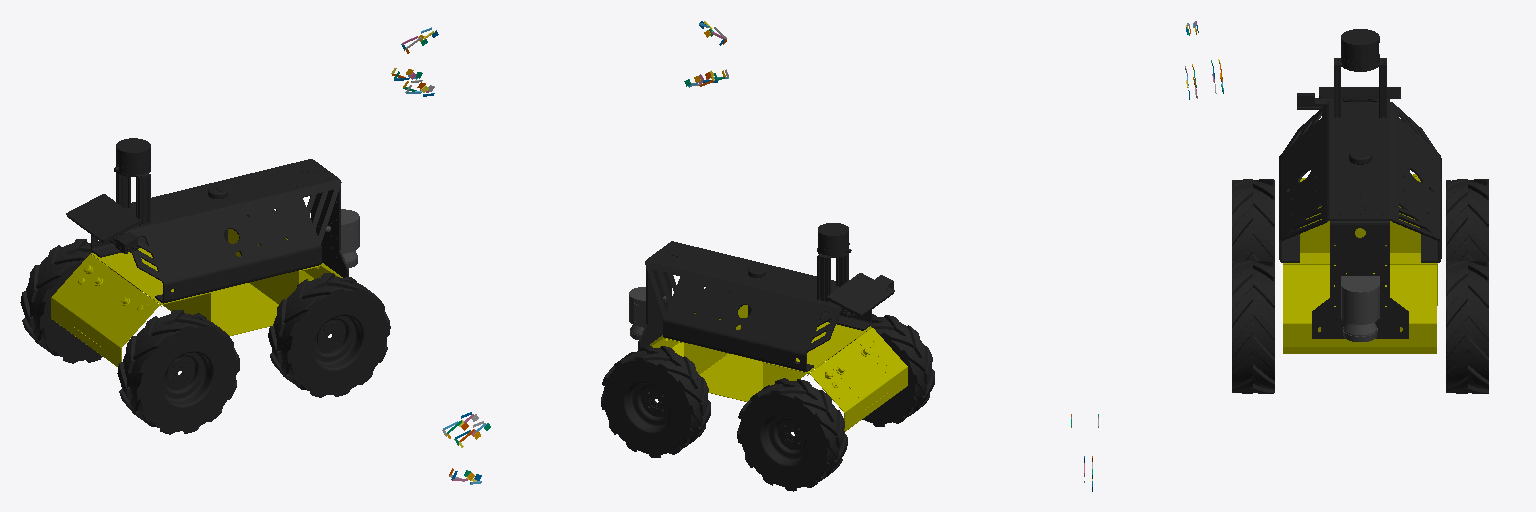
--- Render facts (derived) ---
3 views of the same robot in one strip: view 1: azimuth 30°, elevation 25°; view 2: azimuth 150°, elevation 25°; view 3: azimuth 270°, elevation 25° (orthographic).
Model dual_arm_husky with 128 links and 127 joints (92 revolute, 4 continuous, 31 fixed), rooted at base_link, posed every joint at zero.
Visible links, largest first — view 1: dual_arm_bulkhead_link, top_chassis_link, rear_right_wheel_link, front_right_wheel_link, rear_left_wheel_link, base_laser; view 2: dual_arm_bulkhead_link, top_chassis_link, rear_left_wheel_link, front_left_wheel_link, rear_right_wheel_link, base_laser; view 3: dual_arm_bulkhead_link, top_chassis_link, front_left_wheel_link, front_right_wheel_link, rear_left_wheel_link, rear_right_wheel_link, base_laser.
Link boxes in pixels (box(x1,y1,x2,y2)): dual_arm_bulkhead_link: box(66, 138, 348, 303); top_chassis_link: box(51, 229, 342, 366); rear_right_wheel_link: box(117, 310, 239, 434); front_right_wheel_link: box(268, 273, 390, 397); rear_left_wheel_link: box(20, 239, 140, 363); base_laser: box(325, 209, 359, 267); dual_arm_bulkhead_link: box(638, 223, 894, 371); top_chassis_link: box(650, 305, 907, 431); rear_left_wheel_link: box(737, 378, 847, 491); front_left_wheel_link: box(601, 345, 710, 457); rear_right_wheel_link: box(828, 314, 934, 426); base_laser: box(629, 287, 666, 339); dual_arm_bulkhead_link: box(1279, 29, 1441, 338); top_chassis_link: box(1283, 174, 1437, 353); front_left_wheel_link: box(1446, 260, 1488, 393); front_right_wheel_link: box(1232, 260, 1274, 393); rear_left_wheel_link: box(1446, 179, 1488, 261); rear_right_wheel_link: box(1232, 179, 1274, 261); base_laser: box(1341, 276, 1379, 341).
Size in the robot's own frame: 0.9608 by 1.11 by 1.37 metres.
Meshes: 21 distinct files referenced, 7 mesh visuals loaded (4 Collada DAE); not drawn: 48 (reference not matched to a file when rendering).

robot.urdf — dual_arm_husky:
<?xml version="1.0" ?>
<!-- =================================================================================== -->
<!-- |    This document was autogenerated by xacro from description.xacro              | -->
<!-- |    EDITING THIS FILE BY HAND IS NOT RECOMMENDED                                 | -->
<!-- =================================================================================== -->
<!--
Software License Agreement (BSD)

\file      description.urdf.xacro
\authors   Paul Bovbel <[email redacted]>, Devon Ash <[email redacted]>
\copyright Copyright (c) 2015, Clearpath Robotics, Inc., All rights reserved.

Redistribution and use in source and binary forms, with or without modification, are permitted provided that
the following conditions are met:
 * Redistributions of source code must retain the above copyright notice, this list of conditions and the
   following disclaimer.
 * Redistributions in binary form must reproduce the above copyright notice, this list of conditions and the
   following disclaimer in the documentation and/or other materials provided with the distribution.
 * Neither the name of Clearpath Robotics nor the names of its contributors may be used to endorse or promote
   products derived from this software without specific prior written permission.

THIS SOFTWARE IS PROVIDED BY THE COPYRIGHT HOLDERS AND CONTRIBUTORS "AS IS" AND ANY EXPRESS OR IMPLIED WAR-
RANTIES, INCLUDING, BUT NOT LIMITED TO, THE IMPLIED WARRANTIES OF MERCHANTABILITY AND FITNESS FOR A PARTICULAR
PURPOSE ARE DISCLAIMED. IN NO EVENT SHALL THE COPYRIGHT HOLDER OR CONTRIBUTORS BE LIABLE FOR ANY DIRECT, IN-
DIRECT, INCIDENTAL, SPECIAL, EXEMPLARY, OR CONSEQUENTIAL DAMAGES (INCLUDING, BUT NOT LIMITED TO, PROCUREMENT
OF SUBSTITUTE GOODS OR SERVICES; LOSS OF USE, DATA, OR PROFITS; OR BUSINESS INTERRUPTION) HOWEVER CAUSED AND
ON ANY THEORY OF LIABILITY, WHETHER IN CONTRACT, STRICT LIABILITY, OR TORT (INCLUDING NEGLIGENCE OR OTHERWISE)
ARISING IN ANY WAY OUT OF THE USE OF THIS SOFTWARE, EVEN IF ADVISED OF THE POSSIBILITY OF SUCH DAMAGE.
-->
<robot name="dual_arm_husky" xmlns:xacro="http://www.ros.org/wiki/xacro">
  <!-- Included URDF/XACRO Files -->
  <!-- Inertia parameters -->
  <!-- This mass might be incorrect -->
  <!-- Kinematic model -->
  <!-- Properties from urcontrol.conf -->
  <!--
    DH for UR5:
    a = [0.00000, -0.42500, -0.39225,  0.00000,  0.00000,  0.0000]
    d = [0.089159,  0.00000,  0.00000,  0.10915,  0.09465,  0.0823]
    alpha = [ 1.570796327, 0, 0, 1.570796327, -1.570796327, 0 ]
    q_home_offset = [0, -1.570796327, 0, -1.570796327, 0, 0]
    joint_direction = [-1, -1, 1, 1, 1, 1]
    mass = [3.7000, 8.3930, 2.2750, 1.2190, 1.2190, 0.1879]
    center_of_mass = [ [0, -0.02561, 0.00193], [0.2125, 0, 0.11336], [0.11993, 0.0, 0.0265], [0, -0.0018, 0.01634], [0, 0.0018,0.01634], [0, 0, -0.001159] ]
  -->
  <!-- Arbitrary offsets for shoulder/elbow joints -->
  <!-- measured from model -->
  <!-- measured from model -->
  <!-- link lengths used in model -->
  <!--property name="shoulder_height" value="0.089159" /-->
  <!--property name="shoulder_offset" value="0.13585" /-->
  <!-- shoulder_offset - elbow_offset + wrist_1_length = 0.10915 -->
  <!--property name="upper_arm_length" value="0.42500" /-->
  <!--property name="elbow_offset" value="0.1197" /-->
  <!-- CAD measured -->
  <!--property name="forearm_length" value="0.39225" /-->
  <!--property name="wrist_1_length" value="0.093" /-->
  <!-- CAD measured -->
  <!--property name="wrist_2_length" value="0.09465" /-->
  <!-- In CAD this distance is 0.930, but in the spec it is 0.09465 -->
  <!--property name="wrist_3_length" value="0.0823" /-->
  <!-- manually measured -->
  <!-- manually measured -->
  <!-- manually measured -->
  <!-- manually measured -->
  <!-- manually measured -->
  <!-- Base Size -->
  <!-- Wheel Mounting Positions -->
  <!-- Wheel Properties -->
  <!-- Base link is the center of the robot's bottom plate -->
  <link name="base_link">
    <visual>
      <origin rpy="0 0 0" xyz="0 0 0"/>
      <geometry>
        <mesh filename="package://dual_arm_husky_description/meshes/base_link.dae"/>
      </geometry>
      <material name="black"><color rgba="0 0 0 1" /></material>
    </visual>
    <collision>
      <origin rpy="0 0 0" xyz="0 0 0.061875"/>
      <geometry>
        <box size="0.9874 0.5709 0.12375"/>
      </geometry>
    </collision>
    <collision>
      <origin rpy="0 0 0" xyz="0 0 0.185625"/>
      <geometry>
        <box size="0.78992 0.5709 0.12375"/>
      </geometry>
    </collision>
  </link>
  <!-- Base footprint is on the ground under the robot -->
  <link name="base_footprint"/>
  <joint name="base_footprint_joint" type="fixed">
    <origin rpy="0 0 0" xyz="0 0 -0.14493"/>
    <parent link="base_link"/>
    <child link="base_footprint"/>
  </joint>
  <!-- Interial link stores the robot's inertial information -->
  <link name="inertial_link">
    <inertial>
      <mass value="33.455"/>
      <origin xyz="-0.08748 -0.00085 0.09947"/>
      <inertia ixx="0.6022" ixy="-0.02364" ixz="-0.1197" iyy="1.7386" iyz="-0.001544" izz="2.0296"/>
    </inertial>
  </link>
  <joint name="inertial_joint" type="fixed">
    <origin rpy="0 0 0" xyz="0 0 0"/>
    <parent link="base_link"/>
    <child link="inertial_link"/>
  </joint>
  <!-- IMU Link is the standard mounting position for the UM6 IMU.-->
  <!-- Can be modified with environment variables in /etc/ros/setup.bash -->
  <link name="imu_link"/>
  <joint name="imu_joint" type="fixed">
    <origin rpy="-1.5708 0 0" xyz="0.19 0 0.149"/>
    <parent link="base_link"/>
    <child link="imu_link"/>
  </joint>
  <gazebo reference="imu_link">
    </gazebo>
  <!-- Husky wheel macros -->
  <link name="front_left_wheel_link">
    <inertial>
      <mass value="2.637"/>
      <origin xyz="0 0 0"/>
      <inertia ixx="0.02467" ixy="0" ixz="0" iyy="0.02467" iyz="0" izz="0.04411"/>
    </inertial>
    <visual>
      <origin rpy="0 0 0" xyz="0 0 0"/>
      <geometry>
        <mesh filename="package://dual_arm_husky_description/meshes/wheel.dae"/>
      </geometry>
      <material name="Gazebo/DarkGrey"><color rgba=".175 .175 .175 1.0" /></material>
    </visual>
    <collision>
      <origin rpy="1.570795 0 0" xyz="0 0 0"/>
      <geometry>
        <cylinder length="0.1143" radius="0.17775"/>
      </geometry>
    </collision>
  </link>
  <gazebo reference="front_left_wheel_link">
    <mu1 value="1.0"/>
    <mu2 value="1.0"/>
    <kp value="10000000.0"/>
    <kd value="1.0"/>
    <fdir1 value="1 0 0"/>
  </gazebo>
  <joint name="front_left_wheel" type="continuous">
    <parent link="base_link"/>
    <child link="front_left_wheel_link"/>
    <origin rpy="0 0 0" xyz="0.256 0.2854 0.03282"/>
    <axis rpy="0 0 0" xyz="0 1 0"/>
  </joint>
  <transmission name="front_left_wheel_trans" type="SimpleTransmission">
    <type>transmission_interface/SimpleTransmission</type>
    <actuator name="front_left_wheel_motor">
      <mechanicalReduction>1</mechanicalReduction>
    </actuator>
    <joint name="front_left_wheel">
      <hardwareInterface>VelocityJointInterface</hardwareInterface>
    </joint>
  </transmission>
  <link name="front_right_wheel_link">
    <inertial>
      <mass value="2.637"/>
      <origin xyz="0 0 0"/>
      <inertia ixx="0.02467" ixy="0" ixz="0" iyy="0.02467" iyz="0" izz="0.04411"/>
    </inertial>
    <visual>
      <origin rpy="0 0 0" xyz="0 0 0"/>
      <geometry>
        <mesh filename="package://dual_arm_husky_description/meshes/wheel.dae"/>
      </geometry>
      <material name="Gazebo/DarkGrey"><color rgba=".175 .175 .175 1.0" /></material>
    </visual>
    <collision>
      <origin rpy="1.570795 0 0" xyz="0 0 0"/>
      <geometry>
        <cylinder length="0.1143" radius="0.17775"/>
      </geometry>
    </collision>
  </link>
  <gazebo reference="front_right_wheel_link">
    <mu1 value="1.0"/>
    <mu2 value="1.0"/>
    <kp value="10000000.0"/>
    <kd value="1.0"/>
    <fdir1 value="1 0 0"/>
  </gazebo>
  <joint name="front_right_wheel" type="continuous">
    <parent link="base_link"/>
    <child link="front_right_wheel_link"/>
    <origin rpy="0 0 0" xyz="0.256 -0.2854 0.03282"/>
    <axis rpy="0 0 0" xyz="0 1 0"/>
  </joint>
  <transmission name="front_right_wheel_trans" type="SimpleTransmission">
    <type>transmission_interface/SimpleTransmission</type>
    <actuator name="front_right_wheel_motor">
      <mechanicalReduction>1</mechanicalReduction>
    </actuator>
    <joint name="front_right_wheel">
      <hardwareInterface>VelocityJointInterface</hardwareInterface>
    </joint>
  </transmission>
  <link name="rear_left_wheel_link">
    <inertial>
      <mass value="2.637"/>
      <origin xyz="0 0 0"/>
      <inertia ixx="0.02467" ixy="0" ixz="0" iyy="0.02467" iyz="0" izz="0.04411"/>
    </inertial>
    <visual>
      <origin rpy="0 0 0" xyz="0 0 0"/>
      <geometry>
        <mesh filename="package://dual_arm_husky_description/meshes/wheel.dae"/>
      </geometry>
      <material name="Gazebo/DarkGrey"><color rgba=".175 .175 .175 1.0" /></material>
    </visual>
    <collision>
      <origin rpy="1.570795 0 0" xyz="0 0 0"/>
      <geometry>
        <cylinder length="0.1143" radius="0.17775"/>
      </geometry>
    </collision>
  </link>
  <gazebo reference="rear_left_wheel_link">
    <mu1 value="1.0"/>
    <mu2 value="1.0"/>
    <kp value="10000000.0"/>
    <kd value="1.0"/>
    <fdir1 value="1 0 0"/>
  </gazebo>
  <joint name="rear_left_wheel" type="continuous">
    <parent link="base_link"/>
    <child link="rear_left_wheel_link"/>
    <origin rpy="0 0 0" xyz="-0.256 0.2854 0.03282"/>
    <axis rpy="0 0 0" xyz="0 1 0"/>
  </joint>
  <transmission name="rear_left_wheel_trans" type="SimpleTransmission">
    <type>transmission_interface/SimpleTransmission</type>
    <actuator name="rear_left_wheel_motor">
      <mechanicalReduction>1</mechanicalReduction>
    </actuator>
    <joint name="rear_left_wheel">
      <hardwareInterface>VelocityJointInterface</hardwareInterface>
    </joint>
  </transmission>
  <link name="rear_right_wheel_link">
    <inertial>
      <mass value="2.637"/>
      <origin xyz="0 0 0"/>
      <inertia ixx="0.02467" ixy="0" ixz="0" iyy="0.02467" iyz="0" izz="0.04411"/>
    </inertial>
    <visual>
      <origin rpy="0 0 0" xyz="0 0 0"/>
      <geometry>
        <mesh filename="package://dual_arm_husky_description/meshes/wheel.dae"/>
      </geometry>
      <material name="Gazebo/DarkGrey"><color rgba=".175 .175 .175 1.0" /></material>
    </visual>
    <collision>
      <origin rpy="1.570795 0 0" xyz="0 0 0"/>
      <geometry>
        <cylinder length="0.1143" radius="0.17775"/>
      </geometry>
    </collision>
  </link>
  <gazebo reference="rear_right_wheel_link">
    <mu1 value="1.0"/>
    <mu2 value="1.0"/>
    <kp value="10000000.0"/>
    <kd value="1.0"/>
    <fdir1 value="1 0 0"/>
  </gazebo>
  <joint name="rear_right_wheel" type="continuous">
    <parent link="base_link"/>
    <child link="rear_right_wheel_link"/>
    <origin rpy="0 0 0" xyz="-0.256 -0.2854 0.03282"/>
    <axis rpy="0 0 0" xyz="0 1 0"/>
  </joint>
  <transmission name="rear_right_wheel_trans" type="SimpleTransmission">
    <type>transmission_interface/SimpleTransmission</type>
    <actuator name="rear_right_wheel_motor">
      <mechanicalReduction>1</mechanicalReduction>
    </actuator>
    <joint name="rear_right_wheel">
      <hardwareInterface>VelocityJointInterface</hardwareInterface>
    </joint>
  </transmission>
  <!-- Spawn Husky chassis -->
  <link name="top_chassis_link">
    <visual>
      <origin rpy="0 0 0" xyz="0 0 0"/>
      <geometry>
        <mesh filename="package://dual_arm_husky_description/meshes/top_chassis.dae"/>
      </geometry>
      <material name="Gazebo/DarkYellow"><color rgba=".7 .7 0 1" /></material>
    </visual>
  </link>
  <!-- Attach chassis to the robot -->
  <joint name="top_chassis_joint" type="fixed">
    <parent link="base_link"/>
    <child link="top_chassis_link"/>
  </joint>
  <!-- Spawn front bumper link -->
  <link name="front_bumper_link">
    <visual>
      <geometry>
        <mesh filename="package://dual_arm_husky_description/meshes/bumper.dae"/>
      </geometry>
      <material name="black"><color rgba="0 0 0 1" /></material>
    </visual>
  </link>
  <!-- Attach front bumper -->
  <joint name="front_bumper" type="fixed">
    <origin rpy="0 0 0" xyz="0.48 0 0.091"/>
    <parent link="base_link"/>
    <child link="front_bumper_link"/>
  </joint>
  <!-- Spawn rear bumper link -->
  <link name="rear_bumper_link">
    <visual>
      <geometry>
        <mesh filename="package://dual_arm_husky_description/meshes/bumper.dae"/>
      </geometry>
      <material name="black"><color rgba="0 0 0 1" /></material>
    </visual>
  </link>
  <!-- Attach rear bumper -->
  <joint name="rear_bumper" type="fixed">
    <origin rpy="0 0 3.14159" xyz="-0.48 0 0.091"/>
    <parent link="base_link"/>
    <child link="rear_bumper_link"/>
  </joint>
  <!-- Spawn the bulkhead -->
  <link name="dual_arm_bulkhead_link">
    <visual>
      <origin rpy="0 0 0" xyz="0 0 0"/>
      <geometry>
        <mesh filename="package://dual_arm_husky_description/meshes/dual_arm_bulkhead.dae"/>
      </geometry>
      <material name="Gazebo/DarkGrey"><color rgba=".175 .175 .175 1.0" /></material>
    </visual>
    <collision>
      <origin rpy="0 0 0" xyz="0 0 0"/>
      <geometry>
        <mesh filename="package://dual_arm_husky_description/meshes/dual_arm_bulkhead_simple_mesh.dae"/>
      </geometry>
    </collision>
  </link>
  <!-- Attach bulkhead -->
  <joint name="dual_arm_bulkhead_joint" type="fixed">
    <parent link="base_link"/>
    <child link="dual_arm_bulkhead_link"/>
    <origin rpy="0 0 0" xyz="0 0 0.225"/>
  </joint>
  <link name="husky_ptu_pan_link">
    <inertial>
      <mass value="0.65"/>
      <origin rpy="0 0 0" xyz="0 0 0"/>
      <inertia ixx="0.0001" ixy="0" ixz="0" iyy="0.0001" iyz="0" izz="0.0001"/>
    </inertial>
    <visual>
      <material name="ptu_body_color">
        <color rgba="0.3 0.3 0.3 1.0"/>
      </material>
      <origin rpy="3.14 0 0" xyz="-0.0295 0.011 0"/>
      <geometry>
        <mesh filename="package://dual_arm_husky_description/meshes/flir-ptu-simple.stl"/>
      </geometry>
    </visual>
    <collision>
      <geometry>
        <box size="0.045 0.065 0.044"/>
      </geometry>
      <origin xyz="0 0.011 0"/>
    </collision>
    <collision>
      <geometry>
        <box size="0.046 0.044 0.044"/>
      </geometry>
      <origin xyz="-0.045 0.0215 0"/>
    </collision>
    <collision>
      <geometry>
        <cylinder length="0.015" radius="0.005"/>
      </geometry>
      <origin rpy="0 1.57 0" xyz="-0.074 0.021 0"/>
    </collision>
  </link>
  <gazebo reference="husky_ptu_pan_link">
    <material>Gazebo/DarkGrey</material>
  </gazebo>
  <link name="husky_ptu_tilt_link">
    <inertial>
      <mass value="0.65"/>
      <origin rpy="0 0 0" xyz="0 0 0"/>
      <inertia ixx="0.0001" ixy="0" ixz="0" iyy="0.0001" iyz="0" izz="0.0001"/>
    </inertial>
    <visual>
      <material name="ptu_body_color">
        <color rgba="0.3 0.3 0.3 1.0"/>
      </material>
      <origin rpy="3.14 0 0" xyz="-0.0295 0.011 0"/>
      <geometry>
        <mesh filename="package://dual_arm_husky_description/meshes/flir-ptu-simple.stl"/>
      </geometry>
    </visual>
    <collision>
      <geometry>
        <box size="0.045 0.065 0.044"/>
      </geometry>
      <origin xyz="0 0.011 0"/>
    </collision>
    <collision>
      <geometry>
        <box size="0.046 0.044 0.044"/>
      </geometry>
      <origin xyz="-0.045 0.0215 0"/>
    </collision>
    <collision>
      <geometry>
        <cylinder length="0.015" radius="0.005"/>
      </geometry>
      <origin rpy="0 1.57 0" xyz="-0.074 0.021 0"/>
    </collision>
  </link>
  <gazebo reference="husky_ptu_tilt_link">
    <material>Gazebo/DarkGrey</material>
  </gazebo>
  <link name="husky_ptu_base_link">
    <inertial>
      <mass value="2e-06"/>
      <inertia ixx="1.1e-09" ixy="0" ixz="0" iyy="1.1e-09" iyz="0" izz="1.1e-09"/>
    </inertial>
  </link>
  <link name="husky_ptu_tilted_link"/>
  <link name="husky_ptu_mount_link">
    <inertial>
      <mass value="2e-06"/>
      <inertia ixx="1.1e-09" ixy="0" ixz="0" iyy="1.1e-09" iyz="0" izz="1.1e-09"/>
    </inertial>
  </link>
  <!-- There's an offset between the origin of the pan joint and the origin of 
         the overall device, which is between the mounting screws on its base. -->
  <joint name="husky_ptu_base" type="fixed">
    <parent link="husky_ptu_base_link"/>
    <child link="husky_ptu_pan_link"/>
    <origin xyz="0 -0.011 0.022"/>
  </joint>
  <!-- The pan joint -->
  <joint name="husky_ptu_pan" type="revolute">
    <parent link="husky_ptu_pan_link"/>
    <origin rpy="-1.5708 0 0" xyz="0 0 0.066"/>
    <child link="husky_ptu_tilt_link"/>
    <axis rpy="3.14159 0 0" xyz="0 -1 0"/>
    <limit effort="30" lower="-2.775" upper="2.775" velocity="1.0"/>
  </joint>
  <transmission name="husky_ptu_pan_trans">
    <type>transmission_interface/SimpleTransmission</type>
    <joint name="husky_ptu_pan">
      <hardwareInterface>PositionJointInterface</hardwareInterface>
    </joint>
    <actuator name="husky_ptu_pan_motor">
      <mechanicalReduction>1</mechanicalReduction>
    </actuator>
  </transmission>
  <!-- The tilt joint -->
  <joint name="husky_ptu_tilt" type="revolute">
    <parent link="husky_ptu_tilt_link"/>
    <origin rpy="-1.5708 0 0" xyz="0 0 0"/>
    <child link="husky_ptu_tilted_link"/>
    <axis xyz="0 1 0"/>
    <limit effort="30" lower="-0.82" upper="0.52" velocity="1.0"/>
  </joint>
  <transmission name="husky_ptu_tilt_trans">
    <type>transmission_interface/SimpleTransmission</type>
    <joint name="husky_ptu_tilt">
      <hardwareInterface>PositionJointInterface</hardwareInterface>
    </joint>
    <actuator name="husky_ptu_tilt_motor">
      <mechanicalReduction>1</mechanicalReduction>
    </actuator>
  </transmission>
  <!-- Fixed joint to provide a convenient attachment point for accessories. -->
  <joint name="husky_ptu_mount" type="fixed">
    <parent link="husky_ptu_tilted_link"/>
    <child link="husky_ptu_mount_link"/>
    <origin rpy="3.1416 0 0" xyz="0 0 -0.03912"/>
  </joint>
  <!-- Connect PTU to Husky bulkhead -->
  <joint name="husky_ptu_joint" type="fixed">
    <origin rpy="0 0 0" xyz="0.345 0.010414 0.19876"/>
    <parent link="dual_arm_bulkhead_link"/>
    <child link="husky_ptu_base_link"/>
  </joint>
  <link name="l_ur5_arm_base_link">
    <visual>
      <geometry>
        <mesh filename="package://ur_description/meshes/ur5/visual/base.dae"/>
      </geometry>
      <material name="LightGrey">
        <color rgba="0.7 0.7 0.7 1.0"/>
      </material>
    </visual>
    <collision>
      <geometry>
        <mesh filename="package://ur_description/meshes/ur5/collision/base.stl"/>
      </geometry>
    </collision>
    <inertial>
      <mass value="4.0"/>
      <origin rpy="0 0 0" xyz="0.0 0.0 0.0"/>
      <inertia ixx="0.00443333156" ixy="0.0" ixz="0.0" iyy="0.00443333156" iyz="0.0" izz="0.0072"/>
    </inertial>
  </link>
  <joint name="l_ur5_arm_shoulder_pan_joint" type="revolute">
    <parent link="l_ur5_arm_base_link"/>
    <child link="l_ur5_arm_shoulder_link"/>
    <origin rpy="0.0 0.0 0.0" xyz="0.0 0.0 0.089159"/>
    <axis xyz="0 0 1"/>
    <limit effort="150.0" lower="-3.14159265" upper="3.14159265" velocity="3.15"/>
    <dynamics damping="0.0" friction="0.0"/>
  </joint>
  <link name="l_ur5_arm_shoulder_link">
    <visual>
      <geometry>
        <mesh filename="package://ur_description/meshes/ur5/visual/shoulder.dae"/>
      </geometry>
      <material name="Gazebo/DarkGrey"><color rgba=".175 .175 .175 1.0" /></material>
    </visual>
    <collision>
      <geometry>
        <mesh filename="package://ur_description/meshes/ur5/collision/shoulder.stl"/>
      </geometry>
    </collision>
    <inertial>
      <mass value="3.7"/>
      <origin rpy="0 0 0" xyz="0.0 0.0 0.0"/>
      <inertia ixx="0.010267495893" ixy="0.0" ixz="0.0" iyy="0.010267495893" iyz="0.0" izz="0.00666"/>
    </inertial>
  </link>
  <joint name="l_ur5_arm_shoulder_lift_joint" type="revolute">
    <parent link="l_ur5_arm_shoulder_link"/>
    <child link="l_ur5_arm_upper_arm_link"/>
    <origin rpy="0.0 1.570796325 0.0" xyz="0.0 0.13585 0.0"/>
    <axis xyz="0 1 0"/>
    <limit effort="150.0" lower="-3.14159265" upper="3.14159265" velocity="3.15"/>
    <dynamics damping="0.0" friction="0.0"/>
  </joint>
  <link name="l_ur5_arm_upper_arm_link">
    <visual>
      <geometry>
        <mesh filename="package://ur_description/meshes/ur5/visual/upperarm.dae"/>
      </geometry>
      <material name="LightGrey">
        <color rgba="0.7 0.7 0.7 1.0"/>
      </material>
    </visual>
    <collision>
      <geometry>
        <mesh filename="package://ur_description/meshes/ur5/collision/upperarm.stl"/>
      </geometry>
    </collision>
    <inertial>
      <mass value="8.393"/>
      <origin rpy="0 0 0" xyz="0.0 0.0 0.28"/>
      <inertia ixx="0.22689067591" ixy="0.0" ixz="0.0" iyy="0.22689067591" iyz="0.0" izz="0.0151074"/>
    </inertial>
  </link>
  <joint name="l_ur5_arm_elbow_joint" type="revolute">
    <parent link="l_ur5_arm_upper_arm_link"/>
    <child link="l_ur5_arm_forearm_link"/>
    <origin rpy="0.0 0.0 0.0" xyz="0.0 -0.1197 0.425"/>
    <axis xyz="0 1 0"/>
    <limit effort="150.0" lower="-3.14159265" upper="3.14159265" velocity="3.15"/>
    <dynamics damping="0.0" friction="0.0"/>
  </joint>
  <link name="l_ur5_arm_forearm_link">
    <visual>
      <geometry>
        <mesh filename="package://ur_description/meshes/ur5/visual/forearm.dae"/>
      </geometry>
      <material name="LightGrey">
        <color rgba="0.7 0.7 0.7 1.0"/>
      </material>
    </visual>
    <collision>
      <geometry>
        <mesh filename="package://ur_description/meshes/ur5/collision/forearm.stl"/>
      </geometry>
    </collision>
    <inertial>
      <mass value="2.275"/>
      <origin rpy="0 0 0" xyz="0.0 0.0 0.25"/>
      <inertia ixx="0.049443313556" ixy="0.0" ixz="0.0" iyy="0.049443313556" iyz="0.0" izz="0.004095"/>
    </inertial>
  </link>
  <joint name="l_ur5_arm_wrist_1_joint" type="revolute">
    <parent link="l_ur5_arm_forearm_link"/>
    <child link="l_ur5_arm_wrist_1_link"/>
    <origin rpy="0.0 1.570796325 0.0" xyz="0.0 0.0 0.39225"/>
    <axis xyz="0 1 0"/>
    <limit effort="28.0" lower="-3.14159265" upper="3.14159265" velocity="3.2"/>
    <dynamics damping="0.0" friction="0.0"/>
  </joint>
  <link name="l_ur5_arm_wrist_1_link">
    <visual>
      <geometry>
        <mesh filename="package://ur_description/meshes/ur5/visual/wrist1.dae"/>
      </geometry>
      <material name="Gazebo/DarkGrey"><color rgba=".175 .175 .175 1.0" /></material>
    </visual>
    <collision>
      <geometry>
        <mesh filename="package://ur_description/meshes/ur5/collision/wrist1.stl"/>
      </geometry>
    </collision>
    <inertial>
      <mass value="1.219"/>
      <origin rpy="0 0 0" xyz="0.0 0.0 0.0"/>
      <inertia ixx="0.111172755531" ixy="0.0" ixz="0.0" iyy="0.111172755531" iyz="0.0" izz="0.21942"/>
    </inertial>
  </link>
  <joint name="l_ur5_arm_wrist_2_joint" type="revolute">
    <parent link="l_ur5_arm_wrist_1_link"/>
    <child link="l_ur5_arm_wrist_2_link"/>
    <origin rpy="0.0 0.0 0.0" xyz="0.0 0.093 0.0"/>
    <axis xyz="0 0 1"/>
    <limit effort="28.0" lower="-3.14159265" upper="3.14159265" velocity="3.2"/>
    <dynamics damping="0.0" friction="0.0"/>
  </joint>
  <link name="l_ur5_arm_wrist_2_link">
    <visual>
      <geometry>
        <mesh filename="package://ur_description/meshes/ur5/visual/wrist2.dae"/>
      </geometry>
      <material name="Gazebo/DarkGrey"><color rgba=".175 .175 .175 1.0" /></material>
    </visual>
    <collision>
      <geometry>
        <mesh filename="package://ur_description/meshes/ur5/collision/wrist2.stl"/>
      </geometry>
    </collision>
    <inertial>
      <mass value="1.219"/>
      <origin rpy="0 0 0" xyz="0.0 0.0 0.0"/>
      <inertia ixx="0.111172755531" ixy="0.0" ixz="0.0" iyy="0.111172755531" iyz="0.0" izz="0.21942"/>
    </inertial>
  </link>
  <joint name="l_ur5_arm_wrist_3_joint" type="revolute">
    <parent link="l_ur5_arm_wrist_2_link"/>
    <child link="l_ur5_arm_wrist_3_link"/>
    <origin rpy="0.0 0.0 0.0" xyz="0.0 0.0 0.09465"/>
    <axis xyz="0 1 0"/>
    <limit effort="28.0" lower="-3.14159265" upper="3.14159265" velocity="3.2"/>
    <dynamics damping="0.0" friction="0.0"/>
  </joint>
  <link name="l_ur5_arm_wrist_3_link">
    <visual>
      <geometry>
        <mesh filename="package://ur_description/meshes/ur5/visual/wrist3.dae"/>
      </geometry>
      <material name="black"><color rgba="0 0 0 1" /></material>
    </visual>
    <collision>
      <geometry>
        <mesh filename="package://ur_description/meshes/ur5/collision/wrist3.stl"/>
      </geometry>
    </collision>
    <inertial>
      <mass value="0.1879"/>
      <origin rpy="0 0 0" xyz="0.0 0.0 0.0"/>
      <inertia ixx="0.0171364731454" ixy="0.0" ixz="0.0" iyy="0.0171364731454" iyz="0.0" izz="0.033822"/>
    </inertial>
  </link>
  <joint name="l_ur5_arm_ee_fixed_joint" type="fixed">
    <parent link="l_ur5_arm_wrist_3_link"/>
    <child link="l_ur5_arm_ee_link"/>
    <origin rpy="0.0 0.0 1.570796325" xyz="0.0 0.0823 0.0"/>
  </joint>
  <link name="l_ur5_arm_ee_link">
    <collision>
      <geometry>
        <box size="0.01 0.01 0.01"/>
      </geometry>
      <origin rpy="0 0 0" xyz="-0.01 0 0"/>
    </collision>
  </link>
  <transmission name="l_ur5_arm_shoulder_pan_trans">
    <type>transmission_interface/SimpleTransmission</type>
    <joint name="l_ur5_arm_shoulder_pan_joint">
      <hardwareInterface>PositionJointInterface</hardwareInterface>
    </joint>
    <actuator name="l_ur5_arm_shoulder_pan_motor">
      <mechanicalReduction>1</mechanicalReduction>
    </actuator>
  </transmission>
  <transmission name="l_ur5_arm_shoulder_lift_trans">
    <type>transmission_interface/SimpleTransmission</type>
    <joint name="l_ur5_arm_shoulder_lift_joint">
      <hardwareInterface>PositionJointInterface</hardwareInterface>
    </joint>
    <actuator name="l_ur5_arm_shoulder_lift_motor">
      <mechanicalReduction>1</mechanicalReduction>
    </actuator>
  </transmission>
  <transmission name="l_ur5_arm_elbow_trans">
    <type>transmission_interface/SimpleTransmission</type>
    <joint name="l_ur5_arm_elbow_joint">
      <hardwareInterface>PositionJointInterface</hardwareInterface>
    </joint>
    <actuator name="l_ur5_arm_elbow_motor">
      <mechanicalReduction>1</mechanicalReduction>
    </actuator>
  </transmission>
  <transmission name="l_ur5_arm_wrist_1_trans">
    <type>transmission_interface/SimpleTransmission</type>
    <joint name="l_ur5_arm_wrist_1_joint">
      <hardwareInterface>PositionJointInterface</hardwareInterface>
    </joint>
    <actuator name="l_ur5_arm_wrist_1_motor">
      <mechanicalReduction>1</mechanicalReduction>
    </actuator>
  </transmission>
  <transmission name="l_ur5_arm_wrist_2_trans">
    <type>transmission_interface/SimpleTransmission</type>
    <joint name="l_ur5_arm_wrist_2_joint">
      <hardwareInterface>PositionJointInterface</hardwareInterface>
    </joint>
    <actuator name="l_ur5_arm_wrist_2_motor">
      <mechanicalReduction>1</mechanicalReduction>
    </actuator>
  </transmission>
  <transmission name="l_ur5_arm_wrist_3_trans">
    <type>transmission_interface/SimpleTransmission</type>
    <joint name="l_ur5_arm_wrist_3_joint">
      <hardwareInterface>PositionJointInterface</hardwareInterface>
    </joint>
    <actuator name="l_ur5_arm_wrist_3_motor">
      <mechanicalReduction>1</mechanicalReduction>
    </actuator>
  </transmission>
  <!-- nothing to do here at the moment -->
  <!-- ROS base_link to UR 'Base' Coordinates transform -->
  <link name="l_ur5_arm_base"/>
  <joint name="l_ur5_arm_base_link-base_fixed_joint" type="fixed">
    <!-- NOTE: this rotation is only needed as long as base_link itself is
                 not corrected wrt the real robot (ie: rotated over 180
                 degrees)
      -->
    <origin rpy="0 0 -3.14159265" xyz="0 0 0"/>
    <parent link="l_ur5_arm_base_link"/>
    <child link="l_ur5_arm_base"/>
  </joint>
  <!-- Frame coincident with all-zeros TCP on UR controller -->
  <link name="l_ur5_arm_tool0"/>
  <joint name="l_ur5_arm_wrist_3_link-tool0_fixed_joint" type="fixed">
    <origin rpy="-1.570796325 0 0" xyz="0 0.0823 0"/>
    <parent link="l_ur5_arm_wrist_3_link"/>
    <child link="l_ur5_arm_tool0"/>
  </joint>
  <link name="r_ur5_arm_base_link">
    <visual>
      <geometry>
        <mesh filename="package://ur_description/meshes/ur5/visual/base.dae"/>
      </geometry>
      <material name="LightGrey">
        <color rgba="0.7 0.7 0.7 1.0"/>
      </material>
    </visual>
    <collision>
      <geometry>
        <mesh filename="package://ur_description/meshes/ur5/collision/base.stl"/>
      </geometry>
    </collision>
    <inertial>
      <mass value="4.0"/>
      <origin rpy="0 0 0" xyz="0.0 0.0 0.0"/>
      <inertia ixx="0.00443333156" ixy="0.0" ixz="0.0" iyy="0.00443333156" iyz="0.0" izz="0.0072"/>
    </inertial>
  </link>
  <joint name="r_ur5_arm_shoulder_pan_joint" type="revolute">
    <parent link="r_ur5_arm_base_link"/>
    <child link="r_ur5_arm_shoulder_link"/>
    <origin rpy="0.0 0.0 0.0" xyz="0.0 0.0 0.089159"/>
    <axis xyz="0 0 1"/>
    <limit effort="150.0" lower="-3.14159265" upper="3.14159265" velocity="3.15"/>
    <dynamics damping="0.0" friction="0.0"/>
  </joint>
  <link name="r_ur5_arm_shoulder_link">
    <visual>
      <geometry>
        <mesh filename="package://ur_description/meshes/ur5/visual/shoulder.dae"/>
      </geometry>
      <material name="Gazebo/DarkGrey"><color rgba=".175 .175 .175 1.0" /></material>
    </visual>
    <collision>
      <geometry>
        <mesh filename="package://ur_description/meshes/ur5/collision/shoulder.stl"/>
      </geometry>
    </collision>
    <inertial>
      <mass value="3.7"/>
      <origin rpy="0 0 0" xyz="0.0 0.0 0.0"/>
      <inertia ixx="0.010267495893" ixy="0.0" ixz="0.0" iyy="0.010267495893" iyz="0.0" izz="0.00666"/>
    </inertial>
  </link>
  <joint name="r_ur5_arm_shoulder_lift_joint" type="revolute">
    <parent link="r_ur5_arm_shoulder_link"/>
    <child link="r_ur5_arm_upper_arm_link"/>
    <origin rpy="0.0 1.570796325 0.0" xyz="0.0 0.13585 0.0"/>
    <axis xyz="0 1 0"/>
    <limit effort="150.0" lower="-3.14159265" upper="3.14159265" velocity="3.15"/>
    <dynamics damping="0.0" friction="0.0"/>
  </joint>
  <link name="r_ur5_arm_upper_arm_link">
    <visual>
      <geometry>
        <mesh filename="package://ur_description/meshes/ur5/visual/upperarm.dae"/>
      </geometry>
      <material name="LightGrey">
        <color rgba="0.7 0.7 0.7 1.0"/>
      </material>
    </visual>
    <collision>
      <geometry>
        <mesh filename="package://ur_description/meshes/ur5/collision/upperarm.stl"/>
      </geometry>
    </collision>
    <inertial>
      <mass value="8.393"/>
      <origin rpy="0 0 0" xyz="0.0 0.0 0.28"/>
      <inertia ixx="0.22689067591" ixy="0.0" ixz="0.0" iyy="0.22689067591" iyz="0.0" izz="0.0151074"/>
    </inertial>
  </link>
  <joint name="r_ur5_arm_elbow_joint" type="revolute">
    <parent link="r_ur5_arm_upper_arm_link"/>
    <child link="r_ur5_arm_forearm_link"/>
    <origin rpy="0.0 0.0 0.0" xyz="0.0 -0.1197 0.425"/>
    <axis xyz="0 1 0"/>
    <limit effort="150.0" lower="-3.14159265" upper="3.14159265" velocity="3.15"/>
    <dynamics damping="0.0" friction="0.0"/>
  </joint>
  <link name="r_ur5_arm_forearm_link">
    <visual>
      <geometry>
        <mesh filename="package://ur_description/meshes/ur5/visual/forearm.dae"/>
      </geometry>
      <material name="LightGrey">
        <color rgba="0.7 0.7 0.7 1.0"/>
      </material>
    </visual>
    <collision>
      <geometry>
        <mesh filename="package://ur_description/meshes/ur5/collision/forearm.stl"/>
      </geometry>
    </collision>
    <inertial>
      <mass value="2.275"/>
      <origin rpy="0 0 0" xyz="0.0 0.0 0.25"/>
      <inertia ixx="0.049443313556" ixy="0.0" ixz="0.0" iyy="0.049443313556" iyz="0.0" izz="0.004095"/>
    </inertial>
  </link>
  <joint name="r_ur5_arm_wrist_1_joint" type="revolute">
    <parent link="r_ur5_arm_forearm_link"/>
    <child link="r_ur5_arm_wrist_1_link"/>
    <origin rpy="0.0 1.570796325 0.0" xyz="0.0 0.0 0.39225"/>
    <axis xyz="0 1 0"/>
    <limit effort="28.0" lower="-3.14159265" upper="3.14159265" velocity="3.2"/>
    <dynamics damping="0.0" friction="0.0"/>
  </joint>
  <link name="r_ur5_arm_wrist_1_link">
    <visual>
      <geometry>
        <mesh filename="package://ur_description/meshes/ur5/visual/wrist1.dae"/>
      </geometry>
      <material name="Gazebo/DarkGrey"><color rgba=".175 .175 .175 1.0" /></material>
    </visual>
    <collision>
      <geometry>
        <mesh filename="package://ur_description/meshes/ur5/collision/wrist1.stl"/>
      </geometry>
    </collision>
    <inertial>
      <mass value="1.219"/>
      <origin rpy="0 0 0" xyz="0.0 0.0 0.0"/>
      <inertia ixx="0.111172755531" ixy="0.0" ixz="0.0" iyy="0.111172755531" iyz="0.0" izz="0.21942"/>
    </inertial>
  </link>
  <joint name="r_ur5_arm_wrist_2_joint" type="revolute">
    <parent link="r_ur5_arm_wrist_1_link"/>
    <child link="r_ur5_arm_wrist_2_link"/>
    <origin rpy="0.0 0.0 0.0" xyz="0.0 0.093 0.0"/>
    <axis xyz="0 0 1"/>
    <limit effort="28.0" lower="-3.14159265" upper="3.14159265" velocity="3.2"/>
    <dynamics damping="0.0" friction="0.0"/>
  </joint>
  <link name="r_ur5_arm_wrist_2_link">
    <visual>
      <geometry>
        <mesh filename="package://ur_description/meshes/ur5/visual/wrist2.dae"/>
      </geometry>
      <material name="Gazebo/DarkGrey"><color rgba=".175 .175 .175 1.0" /></material>
    </visual>
    <collision>
      <geometry>
        <mesh filename="package://ur_description/meshes/ur5/collision/wrist2.stl"/>
      </geometry>
    </collision>
    <inertial>
      <mass value="1.219"/>
      <origin rpy="0 0 0" xyz="0.0 0.0 0.0"/>
      <inertia ixx="0.111172755531" ixy="0.0" ixz="0.0" iyy="0.111172755531" iyz="0.0" izz="0.21942"/>
    </inertial>
  </link>
  <joint name="r_ur5_arm_wrist_3_joint" type="revolute">
    <parent link="r_ur5_arm_wrist_2_link"/>
    <child link="r_ur5_arm_wrist_3_link"/>
    <origin rpy="0.0 0.0 0.0" xyz="0.0 0.0 0.09465"/>
    <axis xyz="0 1 0"/>
    <limit effort="28.0" lower="-3.14159265" upper="3.14159265" velocity="3.2"/>
    <dynamics damping="0.0" friction="0.0"/>
  </joint>
  <link name="r_ur5_arm_wrist_3_link">
    <visual>
      <geometry>
        <mesh filename="package://ur_description/meshes/ur5/visual/wrist3.dae"/>
      </geometry>
      <material name="black"><color rgba="0 0 0 1" /></material>
    </visual>
    <collision>
      <geometry>
        <mesh filename="package://ur_description/meshes/ur5/collision/wrist3.stl"/>
      </geometry>
    </collision>
    <inertial>
      <mass value="0.1879"/>
      <origin rpy="0 0 0" xyz="0.0 0.0 0.0"/>
      <inertia ixx="0.0171364731454" ixy="0.0" ixz="0.0" iyy="0.0171364731454" iyz="0.0" izz="0.033822"/>
    </inertial>
  </link>
  <joint name="r_ur5_arm_ee_fixed_joint" type="fixed">
    <parent link="r_ur5_arm_wrist_3_link"/>
    <child link="r_ur5_arm_ee_link"/>
    <origin rpy="0.0 0.0 1.570796325" xyz="0.0 0.0823 0.0"/>
  </joint>
  <link name="r_ur5_arm_ee_link">
    <collision>
      <geometry>
        <box size="0.01 0.01 0.01"/>
      </geometry>
      <origin rpy="0 0 0" xyz="-0.01 0 0"/>
    </collision>
  </link>
  <transmission name="r_ur5_arm_shoulder_pan_trans">
    <type>transmission_interface/SimpleTransmission</type>
    <joint name="r_ur5_arm_shoulder_pan_joint">
      <hardwareInterface>PositionJointInterface</hardwareInterface>
    </joint>
    <actuator name="r_ur5_arm_shoulder_pan_motor">
      <mechanicalReduction>1</mechanicalReduction>
    </actuator>
  </transmission>
  <transmission name="r_ur5_arm_shoulder_lift_trans">
    <type>transmission_interface/SimpleTransmission</type>
    <joint name="r_ur5_arm_shoulder_lift_joint">
      <hardwareInterface>PositionJointInterface</hardwareInterface>
    </joint>
    <actuator name="r_ur5_arm_shoulder_lift_motor">
      <mechanicalReduction>1</mechanicalReduction>
    </actuator>
  </transmission>
  <transmission name="r_ur5_arm_elbow_trans">
    <type>transmission_interface/SimpleTransmission</type>
    <joint name="r_ur5_arm_elbow_joint">
      <hardwareInterface>PositionJointInterface</hardwareInterface>
    </joint>
    <actuator name="r_ur5_arm_elbow_motor">
      <mechanicalReduction>1</mechanicalReduction>
    </actuator>
  </transmission>
  <transmission name="r_ur5_arm_wrist_1_trans">
    <type>transmission_interface/SimpleTransmission</type>
    <joint name="r_ur5_arm_wrist_1_joint">
      <hardwareInterface>PositionJointInterface</hardwareInterface>
    </joint>
    <actuator name="r_ur5_arm_wrist_1_motor">
      <mechanicalReduction>1</mechanicalReduction>
    </actuator>
  </transmission>
  <transmission name="r_ur5_arm_wrist_2_trans">
    <type>transmission_interface/SimpleTransmission</type>
    <joint name="r_ur5_arm_wrist_2_joint">
      <hardwareInterface>PositionJointInterface</hardwareInterface>
    </joint>
    <actuator name="r_ur5_arm_wrist_2_motor">
      <mechanicalReduction>1</mechanicalReduction>
    </actuator>
  </transmission>
  <transmission name="r_ur5_arm_wrist_3_trans">
    <type>transmission_interface/SimpleTransmission</type>
    <joint name="r_ur5_arm_wrist_3_joint">
      <hardwareInterface>PositionJointInterface</hardwareInterface>
    </joint>
    <actuator name="r_ur5_arm_wrist_3_motor">
      <mechanicalReduction>1</mechanicalReduction>
    </actuator>
  </transmission>
  <!-- nothing to do here at the moment -->
  <!-- ROS base_link to UR 'Base' Coordinates transform -->
  <link name="r_ur5_arm_base"/>
  <joint name="r_ur5_arm_base_link-base_fixed_joint" type="fixed">
    <!-- NOTE: this rotation is only needed as long as base_link itself is
                 not corrected wrt the real robot (ie: rotated over 180
                 degrees)
      -->
    <origin rpy="0 0 -3.14159265" xyz="0 0 0"/>
    <parent link="r_ur5_arm_base_link"/>
    <child link="r_ur5_arm_base"/>
  </joint>
  <!-- Frame coincident with all-zeros TCP on UR controller -->
  <link name="r_ur5_arm_tool0"/>
  <joint name="r_ur5_arm_wrist_3_link-tool0_fixed_joint" type="fixed">
    <origin rpy="-1.570796325 0 0" xyz="0 0.0823 0"/>
    <parent link="r_ur5_arm_wrist_3_link"/>
    <child link="r_ur5_arm_tool0"/>
  </joint>
  <!-- Add laser specifically for this mode -->
  <link name="base_laser">
    <inertial>
      <mass value="1.1"/>
      <origin xyz="0 0 0"/>
      <inertia ixx="0.00307156543804" ixy="0.0" ixz="0.0" iyy="0.00312849041527" iyz="0.0" izz="0.00196432421427"/>
    </inertial>
    <visual>
      <origin rpy="0 0 0" xyz="0 0 0"/>
      <geometry>
        <!-- Origin of this mesh is the focal point of the LIDAR. -->
        <mesh filename="package://dual_arm_husky_description/meshes/sick-lms1xx.dae"/>
      </geometry>
      <material name="Gazebo/Grey"><color rgba=".3 .3 .3 1" /></material>
    </visual>
    <collision>
      <origin rpy="0 0 0" xyz="0 0 -0.05"/>
      <geometry>
        <box size="0.105 0.1 0.1"/>
      </geometry>
    </collision>
  </link>
  <gazebo reference="base_laser">
    <turnGravityOff>true</turnGravityOff>
    <sensor name="base_laser" type="ray">
      <pose>0 0 0 0 0 0</pose>
      <visualize>false</visualize>
      <update_rate>50</update_rate>
      <ray>
        <scan>
          <horizontal>
            <samples>720</samples>
            <resolution>1</resolution>
            <min_angle>-2.35619</min_angle>
            <max_angle>2.35619</max_angle>
          </horizontal>
        </scan>
        <range>
          <min>0.10</min>
          <max>30.0</max>
          <resolution>0.01</resolution>
        </range>
        <noise>
          <type>gaussian</type>
          <mean>0.0</mean>
          <stddev>0.001</stddev>
        </noise>
      </ray>
      <plugin filename="libgazebo_ros_laser.so" name="gazebo_ros_laser">
        <topicName>scan</topicName>
        <frameName>base_laser</frameName>
      </plugin>
    </sensor>
  </gazebo>
  <!-- This offset is from the base of the bracket to the LIDAR's focal point. -->
  <joint name="base_laser_joint" type="fixed">
    <origin rpy="3.14159 0 0" xyz="0.465 0 -0.085"/>
    <parent link="dual_arm_bulkhead_link"/>
    <child link="base_laser"/>
  </joint>
  <!-- Add bumblebee camera -->
  <link name="bumblebee2">
    <visual>
      <origin rpy="-1.5707 0 -1.5707" xyz="0 0 0"/>
      <geometry>
        <mesh filename="package://dual_arm_husky_description/meshes/pointgrey_bumblebee2.dae"/>
      </geometry>
    </visual>
    <collision>
      <origin rpy="0 0 0" xyz="0 0 0"/>
      <geometry>
        <box size="0.04740 0.157 0.036"/>
      </geometry>
    </collision>
    <inertial>
      <mass value="0.342"/>
      <inertia ixx="0.00010096866" ixy="0" ixz="0" iyy="0.00076652916" iyz="0" izz="0.0007394325"/>
    </inertial>
  </link>
  <link name="bumblebee2_optical">
    <inertial>
      <mass value="1E-5"/>
      <inertia ixx="1E-10" ixy="0" ixz="0" iyy="1E-10" iyz="0" izz="1E-10"/>
    </inertial>
  </link>
  <joint name="bumblebee2_optical_joint" type="fixed">
    <origin rpy="-1.570796 0 -1.570796" xyz="0 0 0"/>
    <parent link="bumblebee2"/>
    <child link="bumblebee2_optical"/>
  </joint>
  <gazebo reference="bumblebee2_optical">
    <sensor name="stereo_camera" type="multicamera">
      <update_rate>20</update_rate>
      <camera name="left">
        <pose>0 0 0 0 -1.5707 1.5707</pose>
        <horizontal_fov>1.15191730632</horizontal_fov>
        <image>
          <width>1024</width>
          <height>768</height>
          <format>R8G8B8</format>
        </image>
        <clip>
          <near>0.5</near>
          <far>300</far>
        </clip>
        <noise>
          <type>gaussian</type>
          <mean>0.0</mean>
          <stddev>0.007</stddev>
        </noise>
      </camera>
      <camera name="right">
        <pose>0.12 0 0 0 -1.5707 1.5707</pose>
        <horizontal_fov>1.15191730632</horizontal_fov>
        <image>
          <width>1024</width>
          <height>768</height>
          <format>R8G8B8</format>
        </image>
        <clip>
          <near>0.5</near>
          <far>300</far>
        </clip>
        <noise>
          <type>gaussian</type>
          <mean>0.0</mean>
          <stddev>0.007</stddev>
        </noise>
      </camera>
      <plugin filename="libgazebo_ros_multicamera.so" name="stereo_camera_controller">
        <alwaysOn>true</alwaysOn>
        <cameraName>bumblebee2</cameraName>
        <imageTopicName>image_raw</imageTopicName>
        <cameraInfoTopicName>camera_info</cameraInfoTopicName>
        <frameName>bumblebee2_optical</frameName>
        <hackBaseline>0.12</hackBaseline>
        <!-- NOTE: Distortion is currently unused -->
        <distortionK1>0.0</distortionK1>
        <distortionK2>0.0</distortionK2>
        <distortionK3>0.0</distortionK3>
        <distortionT1>0.0</distortionT1>
        <distortionT2>0.0</distortionT2>
      </plugin>
    </sensor>
  </gazebo>
  <joint name="bumblebee2_mount_joint" type="fixed">
    <origin rpy="0 0 0" xyz="0 0 0.02224"/>
    <parent link="husky_ptu_mount_link"/>
    <child link="bumblebee2"/>
  </joint>
  <!-- Add force torque model FT300 -->
  <!-- mount the fts to the robot -->
  <joint name="l_robotiq_fts300_fts_fix" type="fixed">
    <!--In most cases origin would be flange adapter plate: <origin xyz="0 0 0.009" rpy="0 0 0"/> /-->
    <origin rpy="0 1.57 0" xyz="0 0 0"/>
    <parent link="l_ur5_arm_ee_link"/>
    <child link="l_robotiq_fts300_fts_robotside"/>
  </joint>
  <link name="l_robotiq_fts300_fts_robotside">
    <inertial>
      <origin rpy="0 0 0" xyz="0 0 0.01875"/>
      <mass value="0.65"/>
      <inertia ixx="0.000661171875" ixy="0" ixz="0" iyy="0.000661171875" iyz="0" izz="0.00117"/>
    </inertial>
    <visual>
      <origin rpy="0 0 0" xyz="0 0 0"/>
      <geometry>
        <mesh filename="package://dual_arm_husky_description/meshes/visual/robotiq_fts300.dae"/>
      </geometry>
      <material name="black"><color rgba="0 0 0 1" /></material>
    </visual>
    <collision>
      <origin rpy="0 0 0" xyz="0 0 0"/>
      <geometry>
        <mesh filename="package://dual_arm_husky_description/meshes/collision/robotiq_fts300.dae"/>
      </geometry>
    </collision>
  </link>
  <!-- virtual measurement frame -->
  <joint name="l_robotiq_fts300_measurment_joint" type="fixed">
    <origin rpy="0 0 0" xyz="0 0 0.01625"/>
    <parent link="l_robotiq_fts300_fts_robotside"/>
    <child link="l_robotiq_fts300_robotiq_force_torque_frame_id"/>
  </joint>
  <link name="l_robotiq_fts300_robotiq_force_torque_frame_id"/>
  <!-- toolside frame -->
  <joint name="l_robotiq_fts300_toolside_joint" type="fixed">
    <origin rpy="0 0 0" xyz="0 0 0.0375"/>
    <parent link="l_robotiq_fts300_fts_robotside"/>
    <child link="l_robotiq_fts300_fts_toolside"/>
  </joint>
  <link name="l_robotiq_fts300_fts_toolside"/>
  <!-- mount the fts to the robot -->
  <joint name="r_robotiq_fts300_fts_fix" type="fixed">
    <!--In most cases origin would be flange adapter plate: <origin xyz="0 0 0.009" rpy="0 0 0"/> /-->
    <origin rpy="0 1.57 0" xyz="0 0 0"/>
    <parent link="r_ur5_arm_ee_link"/>
    <child link="r_robotiq_fts300_fts_robotside"/>
  </joint>
  <link name="r_robotiq_fts300_fts_robotside">
    <inertial>
      <origin rpy="0 0 0" xyz="0 0 0.01875"/>
      <mass value="0.65"/>
      <inertia ixx="0.000661171875" ixy="0" ixz="0" iyy="0.000661171875" iyz="0" izz="0.00117"/>
    </inertial>
    <visual>
      <origin rpy="0 0 0" xyz="0 0 0"/>
      <geometry>
        <mesh filename="package://dual_arm_husky_description/meshes/visual/robotiq_fts300.dae"/>
      </geometry>
      <material name="black"><color rgba="0 0 0 1" /></material>
    </visual>
    <collision>
      <origin rpy="0 0 0" xyz="0 0 0"/>
      <geometry>
        <mesh filename="package://dual_arm_husky_description/meshes/collision/robotiq_fts300.dae"/>
      </geometry>
    </collision>
  </link>
  <!-- virtual measurement frame -->
  <joint name="r_robotiq_fts300_measurment_joint" type="fixed">
    <origin rpy="0 0 0" xyz="0 0 0.01625"/>
    <parent link="r_robotiq_fts300_fts_robotside"/>
    <child link="r_robotiq_fts300_robotiq_force_torque_frame_id"/>
  </joint>
  <link name="r_robotiq_fts300_robotiq_force_torque_frame_id"/>
  <!-- toolside frame -->
  <joint name="r_robotiq_fts300_toolside_joint" type="fixed">
    <origin rpy="0 0 0" xyz="0 0 0.0375"/>
    <parent link="r_robotiq_fts300_fts_robotside"/>
    <child link="r_robotiq_fts300_fts_toolside"/>
  </joint>
  <link name="r_robotiq_fts300_fts_toolside"/>
  <!-- joint attaching parent link to robotiq hand -->
  <joint name="l_robotiq_hand_joint" type="fixed">
    <origin rpy="1.57 0 1.0" xyz="0 0 0.05398"/>
    <parent link="l_robotiq_fts300_fts_toolside"/>
    <child link="l_palm"/>
  </joint>
  <!-- Insert the fingers -->
  <!-- Link list -->
  <!-- Link 0 -->
  <link name="l_finger_1_link_0">
    <visual>
      <origin rpy="0 0 0" xyz="0 0 0"/>
      <geometry>
        <mesh filename="package://robotiq_hand_description/meshes/s-model_articulated/visual/link_0.STL"/>
      </geometry>
      <material name="black"><color rgba="0 0 0 1" /></material>
    </visual>
    <collision>
      <origin rpy="0 0 0" xyz="0 0 0"/>
      <geometry>
        <mesh filename="package://robotiq_hand_description/meshes/s-model_articulated/collision/link_0.STL"/>
      </geometry>
      <material name="yellow">
        <color rgba="0 1 1 1"/>
      </material>
    </collision>
    <inertial>
      <mass value="0.1"/>
      <origin xyz="-0.01 0 0"/>
      <inertia ixx="0.000018" ixy="0" ixz="0" iyy="0.000025" iyz="0" izz="0.000025"/>
    </inertial>
  </link>
  <gazebo reference="l_finger_1_link_0">
    <mu1>1.1</mu1>
    <mu2>1.1</mu2>
  </gazebo>
  <!-- Link 1 -->
  <link name="l_finger_1_link_1">
    <visual>
      <origin rpy="0 0 1.5708" xyz="0 0.05717 0"/>
      <geometry>
        <mesh filename="package://robotiq_hand_description/meshes/s-model_articulated/visual/link_1.STL"/>
      </geometry>
      <material name="Gazebo/LightGrey"><color rgba=".7 .7 .7 1.0" /></material>
    </visual>
    <collision>
      <origin rpy="0 0 1.5708" xyz="0 0.05717 0"/>
      <geometry>
        <mesh filename="package://robotiq_hand_description/meshes/s-model_articulated/collision/link_1.STL"/>
      </geometry>
      <material name="yellow">
        <color rgba="0 1 1 1"/>
      </material>
    </collision>
    <inertial>
      <origin rpy="0 0 1.5708" xyz="0.00053 0.03218 0"/>
      <mass value="0.047"/>
      <inertia ixx="0.00000499332" ixy="0.00000091312" ixz="-0.00000000120" iyy="0.00006434531" iyz="-0.00000000007" izz="0.00006061917"/>
    </inertial>
  </link>
  <gazebo reference="l_finger_1_link_1">
    <mu1>1.1</mu1>
    <mu2>1.1</mu2>
  </gazebo>
  <!-- Link 2 -->
  <link name="l_finger_1_link_2">
    <visual>
      <origin rpy="0 0 1.5708" xyz="0 0.03810 0.0075"/>
      <geometry>
        <mesh filename="package://robotiq_hand_description/meshes/s-model_articulated/visual/link_2.STL"/>
      </geometry>
      <material name="Gazebo/LightGrey"><color rgba=".7 .7 .7 1.0" /></material>
    </visual>
    <collision>
      <origin rpy="0 0 1.5708" xyz="0 0.03810 0.0075"/>
      <geometry>
        <mesh filename="package://robotiq_hand_description/meshes/s-model_articulated/collision/link_2.STL"/>
      </geometry>
      <material name="yellow"><color rgba="1 1 0 1" /></material>
    </collision>
    <inertial>
      <origin rpy="0 0 1.5708" xyz="0.00048 0.02167 0.00018"/>
      <mass value="0.03284"/>
      <inertia ixx="0.00000348008" ixy="0.00000031940" ixz="0.00000013041" iyy="0.00002248123" iyz="0.00000000291" izz="0.00001986346"/>
    </inertial>
  </link>
  <gazebo reference="l_finger_1_link_2">
    <mu1>1.1</mu1>
    <mu2>1.1</mu2>
  </gazebo>
  <!-- Link 3 -->
  <link name="l_finger_1_link_3">
    <visual>
      <origin rpy="0 0 0" xyz="0 0 0"/>
      <geometry>
        <mesh filename="package://robotiq_hand_description/meshes/s-model_articulated/visual/link_3.STL"/>
      </geometry>
      <material name="Gazebo/LightGrey"><color rgba=".7 .7 .7 1.0" /></material>
    </visual>
    <collision>
      <origin rpy="0 0 0" xyz="0 0 0"/>
      <geometry>
        <mesh filename="package://robotiq_hand_description/meshes/s-model_articulated/collision/link_3.STL"/>
      </geometry>
      <material name="yellow"><color rgba="1 1 0 1" /></material>
    </collision>
    <inertial>
      <origin rpy="0 0 0" xyz="0.01626 0.00049 0.0002"/>
      <mass value="0.03354"/>
      <inertia ixx="0.00000305151" ixy="0.00000089792" ixz="0.00000000249" iyy="0.00001427978" iyz="-0.00000001191" izz="0.00001264126"/>
    </inertial>
  </link>
  <gazebo reference="l_finger_1_link_3">
    <mu1>1.1</mu1>
    <mu2>1.1</mu2>
  </gazebo>
  <!-- Link proximal actuating hinge -->
  <link name="l_finger_1_link_proximal_actuating_hinge">
    <visual>
      <origin rpy="0 0 0" xyz="0.01429 0 0"/>
      <geometry>
        <box size="0.02858 .0075 .002"/>
      </geometry>
    </visual>
    <collision>
      <origin rpy="0 0 0" xyz="0.01429 0 0"/>
      <geometry>
        <box size="0.02858 .0075 .002"/>
      </geometry>
    </collision>
    <inertial>
      <origin rpy="0 0 0" xyz="0.0012 -0.00162 -0.00161"/>
      <mass value="0.02647"/>
      <inertia ixx="0.00000156447" ixy="0.000000236226" ixz="-0.00000014862" iyy="0.00000221068" iyz="-0.00000014369" izz="0.00000323175"/>
    </inertial>
  </link>
  <gazebo reference="l_finger_1_link_proximal_actuating_hinge">
    <mu1>1.1</mu1>
    <mu2>1.1</mu2>
  </gazebo>
  <!-- Link paraproximal actuating hinge -->
  <link name="l_finger_1_link_paraproximal_actuating_hinge">
    <visual>
      <origin rpy="0 0 0" xyz="0.01143 0 0"/>
      <geometry>
        <box size="0.02286 .0075 .002"/>
      </geometry>
    </visual>
    <collision>
      <origin rpy="0 0 0" xyz="0.01143 0 0"/>
      <geometry>
        <box size="0.02286 .0075 .002"/>
      </geometry>
    </collision>
    <inertial>
      <origin rpy="0 0 0" xyz="0.0064 0 0"/>
      <!-- copied from proximal_actuating_hinge -->
      <mass value="0.00362"/>
      <inertia ixx="0.00000012043" ixy="0" ixz="0" iyy="0.00000053588" iyz="0" izz="0.00000065322"/>
    </inertial>
  </link>
  <gazebo reference="l_finger_1_link_paraproximal_actuating_hinge">
    <mu1>1.1</mu1>
    <mu2>1.1</mu2>
  </gazebo>
  <!-- Link proximal actuating bar -->
  <link name="l_finger_1_link_proximal_actuating_bar">
    <visual>
      <origin rpy="0 0 0" xyz="0.026789 0 0"/>
      <geometry>
        <box size="0.05398 .0075 .002"/>
      </geometry>
    </visual>
    <collision>
      <origin rpy="0 0 0" xyz="0.026789 0 0"/>
      <geometry>
        <box size="0.05398 .0075 .002"/>
      </geometry>
    </collision>
    <inertial>
      <origin rpy="0 0 0" xyz="0.02699 -0.00122 0"/>
      <mass value="0.00659"/>
      <inertia ixx="0.00000008348" ixy="-0.0000002179" ixz="0.00000000134" iyy="0.00000719076" iyz="0" izz="0.00000718272"/>
    </inertial>
  </link>
  <gazebo reference="l_finger_1_link_proximal_actuating_bar">
    <mu1>1.1</mu1>
    <mu2>1.1</mu2>
  </gazebo>
  <!-- Link paraproximal bar -->
  <link name="l_finger_1_link_paraproximal_bar">
    <visual>
      <origin rpy="0 0 0" xyz="0.02885 0 0"/>
      <geometry>
        <box size="0.05770 .0075 .002"/>
      </geometry>
    </visual>
    <collision>
      <origin rpy="0 0 0" xyz="0.02885 0 0"/>
      <geometry>
        <box size="0.05770 .0075 .002"/>
      </geometry>
    </collision>
    <inertial>
      <origin rpy="0 0 0" xyz="0.02858 -0.00129 0"/>
      <mass value="0.00732"/>
      <inertia ixx="0.00000009065" ixy="-0.00000027047" ixz="0.00000000142" iyy="0.00000878034" iyz="0" izz="0.00000877558"/>
    </inertial>
  </link>
  <gazebo reference="l_finger_1_link_paraproximal_bar">
    <mu1>1.1</mu1>
    <mu2>1.1</mu2>
  </gazebo>
  <!-- Link median actuating hinge -->
  <link name="l_finger_1_link_median_actuating_hinge">
    <visual>
      <origin rpy="0 0 0" xyz="0 0 0"/>
      <geometry>
        <box size=".02 .02 .002"/>
      </geometry>
    </visual>
    <collision>
      <origin rpy="0 0 0" xyz="0 0 0"/>
      <geometry>
        <box size=".02 .02 .002"/>
      </geometry>
    </collision>
    <inertial>
      <origin rpy="0 0 0" xyz="0.0092 0.00514 0"/>
      <mass value="0.00359"/>
      <inertia ixx="0.00000024735" ixy="0.00000023619" ixz="0" iyy="0.00000047681" iyz="0" izz="0.00000071813"/>
    </inertial>
  </link>
  <gazebo reference="l_finger_1_link_median_actuating_hinge">
    <mu1>1.1</mu1>
    <mu2>1.1</mu2>
  </gazebo>
  <!-- Link median bar -->
  <link name="l_finger_1_link_median_bar">
    <visual>
      <origin rpy="0 0 0" xyz="0.01905 0 0"/>
      <geometry>
        <box size="0.0381 .0075 .002"/>
      </geometry>
    </visual>
    <collision>
      <origin rpy="0 0 0" xyz="0.01905 0 0"/>
      <geometry>
        <box size="0.0381 .0075 .002"/>
      </geometry>
    </collision>
    <inertial>
      <origin rpy="0 0 0" xyz="0.01905 -0.00107 0"/>
      <mass value="0.00538"/>
      <inertia ixx="0.00000006639" ixy="-0.00000010996" ixz="0.00000000094" iyy="0.00000305318" iyz="0" izz="0.00000304657"/>
    </inertial>
  </link>
  <gazebo reference="l_finger_1_link_median_bar">
    <mu1>1.1</mu1>
    <mu2>1.1</mu2>
  </gazebo>
  <!-- Link paramedian hinge -->
  <link name="l_finger_1_link_paramedian_hinge">
    <visual>
      <origin rpy="0 0 0" xyz="0 0 0"/>
      <geometry>
        <box size=".02 .02 .002"/>
      </geometry>
    </visual>
    <collision>
      <origin rpy="0 0 0" xyz="0 0 0"/>
      <geometry>
        <box size=".02 .02 .002"/>
      </geometry>
    </collision>
    <inertial>
      <origin rpy="0 0 0" xyz="-0.01025 0.00046 0"/>
      <mass value="0.00276"/>
      <inertia ixx="0.00000004213" ixy="-0.00000001491" ixz="0" iyy="0.00000050258" iyz="0" izz="0.00000054007"/>
    </inertial>
  </link>
  <gazebo reference="l_finger_1_link_paramedian_hinge">
    <mu1>1.1</mu1>
    <mu2>1.1</mu2>
  </gazebo>
  <!-- Link median bar underactuated -->
  <link name="l_finger_1_link_median_bar_underactuated">
    <visual>
      <origin rpy="0 0 0" xyz="0.01905 0 0"/>
      <geometry>
        <box size="0.0381 .0075 .002"/>
      </geometry>
    </visual>
    <collision>
      <origin rpy="0 0 0" xyz="0.01905 0 0"/>
      <geometry>
        <box size="0.0381 .0075 .002"/>
      </geometry>
    </collision>
    <inertial>
      <origin rpy="0 0 0" xyz="0.01905 -0.00107 0"/>
      <mass value="0.00538"/>
      <inertia ixx="0.00000006639" ixy="-0.00000010996" ixz="-0.00000000094" iyy="0.00000305318" iyz="0" izz="0.00000304657"/>
    </inertial>
  </link>
  <gazebo reference="l_finger_1_link_median_bar_underactuated">
    <mu1>1.1</mu1>
    <mu2>1.1</mu2>
  </gazebo>
  <!-- Link paradistal hinge -->
  <link name="l_finger_1_link_paradistal_hinge">
    <visual>
      <origin rpy="0 0 0" xyz="0 0 0"/>
      <geometry>
        <box size=".02 .02 .002"/>
      </geometry>
    </visual>
    <collision>
      <origin rpy="0 0 0" xyz="0 0 0"/>
      <geometry>
        <box size=".02 0.02 .002"/>
      </geometry>
    </collision>
    <inertial>
      <origin rpy="0 0 0" xyz="0.00548 0 0"/>
      <mass value="0.00158"/>
      <inertia ixx="0.00000001907" ixy="0" ixz="0" iyy="0.00000010970" iyz="0" izz="0.00000012610"/>
    </inertial>
  </link>
  <gazebo reference="l_finger_1_link_paradistal_hinge">
    <mu1>1.1</mu1>
    <mu2>1.1</mu2>
  </gazebo>
  <!-- End of link list -->
  <!-- Joint list -->
  <!-- Joint proximal actuating hinge -->
  <joint name="l_finger_1_joint_proximal_actuating_hinge" type="revolute">
    <parent link="l_finger_1_link_0"/>
    <child link="l_finger_1_link_proximal_actuating_hinge"/>
    <axis xyz="0 0 1"/>
    <origin rpy="0 0 -2.0906" xyz="0 0 0.01"/>
    <limit effort="100" lower="-3.1416" upper="3.1416" velocity="100"/>
  </joint>
  <gazebo reference="l_finger_1_joint_proximal_actuating_hinge">
    <implicitSpringDamper>1</implicitSpringDamper>
  </gazebo>
  <!-- Joint paraproximal actuating hinge -->
  <joint name="l_finger_1_joint_paraproximal_actuating_hinge" type="revolute">
    <parent link="l_finger_1_link_0"/>
    <child link="l_finger_1_link_paraproximal_actuating_hinge"/>
    <axis xyz="0 0 1"/>
    <origin rpy="0 0 -2.0906" xyz="0 0 -0.01"/>
    <limit effort="100" lower="-3.1416" upper="3.1416" velocity="100"/>
  </joint>
  <gazebo reference="l_finger_1_joint_paraproximal_actuating_hinge">
    <implicitSpringDamper>1</implicitSpringDamper>
  </gazebo>
  <!-- Joint proximal actuating bar -->
  <joint name="l_finger_1_joint_proximal_actuating_bar" type="revolute">
    <parent link="l_finger_1_link_proximal_actuating_hinge"/>
    <child link="l_finger_1_link_proximal_actuating_bar"/>
    <axis xyz="0 0 1"/>
    <origin rpy="0 0 1.8616" xyz="0.02858 0 0"/>
    <limit effort="100" lower="-3.1416" upper="3.1416" velocity="100"/>
  </joint>
  <gazebo reference="l_finger_1_joint_proximal_actuating_bar">
    <implicitSpringDamper>1</implicitSpringDamper>
  </gazebo>
  <!-- Joint paraproximal bar -->
  <joint name="l_finger_1_joint_paraproximal_bar" type="revolute">
    <parent link="l_finger_1_link_paraproximal_actuating_hinge"/>
    <child link="l_finger_1_link_paraproximal_bar"/>
    <axis xyz="0 0 1"/>
    <origin rpy="0 0 1.57" xyz="0.02286 0 0"/>
    <limit effort="100" lower="-3.1416" upper="3.1416" velocity="100"/>
  </joint>
  <gazebo reference="l_finger_1_joint_paraproximal_bar">
    <implicitSpringDamper>1</implicitSpringDamper>
  </gazebo>
  <!-- Joint median actuating hinge -->
  <joint name="l_finger_1_joint_median_actuating_hinge" type="revolute">
    <parent link="l_finger_1_link_1"/>
    <child link="l_finger_1_link_median_actuating_hinge"/>
    <axis xyz="0 0 1"/>
    <origin rpy="0 0 -0.37" xyz="0 0.05715 0.01"/>
    <limit effort="100" lower="-3.1416" upper="3.1416" velocity="100"/>
  </joint>
  <gazebo reference="l_finger_1_joint_median_actuating_hinge">
    <implicitSpringDamper>1</implicitSpringDamper>
  </gazebo>
  <!-- Joint paramedian hinge -->
  <joint name="l_finger_1_joint_paramedian_hinge" type="revolute">
    <parent link="l_finger_1_link_1"/>
    <child link="l_finger_1_link_paramedian_hinge"/>
    <axis xyz="0 0 1"/>
    <!-- -0.37 is hand picked, 0.9719 is hand calculated from atan(0.02381/0.01625) -->
    <origin rpy="0 0 0" xyz="0 0.05715 -0.01"/>
    <limit effort="100" lower="-3.1416" upper="3.1416" velocity="100"/>
  </joint>
  <gazebo reference="l_finger_1_joint_paramedian_hinge">
    <implicitSpringDamper>1</implicitSpringDamper>
  </gazebo>
  <!-- Joint median actuating hinge median bar -->
  <joint name="l_finger_1_joint_median_actuating_hinge_median_bar" type="revolute">
    <parent link="l_finger_1_link_median_actuating_hinge"/>
    <child link="l_finger_1_link_median_bar"/>
    <axis xyz="0 0 1"/>
    <!-- hand calc 90 deg + atan(0.01516/0.01625) -->
    <origin rpy="0 0 2.3215" xyz="0.01625 0.01516 0"/>
    <limit effort="100" lower="-3.1416" upper="3.1416" velocity="100"/>
  </joint>
  <gazebo reference="l_finger_1_joint_median_actuating_hinge_median_bar">
    <implicitSpringDamper>1</implicitSpringDamper>
  </gazebo>
  <!-- Joint paradistal hinge -->
  <joint name="l_finger_1_joint_paradistal_hinge" type="revolute">
    <parent link="l_finger_1_link_2"/>
    <child link="l_finger_1_link_paradistal_hinge"/>
    <axis xyz="0 0 1"/>
    <origin rpy="0 0 0" xyz="0 0.039 -0.01"/>
    <limit effort="100" lower="-3.1416" upper="3.1416" velocity="100"/>
  </joint>
  <gazebo reference="l_finger_1_joint_paradistal_hinge">
    <implicitSpringDamper>1</implicitSpringDamper>
  </gazebo>
  <!-- Joint paramedian hinge median bar underactuated -->
  <joint name="l_finger_1_joint_paramedian_hinge_median_bar_underactuated" type="revolute">
    <parent link="l_finger_1_link_paramedian_hinge"/>
    <child link="l_finger_1_link_median_bar_underactuated"/>
    <axis xyz="0 0 1"/>
    <!-- hand calc 90 deg + atan(0.01227/0.00329) -->
    <origin rpy="0 0 1.5708" xyz="0.01227 0.00329 0"/>
    <limit effort="100" lower="-3.1416" upper="3.1416" velocity="100"/>
  </joint>
  <gazebo reference="l_finger_1_joint_paramedian_hinge_median_bar_underactuated">
    <implicitSpringDamper>1</implicitSpringDamper>
  </gazebo>
  <!-- Joint 1 -->
  <joint name="l_finger_1_joint_1" type="revolute">
    <origin rpy="0 0 -2.0906" xyz="0 0 0"/>
    <axis xyz="0 0 1"/>
    <parent link="l_finger_1_link_0"/>
    <child link="l_finger_1_link_1"/>
    <dynamics damping="1" friction="0"/>
    <!-- Limits: [0deg.,70deg.] -->
    <limit effort="60" lower="0" upper="1.2217" velocity="-1"/>
  </joint>
  <gazebo reference="l_finger_1_joint_1">
    <implicitSpringDamper>1</implicitSpringDamper>
  </gazebo>
  <!-- Joint 2 -->
  <joint name="l_finger_1_joint_2" type="revolute">
    <parent link="l_finger_1_link_1"/>
    <child link="l_finger_1_link_2"/>
    <dynamics damping="1" friction="0"/>
    <axis xyz="0 0 1"/>
    <origin rpy="0 0 0" xyz="0 0.05715 0"/>
    <!-- Limits: [0deg.,90deg.] -->
    <limit effort="60" lower="0" upper="1.5708" velocity="-1"/>
  </joint>
  <gazebo reference="l_finger_1_joint_2">
    <implicitSpringDamper>1</implicitSpringDamper>
  </gazebo>
  <!-- Joint 3 -->
  <joint name="l_finger_1_joint_3" type="revolute">
    <parent link="l_finger_1_link_2"/>
    <child link="l_finger_1_link_3"/>
    <dynamics damping="1" friction="0"/>
    <axis xyz="0 0 1"/>
    <origin rpy="0 0 2.0906" xyz="0 0.039 0"/>
    <!-- Limits: [-38deg.,60deg.] -->
    <limit effort="60" lower="-0.6632" upper="1.0471" velocity="-1"/>
  </joint>
  <gazebo reference="l_finger_1_joint_3">
    <implicitSpringDamper>1</implicitSpringDamper>
  </gazebo>
  <!-- end of joint list -->
  <!-- coupling joints in sdf -->
  <gazebo>
    <joint name="l_finger_1_link_proximal_actuating_bar_median_actuating_hinge_couple" type="revolute">
      <parent>l_finger_1_link_median_actuating_hinge</parent>
      <child>l_finger_1_link_proximal_actuating_bar</child>
      <pose>0.05398 0 0 0 0 0</pose>
      <axis>
        <dynamics>
          <damping>0</damping>
          <friction>0</friction>
        </dynamics>
        <xyz>0 0 1</xyz>
        <!-- <use_parent_model_frame>false</use_parent_model_frame> -->
      </axis>
    </joint>
  </gazebo>
  <gazebo reference="l_finger_1_link_proximal_actuating_bar_median_actuating_hinge_couple">
    <implicitSpringDamper>1</implicitSpringDamper>
  </gazebo>
  <gazebo>
    <joint name="l_finger_1_link_median_bar_link_3_couple" type="revolute">
      <parent>l_finger_1_link_3</parent>
      <child>l_finger_1_link_median_bar</child>
      <pose>0.0381 0 0 0 0 0</pose>
      <axis>
        <dynamics>
          <damping>0</damping>
          <friction>0</friction>
        </dynamics>
        <xyz>0 0 1</xyz>
        <!-- <use_parent_model_frame>false</use_parent_model_frame> -->
      </axis>
    </joint>
  </gazebo>
  <gazebo reference="l_finger_1_link_median_bar_link_3_couple">
    <implicitSpringDamper>1</implicitSpringDamper>
  </gazebo>
  <gazebo>
    <joint name="l_finger_1_link_paramedian_bar_paradistal_hinge_couple" type="revolute">
      <parent>l_finger_1_link_paradistal_hinge</parent>
      <child>l_finger_1_link_median_bar_underactuated</child>
      <pose>0.0381 0 0 0 0 0</pose>
      <axis>
        <dynamics>
          <damping>0</damping>
          <friction>0</friction>
        </dynamics>
        <xyz>0 0 1</xyz>
        <!-- <use_parent_model_frame>false</use_parent_model_frame> -->
      </axis>
    </joint>
  </gazebo>
  <gazebo reference="l_finger_1_link_median_bar_link_3_couple">
    <implicitSpringDamper>1</implicitSpringDamper>
  </gazebo>
  <gazebo>
    <joint name="l_finger_1_link_paradistal_hinge_link_3_couple" type="revolute">
      <parent>l_finger_1_link_paradistal_hinge</parent>
      <child>l_finger_1_link_3</child>
      <pose>0.0381 0 0 0 0 0</pose>
      <axis>
        <dynamics>
          <damping>0</damping>
          <friction>0</friction>
        </dynamics>
        <xyz>0 0 1</xyz>
        <!-- <use_parent_model_frame>false</use_parent_model_frame> -->
      </axis>
    </joint>
  </gazebo>
  <gazebo reference="l_finger_1_link_paradistal_hinge_link_3_couple">
    <implicitSpringDamper>1</implicitSpringDamper>
  </gazebo>
  <gazebo>
    <joint name="l_finger_1_link_paraproximal_bar_paramedian_hinge_couple" type="revolute">
      <parent>l_finger_1_link_paramedian_hinge</parent>
      <child>l_finger_1_link_paraproximal_bar</child>
      <pose>0.05770 0 0 0 0 0</pose>
      <axis>
        <dynamics>
          <damping>0</damping>
          <friction>0</friction>
        </dynamics>
        <xyz>0 0 1</xyz>
        <!-- <use_parent_model_frame>false</use_parent_model_frame> -->
      </axis>
    </joint>
  </gazebo>
  <gazebo reference="l_finger_1_link_paraproximal_bar_paramedian_hinge_couple">
    <implicitSpringDamper>1</implicitSpringDamper>
  </gazebo>
  <!-- Link list -->
  <!-- Link 0 -->
  <link name="l_finger_2_link_0">
    <visual>
      <origin rpy="0 0 0" xyz="0 0 0"/>
      <geometry>
        <mesh filename="package://robotiq_hand_description/meshes/s-model_articulated/visual/link_0.STL"/>
      </geometry>
      <material name="black"><color rgba="0 0 0 1" /></material>
    </visual>
    <collision>
      <origin rpy="0 0 0" xyz="0 0 0"/>
      <geometry>
        <mesh filename="package://robotiq_hand_description/meshes/s-model_articulated/collision/link_0.STL"/>
      </geometry>
      <material name="yellow">
        <color rgba="0 1 1 1"/>
      </material>
    </collision>
    <inertial>
      <mass value="0.1"/>
      <origin xyz="-0.01 0 0"/>
      <inertia ixx="0.000018" ixy="0" ixz="0" iyy="0.000025" iyz="0" izz="0.000025"/>
    </inertial>
  </link>
  <gazebo reference="l_finger_2_link_0">
    <mu1>1.1</mu1>
    <mu2>1.1</mu2>
  </gazebo>
  <!-- Link 1 -->
  <link name="l_finger_2_link_1">
    <visual>
      <origin rpy="0 0 1.5708" xyz="0 0.05717 0"/>
      <geometry>
        <mesh filename="package://robotiq_hand_description/meshes/s-model_articulated/visual/link_1.STL"/>
      </geometry>
      <material name="Gazebo/LightGrey"><color rgba=".7 .7 .7 1.0" /></material>
    </visual>
    <collision>
      <origin rpy="0 0 1.5708" xyz="0 0.05717 0"/>
      <geometry>
        <mesh filename="package://robotiq_hand_description/meshes/s-model_articulated/collision/link_1.STL"/>
      </geometry>
      <material name="yellow">
        <color rgba="0 1 1 1"/>
      </material>
    </collision>
    <inertial>
      <origin rpy="0 0 1.5708" xyz="0.00053 0.03218 0"/>
      <mass value="0.047"/>
      <inertia ixx="0.00000499332" ixy="0.00000091312" ixz="-0.00000000120" iyy="0.00006434531" iyz="-0.00000000007" izz="0.00006061917"/>
    </inertial>
  </link>
  <gazebo reference="l_finger_2_link_1">
    <mu1>1.1</mu1>
    <mu2>1.1</mu2>
  </gazebo>
  <!-- Link 2 -->
  <link name="l_finger_2_link_2">
    <visual>
      <origin rpy="0 0 1.5708" xyz="0 0.03810 0.0075"/>
      <geometry>
        <mesh filename="package://robotiq_hand_description/meshes/s-model_articulated/visual/link_2.STL"/>
      </geometry>
      <material name="Gazebo/LightGrey"><color rgba=".7 .7 .7 1.0" /></material>
    </visual>
    <collision>
      <origin rpy="0 0 1.5708" xyz="0 0.03810 0.0075"/>
      <geometry>
        <mesh filename="package://robotiq_hand_description/meshes/s-model_articulated/collision/link_2.STL"/>
      </geometry>
      <material name="yellow"><color rgba="1 1 0 1" /></material>
    </collision>
    <inertial>
      <origin rpy="0 0 1.5708" xyz="0.00048 0.02167 0.00018"/>
      <mass value="0.03284"/>
      <inertia ixx="0.00000348008" ixy="0.00000031940" ixz="0.00000013041" iyy="0.00002248123" iyz="0.00000000291" izz="0.00001986346"/>
    </inertial>
  </link>
  <gazebo reference="l_finger_2_link_2">
    <mu1>1.1</mu1>
    <mu2>1.1</mu2>
  </gazebo>
  <!-- Link 3 -->
  <link name="l_finger_2_link_3">
    <visual>
      <origin rpy="0 0 0" xyz="0 0 0"/>
      <geometry>
        <mesh filename="package://robotiq_hand_description/meshes/s-model_articulated/visual/link_3.STL"/>
      </geometry>
      <material name="Gazebo/LightGrey"><color rgba=".7 .7 .7 1.0" /></material>
    </visual>
    <collision>
      <origin rpy="0 0 0" xyz="0 0 0"/>
      <geometry>
        <mesh filename="package://robotiq_hand_description/meshes/s-model_articulated/collision/link_3.STL"/>
      </geometry>
      <material name="yellow"><color rgba="1 1 0 1" /></material>
    </collision>
    <inertial>
      <origin rpy="0 0 0" xyz="0.01626 0.00049 0.0002"/>
      <mass value="0.03354"/>
      <inertia ixx="0.00000305151" ixy="0.00000089792" ixz="0.00000000249" iyy="0.00001427978" iyz="-0.00000001191" izz="0.00001264126"/>
    </inertial>
  </link>
  <gazebo reference="l_finger_2_link_3">
    <mu1>1.1</mu1>
    <mu2>1.1</mu2>
  </gazebo>
  <!-- Link proximal actuating hinge -->
  <link name="l_finger_2_link_proximal_actuating_hinge">
    <visual>
      <origin rpy="0 0 0" xyz="0.01429 0 0"/>
      <geometry>
        <box size="0.02858 .0075 .002"/>
      </geometry>
    </visual>
    <collision>
      <origin rpy="0 0 0" xyz="0.01429 0 0"/>
      <geometry>
        <box size="0.02858 .0075 .002"/>
      </geometry>
    </collision>
    <inertial>
      <origin rpy="0 0 0" xyz="0.0012 -0.00162 -0.00161"/>
      <mass value="0.02647"/>
      <inertia ixx="0.00000156447" ixy="0.000000236226" ixz="-0.00000014862" iyy="0.00000221068" iyz="-0.00000014369" izz="0.00000323175"/>
    </inertial>
  </link>
  <gazebo reference="l_finger_2_link_proximal_actuating_hinge">
    <mu1>1.1</mu1>
    <mu2>1.1</mu2>
  </gazebo>
  <!-- Link paraproximal actuating hinge -->
  <link name="l_finger_2_link_paraproximal_actuating_hinge">
    <visual>
      <origin rpy="0 0 0" xyz="0.01143 0 0"/>
      <geometry>
        <box size="0.02286 .0075 .002"/>
      </geometry>
    </visual>
    <collision>
      <origin rpy="0 0 0" xyz="0.01143 0 0"/>
      <geometry>
        <box size="0.02286 .0075 .002"/>
      </geometry>
    </collision>
    <inertial>
      <origin rpy="0 0 0" xyz="0.0064 0 0"/>
      <!-- copied from proximal_actuating_hinge -->
      <mass value="0.00362"/>
      <inertia ixx="0.00000012043" ixy="0" ixz="0" iyy="0.00000053588" iyz="0" izz="0.00000065322"/>
    </inertial>
  </link>
  <gazebo reference="l_finger_2_link_paraproximal_actuating_hinge">
    <mu1>1.1</mu1>
    <mu2>1.1</mu2>
  </gazebo>
  <!-- Link proximal actuating bar -->
  <link name="l_finger_2_link_proximal_actuating_bar">
    <visual>
      <origin rpy="0 0 0" xyz="0.026789 0 0"/>
      <geometry>
        <box size="0.05398 .0075 .002"/>
      </geometry>
    </visual>
    <collision>
      <origin rpy="0 0 0" xyz="0.026789 0 0"/>
      <geometry>
        <box size="0.05398 .0075 .002"/>
      </geometry>
    </collision>
    <inertial>
      <origin rpy="0 0 0" xyz="0.02699 -0.00122 0"/>
      <mass value="0.00659"/>
      <inertia ixx="0.00000008348" ixy="-0.0000002179" ixz="0.00000000134" iyy="0.00000719076" iyz="0" izz="0.00000718272"/>
    </inertial>
  </link>
  <gazebo reference="l_finger_2_link_proximal_actuating_bar">
    <mu1>1.1</mu1>
    <mu2>1.1</mu2>
  </gazebo>
  <!-- Link paraproximal bar -->
  <link name="l_finger_2_link_paraproximal_bar">
    <visual>
      <origin rpy="0 0 0" xyz="0.02885 0 0"/>
      <geometry>
        <box size="0.05770 .0075 .002"/>
      </geometry>
    </visual>
    <collision>
      <origin rpy="0 0 0" xyz="0.02885 0 0"/>
      <geometry>
        <box size="0.05770 .0075 .002"/>
      </geometry>
    </collision>
    <inertial>
      <origin rpy="0 0 0" xyz="0.02858 -0.00129 0"/>
      <mass value="0.00732"/>
      <inertia ixx="0.00000009065" ixy="-0.00000027047" ixz="0.00000000142" iyy="0.00000878034" iyz="0" izz="0.00000877558"/>
    </inertial>
  </link>
  <gazebo reference="l_finger_2_link_paraproximal_bar">
    <mu1>1.1</mu1>
    <mu2>1.1</mu2>
  </gazebo>
  <!-- Link median actuating hinge -->
  <link name="l_finger_2_link_median_actuating_hinge">
    <visual>
      <origin rpy="0 0 0" xyz="0 0 0"/>
      <geometry>
        <box size=".02 .02 .002"/>
      </geometry>
    </visual>
    <collision>
      <origin rpy="0 0 0" xyz="0 0 0"/>
      <geometry>
        <box size=".02 .02 .002"/>
      </geometry>
    </collision>
    <inertial>
      <origin rpy="0 0 0" xyz="0.0092 0.00514 0"/>
      <mass value="0.00359"/>
      <inertia ixx="0.00000024735" ixy="0.00000023619" ixz="0" iyy="0.00000047681" iyz="0" izz="0.00000071813"/>
    </inertial>
  </link>
  <gazebo reference="l_finger_2_link_median_actuating_hinge">
    <mu1>1.1</mu1>
    <mu2>1.1</mu2>
  </gazebo>
  <!-- Link median bar -->
  <link name="l_finger_2_link_median_bar">
    <visual>
      <origin rpy="0 0 0" xyz="0.01905 0 0"/>
      <geometry>
        <box size="0.0381 .0075 .002"/>
      </geometry>
    </visual>
    <collision>
      <origin rpy="0 0 0" xyz="0.01905 0 0"/>
      <geometry>
        <box size="0.0381 .0075 .002"/>
      </geometry>
    </collision>
    <inertial>
      <origin rpy="0 0 0" xyz="0.01905 -0.00107 0"/>
      <mass value="0.00538"/>
      <inertia ixx="0.00000006639" ixy="-0.00000010996" ixz="0.00000000094" iyy="0.00000305318" iyz="0" izz="0.00000304657"/>
    </inertial>
  </link>
  <gazebo reference="l_finger_2_link_median_bar">
    <mu1>1.1</mu1>
    <mu2>1.1</mu2>
  </gazebo>
  <!-- Link paramedian hinge -->
  <link name="l_finger_2_link_paramedian_hinge">
    <visual>
      <origin rpy="0 0 0" xyz="0 0 0"/>
      <geometry>
        <box size=".02 .02 .002"/>
      </geometry>
    </visual>
    <collision>
      <origin rpy="0 0 0" xyz="0 0 0"/>
      <geometry>
        <box size=".02 .02 .002"/>
      </geometry>
    </collision>
    <inertial>
      <origin rpy="0 0 0" xyz="-0.01025 0.00046 0"/>
      <mass value="0.00276"/>
      <inertia ixx="0.00000004213" ixy="-0.00000001491" ixz="0" iyy="0.00000050258" iyz="0" izz="0.00000054007"/>
    </inertial>
  </link>
  <gazebo reference="l_finger_2_link_paramedian_hinge">
    <mu1>1.1</mu1>
    <mu2>1.1</mu2>
  </gazebo>
  <!-- Link median bar underactuated -->
  <link name="l_finger_2_link_median_bar_underactuated">
    <visual>
      <origin rpy="0 0 0" xyz="0.01905 0 0"/>
      <geometry>
        <box size="0.0381 .0075 .002"/>
      </geometry>
    </visual>
    <collision>
      <origin rpy="0 0 0" xyz="0.01905 0 0"/>
      <geometry>
        <box size="0.0381 .0075 .002"/>
      </geometry>
    </collision>
    <inertial>
      <origin rpy="0 0 0" xyz="0.01905 -0.00107 0"/>
      <mass value="0.00538"/>
      <inertia ixx="0.00000006639" ixy="-0.00000010996" ixz="-0.00000000094" iyy="0.00000305318" iyz="0" izz="0.00000304657"/>
    </inertial>
  </link>
  <gazebo reference="l_finger_2_link_median_bar_underactuated">
    <mu1>1.1</mu1>
    <mu2>1.1</mu2>
  </gazebo>
  <!-- Link paradistal hinge -->
  <link name="l_finger_2_link_paradistal_hinge">
    <visual>
      <origin rpy="0 0 0" xyz="0 0 0"/>
      <geometry>
        <box size=".02 .02 .002"/>
      </geometry>
    </visual>
    <collision>
      <origin rpy="0 0 0" xyz="0 0 0"/>
      <geometry>
        <box size=".02 0.02 .002"/>
      </geometry>
    </collision>
    <inertial>
      <origin rpy="0 0 0" xyz="0.00548 0 0"/>
      <mass value="0.00158"/>
      <inertia ixx="0.00000001907" ixy="0" ixz="0" iyy="0.00000010970" iyz="0" izz="0.00000012610"/>
    </inertial>
  </link>
  <gazebo reference="l_finger_2_link_paradistal_hinge">
    <mu1>1.1</mu1>
    <mu2>1.1</mu2>
  </gazebo>
  <!-- End of link list -->
  <!-- Joint list -->
  <!-- Joint proximal actuating hinge -->
  <joint name="l_finger_2_joint_proximal_actuating_hinge" type="revolute">
    <parent link="l_finger_2_link_0"/>
    <child link="l_finger_2_link_proximal_actuating_hinge"/>
    <axis xyz="0 0 1"/>
    <origin rpy="0 0 -2.0906" xyz="0 0 0.01"/>
    <limit effort="100" lower="-3.1416" upper="3.1416" velocity="100"/>
  </joint>
  <gazebo reference="l_finger_2_joint_proximal_actuating_hinge">
    <implicitSpringDamper>1</implicitSpringDamper>
  </gazebo>
  <!-- Joint paraproximal actuating hinge -->
  <joint name="l_finger_2_joint_paraproximal_actuating_hinge" type="revolute">
    <parent link="l_finger_2_link_0"/>
    <child link="l_finger_2_link_paraproximal_actuating_hinge"/>
    <axis xyz="0 0 1"/>
    <origin rpy="0 0 -2.0906" xyz="0 0 -0.01"/>
    <limit effort="100" lower="-3.1416" upper="3.1416" velocity="100"/>
  </joint>
  <gazebo reference="l_finger_2_joint_paraproximal_actuating_hinge">
    <implicitSpringDamper>1</implicitSpringDamper>
  </gazebo>
  <!-- Joint proximal actuating bar -->
  <joint name="l_finger_2_joint_proximal_actuating_bar" type="revolute">
    <parent link="l_finger_2_link_proximal_actuating_hinge"/>
    <child link="l_finger_2_link_proximal_actuating_bar"/>
    <axis xyz="0 0 1"/>
    <origin rpy="0 0 1.8616" xyz="0.02858 0 0"/>
    <limit effort="100" lower="-3.1416" upper="3.1416" velocity="100"/>
  </joint>
  <gazebo reference="l_finger_2_joint_proximal_actuating_bar">
    <implicitSpringDamper>1</implicitSpringDamper>
  </gazebo>
  <!-- Joint paraproximal bar -->
  <joint name="l_finger_2_joint_paraproximal_bar" type="revolute">
    <parent link="l_finger_2_link_paraproximal_actuating_hinge"/>
    <child link="l_finger_2_link_paraproximal_bar"/>
    <axis xyz="0 0 1"/>
    <origin rpy="0 0 1.57" xyz="0.02286 0 0"/>
    <limit effort="100" lower="-3.1416" upper="3.1416" velocity="100"/>
  </joint>
  <gazebo reference="l_finger_2_joint_paraproximal_bar">
    <implicitSpringDamper>1</implicitSpringDamper>
  </gazebo>
  <!-- Joint median actuating hinge -->
  <joint name="l_finger_2_joint_median_actuating_hinge" type="revolute">
    <parent link="l_finger_2_link_1"/>
    <child link="l_finger_2_link_median_actuating_hinge"/>
    <axis xyz="0 0 1"/>
    <origin rpy="0 0 -0.37" xyz="0 0.05715 0.01"/>
    <limit effort="100" lower="-3.1416" upper="3.1416" velocity="100"/>
  </joint>
  <gazebo reference="l_finger_2_joint_median_actuating_hinge">
    <implicitSpringDamper>1</implicitSpringDamper>
  </gazebo>
  <!-- Joint paramedian hinge -->
  <joint name="l_finger_2_joint_paramedian_hinge" type="revolute">
    <parent link="l_finger_2_link_1"/>
    <child link="l_finger_2_link_paramedian_hinge"/>
    <axis xyz="0 0 1"/>
    <!-- -0.37 is hand picked, 0.9719 is hand calculated from atan(0.02381/0.01625) -->
    <origin rpy="0 0 0" xyz="0 0.05715 -0.01"/>
    <limit effort="100" lower="-3.1416" upper="3.1416" velocity="100"/>
  </joint>
  <gazebo reference="l_finger_2_joint_paramedian_hinge">
    <implicitSpringDamper>1</implicitSpringDamper>
  </gazebo>
  <!-- Joint median actuating hinge median bar -->
  <joint name="l_finger_2_joint_median_actuating_hinge_median_bar" type="revolute">
    <parent link="l_finger_2_link_median_actuating_hinge"/>
    <child link="l_finger_2_link_median_bar"/>
    <axis xyz="0 0 1"/>
    <!-- hand calc 90 deg + atan(0.01516/0.01625) -->
    <origin rpy="0 0 2.3215" xyz="0.01625 0.01516 0"/>
    <limit effort="100" lower="-3.1416" upper="3.1416" velocity="100"/>
  </joint>
  <gazebo reference="l_finger_2_joint_median_actuating_hinge_median_bar">
    <implicitSpringDamper>1</implicitSpringDamper>
  </gazebo>
  <!-- Joint paradistal hinge -->
  <joint name="l_finger_2_joint_paradistal_hinge" type="revolute">
    <parent link="l_finger_2_link_2"/>
    <child link="l_finger_2_link_paradistal_hinge"/>
    <axis xyz="0 0 1"/>
    <origin rpy="0 0 0" xyz="0 0.039 -0.01"/>
    <limit effort="100" lower="-3.1416" upper="3.1416" velocity="100"/>
  </joint>
  <gazebo reference="l_finger_2_joint_paradistal_hinge">
    <implicitSpringDamper>1</implicitSpringDamper>
  </gazebo>
  <!-- Joint paramedian hinge median bar underactuated -->
  <joint name="l_finger_2_joint_paramedian_hinge_median_bar_underactuated" type="revolute">
    <parent link="l_finger_2_link_paramedian_hinge"/>
    <child link="l_finger_2_link_median_bar_underactuated"/>
    <axis xyz="0 0 1"/>
    <!-- hand calc 90 deg + atan(0.01227/0.00329) -->
    <origin rpy="0 0 1.5708" xyz="0.01227 0.00329 0"/>
    <limit effort="100" lower="-3.1416" upper="3.1416" velocity="100"/>
  </joint>
  <gazebo reference="l_finger_2_joint_paramedian_hinge_median_bar_underactuated">
    <implicitSpringDamper>1</implicitSpringDamper>
  </gazebo>
  <!-- Joint 1 -->
  <joint name="l_finger_2_joint_1" type="revolute">
    <origin rpy="0 0 -2.0906" xyz="0 0 0"/>
    <axis xyz="0 0 1"/>
    <parent link="l_finger_2_link_0"/>
    <child link="l_finger_2_link_1"/>
    <dynamics damping="1" friction="0"/>
    <!-- Limits: [0deg.,70deg.] -->
    <limit effort="60" lower="0" upper="1.2217" velocity="-1"/>
  </joint>
  <gazebo reference="l_finger_2_joint_1">
    <implicitSpringDamper>1</implicitSpringDamper>
  </gazebo>
  <!-- Joint 2 -->
  <joint name="l_finger_2_joint_2" type="revolute">
    <parent link="l_finger_2_link_1"/>
    <child link="l_finger_2_link_2"/>
    <dynamics damping="1" friction="0"/>
    <axis xyz="0 0 1"/>
    <origin rpy="0 0 0" xyz="0 0.05715 0"/>
    <!-- Limits: [0deg.,90deg.] -->
    <limit effort="60" lower="0" upper="1.5708" velocity="-1"/>
  </joint>
  <gazebo reference="l_finger_2_joint_2">
    <implicitSpringDamper>1</implicitSpringDamper>
  </gazebo>
  <!-- Joint 3 -->
  <joint name="l_finger_2_joint_3" type="revolute">
    <parent link="l_finger_2_link_2"/>
    <child link="l_finger_2_link_3"/>
    <dynamics damping="1" friction="0"/>
    <axis xyz="0 0 1"/>
    <origin rpy="0 0 2.0906" xyz="0 0.039 0"/>
    <!-- Limits: [-38deg.,60deg.] -->
    <limit effort="60" lower="-0.6632" upper="1.0471" velocity="-1"/>
  </joint>
  <gazebo reference="l_finger_2_joint_3">
    <implicitSpringDamper>1</implicitSpringDamper>
  </gazebo>
  <!-- end of joint list -->
  <!-- coupling joints in sdf -->
  <gazebo>
    <joint name="l_finger_2_link_proximal_actuating_bar_median_actuating_hinge_couple" type="revolute">
      <parent>l_finger_2_link_median_actuating_hinge</parent>
      <child>l_finger_2_link_proximal_actuating_bar</child>
      <pose>0.05398 0 0 0 0 0</pose>
      <axis>
        <dynamics>
          <damping>0</damping>
          <friction>0</friction>
        </dynamics>
        <xyz>0 0 1</xyz>
        <!-- <use_parent_model_frame>false</use_parent_model_frame> -->
      </axis>
    </joint>
  </gazebo>
  <gazebo reference="l_finger_2_link_proximal_actuating_bar_median_actuating_hinge_couple">
    <implicitSpringDamper>1</implicitSpringDamper>
  </gazebo>
  <gazebo>
    <joint name="l_finger_2_link_median_bar_link_3_couple" type="revolute">
      <parent>l_finger_2_link_3</parent>
      <child>l_finger_2_link_median_bar</child>
      <pose>0.0381 0 0 0 0 0</pose>
      <axis>
        <dynamics>
          <damping>0</damping>
          <friction>0</friction>
        </dynamics>
        <xyz>0 0 1</xyz>
        <!-- <use_parent_model_frame>false</use_parent_model_frame> -->
      </axis>
    </joint>
  </gazebo>
  <gazebo reference="l_finger_2_link_median_bar_link_3_couple">
    <implicitSpringDamper>1</implicitSpringDamper>
  </gazebo>
  <gazebo>
    <joint name="l_finger_2_link_paramedian_bar_paradistal_hinge_couple" type="revolute">
      <parent>l_finger_2_link_paradistal_hinge</parent>
      <child>l_finger_2_link_median_bar_underactuated</child>
      <pose>0.0381 0 0 0 0 0</pose>
      <axis>
        <dynamics>
          <damping>0</damping>
          <friction>0</friction>
        </dynamics>
        <xyz>0 0 1</xyz>
        <!-- <use_parent_model_frame>false</use_parent_model_frame> -->
      </axis>
    </joint>
  </gazebo>
  <gazebo reference="l_finger_2_link_median_bar_link_3_couple">
    <implicitSpringDamper>1</implicitSpringDamper>
  </gazebo>
  <gazebo>
    <joint name="l_finger_2_link_paradistal_hinge_link_3_couple" type="revolute">
      <parent>l_finger_2_link_paradistal_hinge</parent>
      <child>l_finger_2_link_3</child>
      <pose>0.0381 0 0 0 0 0</pose>
      <axis>
        <dynamics>
          <damping>0</damping>
          <friction>0</friction>
        </dynamics>
        <xyz>0 0 1</xyz>
        <!-- <use_parent_model_frame>false</use_parent_model_frame> -->
      </axis>
    </joint>
  </gazebo>
  <gazebo reference="l_finger_2_link_paradistal_hinge_link_3_couple">
    <implicitSpringDamper>1</implicitSpringDamper>
  </gazebo>
  <gazebo>
    <joint name="l_finger_2_link_paraproximal_bar_paramedian_hinge_couple" type="revolute">
      <parent>l_finger_2_link_paramedian_hinge</parent>
      <child>l_finger_2_link_paraproximal_bar</child>
      <pose>0.05770 0 0 0 0 0</pose>
      <axis>
        <dynamics>
          <damping>0</damping>
          <friction>0</friction>
        </dynamics>
        <xyz>0 0 1</xyz>
        <!-- <use_parent_model_frame>false</use_parent_model_frame> -->
      </axis>
    </joint>
  </gazebo>
  <gazebo reference="l_finger_2_link_paraproximal_bar_paramedian_hinge_couple">
    <implicitSpringDamper>1</implicitSpringDamper>
  </gazebo>
  <!-- Link list -->
  <!-- Link 0 -->
  <link name="l_finger_middle_link_0">
    <visual>
      <origin rpy="0 0 0" xyz="0 0 0"/>
      <geometry>
        <mesh filename="package://robotiq_hand_description/meshes/s-model_articulated/visual/link_0.STL"/>
      </geometry>
      <material name="black"><color rgba="0 0 0 1" /></material>
    </visual>
    <collision>
      <origin rpy="0 0 0" xyz="0 0 0"/>
      <geometry>
        <mesh filename="package://robotiq_hand_description/meshes/s-model_articulated/collision/link_0.STL"/>
      </geometry>
      <material name="yellow">
        <color rgba="0 1 1 1"/>
      </material>
    </collision>
    <inertial>
      <mass value="0.1"/>
      <origin xyz="-0.01 0 0"/>
      <inertia ixx="0.000018" ixy="0" ixz="0" iyy="0.000025" iyz="0" izz="0.000025"/>
    </inertial>
  </link>
  <gazebo reference="l_finger_middle_link_0">
    <mu1>1.1</mu1>
    <mu2>1.1</mu2>
  </gazebo>
  <!-- Link 1 -->
  <link name="l_finger_middle_link_1">
    <visual>
      <origin rpy="0 0 1.5708" xyz="0 0.05717 0"/>
      <geometry>
        <mesh filename="package://robotiq_hand_description/meshes/s-model_articulated/visual/link_1.STL"/>
      </geometry>
      <material name="Gazebo/LightGrey"><color rgba=".7 .7 .7 1.0" /></material>
    </visual>
    <collision>
      <origin rpy="0 0 1.5708" xyz="0 0.05717 0"/>
      <geometry>
        <mesh filename="package://robotiq_hand_description/meshes/s-model_articulated/collision/link_1.STL"/>
      </geometry>
      <material name="yellow">
        <color rgba="0 1 1 1"/>
      </material>
    </collision>
    <inertial>
      <origin rpy="0 0 1.5708" xyz="0.00053 0.03218 0"/>
      <mass value="0.047"/>
      <inertia ixx="0.00000499332" ixy="0.00000091312" ixz="-0.00000000120" iyy="0.00006434531" iyz="-0.00000000007" izz="0.00006061917"/>
    </inertial>
  </link>
  <gazebo reference="l_finger_middle_link_1">
    <mu1>1.1</mu1>
    <mu2>1.1</mu2>
  </gazebo>
  <!-- Link 2 -->
  <link name="l_finger_middle_link_2">
    <visual>
      <origin rpy="0 0 1.5708" xyz="0 0.03810 0.0075"/>
      <geometry>
        <mesh filename="package://robotiq_hand_description/meshes/s-model_articulated/visual/link_2.STL"/>
      </geometry>
      <material name="Gazebo/LightGrey"><color rgba=".7 .7 .7 1.0" /></material>
    </visual>
    <collision>
      <origin rpy="0 0 1.5708" xyz="0 0.03810 0.0075"/>
      <geometry>
        <mesh filename="package://robotiq_hand_description/meshes/s-model_articulated/collision/link_2.STL"/>
      </geometry>
      <material name="yellow"><color rgba="1 1 0 1" /></material>
    </collision>
    <inertial>
      <origin rpy="0 0 1.5708" xyz="0.00048 0.02167 0.00018"/>
      <mass value="0.03284"/>
      <inertia ixx="0.00000348008" ixy="0.00000031940" ixz="0.00000013041" iyy="0.00002248123" iyz="0.00000000291" izz="0.00001986346"/>
    </inertial>
  </link>
  <gazebo reference="l_finger_middle_link_2">
    <mu1>1.1</mu1>
    <mu2>1.1</mu2>
  </gazebo>
  <!-- Link 3 -->
  <link name="l_finger_middle_link_3">
    <visual>
      <origin rpy="0 0 0" xyz="0 0 0"/>
      <geometry>
        <mesh filename="package://robotiq_hand_description/meshes/s-model_articulated/visual/link_3.STL"/>
      </geometry>
      <material name="Gazebo/LightGrey"><color rgba=".7 .7 .7 1.0" /></material>
    </visual>
    <collision>
      <origin rpy="0 0 0" xyz="0 0 0"/>
      <geometry>
        <mesh filename="package://robotiq_hand_description/meshes/s-model_articulated/collision/link_3.STL"/>
      </geometry>
      <material name="yellow"><color rgba="1 1 0 1" /></material>
    </collision>
    <inertial>
      <origin rpy="0 0 0" xyz="0.01626 0.00049 0.0002"/>
      <mass value="0.03354"/>
      <inertia ixx="0.00000305151" ixy="0.00000089792" ixz="0.00000000249" iyy="0.00001427978" iyz="-0.00000001191" izz="0.00001264126"/>
    </inertial>
  </link>
  <gazebo reference="l_finger_middle_link_3">
    <mu1>1.1</mu1>
    <mu2>1.1</mu2>
  </gazebo>
  <!-- Link proximal actuating hinge -->
  <link name="l_finger_middle_link_proximal_actuating_hinge">
    <visual>
      <origin rpy="0 0 0" xyz="0.01429 0 0"/>
      <geometry>
        <box size="0.02858 .0075 .002"/>
      </geometry>
    </visual>
    <collision>
      <origin rpy="0 0 0" xyz="0.01429 0 0"/>
      <geometry>
        <box size="0.02858 .0075 .002"/>
      </geometry>
    </collision>
    <inertial>
      <origin rpy="0 0 0" xyz="0.0012 -0.00162 -0.00161"/>
      <mass value="0.02647"/>
      <inertia ixx="0.00000156447" ixy="0.000000236226" ixz="-0.00000014862" iyy="0.00000221068" iyz="-0.00000014369" izz="0.00000323175"/>
    </inertial>
  </link>
  <gazebo reference="l_finger_middle_link_proximal_actuating_hinge">
    <mu1>1.1</mu1>
    <mu2>1.1</mu2>
  </gazebo>
  <!-- Link paraproximal actuating hinge -->
  <link name="l_finger_middle_link_paraproximal_actuating_hinge">
    <visual>
      <origin rpy="0 0 0" xyz="0.01143 0 0"/>
      <geometry>
        <box size="0.02286 .0075 .002"/>
      </geometry>
    </visual>
    <collision>
      <origin rpy="0 0 0" xyz="0.01143 0 0"/>
      <geometry>
        <box size="0.02286 .0075 .002"/>
      </geometry>
    </collision>
    <inertial>
      <origin rpy="0 0 0" xyz="0.0064 0 0"/>
      <!-- copied from proximal_actuating_hinge -->
      <mass value="0.00362"/>
      <inertia ixx="0.00000012043" ixy="0" ixz="0" iyy="0.00000053588" iyz="0" izz="0.00000065322"/>
    </inertial>
  </link>
  <gazebo reference="l_finger_middle_link_paraproximal_actuating_hinge">
    <mu1>1.1</mu1>
    <mu2>1.1</mu2>
  </gazebo>
  <!-- Link proximal actuating bar -->
  <link name="l_finger_middle_link_proximal_actuating_bar">
    <visual>
      <origin rpy="0 0 0" xyz="0.026789 0 0"/>
      <geometry>
        <box size="0.05398 .0075 .002"/>
      </geometry>
    </visual>
    <collision>
      <origin rpy="0 0 0" xyz="0.026789 0 0"/>
      <geometry>
        <box size="0.05398 .0075 .002"/>
      </geometry>
    </collision>
    <inertial>
      <origin rpy="0 0 0" xyz="0.02699 -0.00122 0"/>
      <mass value="0.00659"/>
      <inertia ixx="0.00000008348" ixy="-0.0000002179" ixz="0.00000000134" iyy="0.00000719076" iyz="0" izz="0.00000718272"/>
    </inertial>
  </link>
  <gazebo reference="l_finger_middle_link_proximal_actuating_bar">
    <mu1>1.1</mu1>
    <mu2>1.1</mu2>
  </gazebo>
  <!-- Link paraproximal bar -->
  <link name="l_finger_middle_link_paraproximal_bar">
    <visual>
      <origin rpy="0 0 0" xyz="0.02885 0 0"/>
      <geometry>
        <box size="0.05770 .0075 .002"/>
      </geometry>
    </visual>
    <collision>
      <origin rpy="0 0 0" xyz="0.02885 0 0"/>
      <geometry>
        <box size="0.05770 .0075 .002"/>
      </geometry>
    </collision>
    <inertial>
      <origin rpy="0 0 0" xyz="0.02858 -0.00129 0"/>
      <mass value="0.00732"/>
      <inertia ixx="0.00000009065" ixy="-0.00000027047" ixz="0.00000000142" iyy="0.00000878034" iyz="0" izz="0.00000877558"/>
    </inertial>
  </link>
  <gazebo reference="l_finger_middle_link_paraproximal_bar">
    <mu1>1.1</mu1>
    <mu2>1.1</mu2>
  </gazebo>
  <!-- Link median actuating hinge -->
  <link name="l_finger_middle_link_median_actuating_hinge">
    <visual>
      <origin rpy="0 0 0" xyz="0 0 0"/>
      <geometry>
        <box size=".02 .02 .002"/>
      </geometry>
    </visual>
    <collision>
      <origin rpy="0 0 0" xyz="0 0 0"/>
      <geometry>
        <box size=".02 .02 .002"/>
      </geometry>
    </collision>
    <inertial>
      <origin rpy="0 0 0" xyz="0.0092 0.00514 0"/>
      <mass value="0.00359"/>
      <inertia ixx="0.00000024735" ixy="0.00000023619" ixz="0" iyy="0.00000047681" iyz="0" izz="0.00000071813"/>
    </inertial>
  </link>
  <gazebo reference="l_finger_middle_link_median_actuating_hinge">
    <mu1>1.1</mu1>
    <mu2>1.1</mu2>
  </gazebo>
  <!-- Link median bar -->
  <link name="l_finger_middle_link_median_bar">
    <visual>
      <origin rpy="0 0 0" xyz="0.01905 0 0"/>
      <geometry>
        <box size="0.0381 .0075 .002"/>
      </geometry>
    </visual>
    <collision>
      <origin rpy="0 0 0" xyz="0.01905 0 0"/>
      <geometry>
        <box size="0.0381 .0075 .002"/>
      </geometry>
    </collision>
    <inertial>
      <origin rpy="0 0 0" xyz="0.01905 -0.00107 0"/>
      <mass value="0.00538"/>
      <inertia ixx="0.00000006639" ixy="-0.00000010996" ixz="0.00000000094" iyy="0.00000305318" iyz="0" izz="0.00000304657"/>
    </inertial>
  </link>
  <gazebo reference="l_finger_middle_link_median_bar">
    <mu1>1.1</mu1>
    <mu2>1.1</mu2>
  </gazebo>
  <!-- Link paramedian hinge -->
  <link name="l_finger_middle_link_paramedian_hinge">
    <visual>
      <origin rpy="0 0 0" xyz="0 0 0"/>
      <geometry>
        <box size=".02 .02 .002"/>
      </geometry>
    </visual>
    <collision>
      <origin rpy="0 0 0" xyz="0 0 0"/>
      <geometry>
        <box size=".02 .02 .002"/>
      </geometry>
    </collision>
    <inertial>
      <origin rpy="0 0 0" xyz="-0.01025 0.00046 0"/>
      <mass value="0.00276"/>
      <inertia ixx="0.00000004213" ixy="-0.00000001491" ixz="0" iyy="0.00000050258" iyz="0" izz="0.00000054007"/>
    </inertial>
  </link>
  <gazebo reference="l_finger_middle_link_paramedian_hinge">
    <mu1>1.1</mu1>
    <mu2>1.1</mu2>
  </gazebo>
  <!-- Link median bar underactuated -->
  <link name="l_finger_middle_link_median_bar_underactuated">
    <visual>
      <origin rpy="0 0 0" xyz="0.01905 0 0"/>
      <geometry>
        <box size="0.0381 .0075 .002"/>
      </geometry>
    </visual>
    <collision>
      <origin rpy="0 0 0" xyz="0.01905 0 0"/>
      <geometry>
        <box size="0.0381 .0075 .002"/>
      </geometry>
    </collision>
    <inertial>
      <origin rpy="0 0 0" xyz="0.01905 -0.00107 0"/>
      <mass value="0.00538"/>
      <inertia ixx="0.00000006639" ixy="-0.00000010996" ixz="-0.00000000094" iyy="0.00000305318" iyz="0" izz="0.00000304657"/>
    </inertial>
  </link>
  <gazebo reference="l_finger_middle_link_median_bar_underactuated">
    <mu1>1.1</mu1>
    <mu2>1.1</mu2>
  </gazebo>
  <!-- Link paradistal hinge -->
  <link name="l_finger_middle_link_paradistal_hinge">
    <visual>
      <origin rpy="0 0 0" xyz="0 0 0"/>
      <geometry>
        <box size=".02 .02 .002"/>
      </geometry>
    </visual>
    <collision>
      <origin rpy="0 0 0" xyz="0 0 0"/>
      <geometry>
        <box size=".02 0.02 .002"/>
      </geometry>
    </collision>
    <inertial>
      <origin rpy="0 0 0" xyz="0.00548 0 0"/>
      <mass value="0.00158"/>
      <inertia ixx="0.00000001907" ixy="0" ixz="0" iyy="0.00000010970" iyz="0" izz="0.00000012610"/>
    </inertial>
  </link>
  <gazebo reference="l_finger_middle_link_paradistal_hinge">
    <mu1>1.1</mu1>
    <mu2>1.1</mu2>
  </gazebo>
  <!-- End of link list -->
  <!-- Joint list -->
  <!-- Joint proximal actuating hinge -->
  <joint name="l_finger_middle_joint_proximal_actuating_hinge" type="revolute">
    <parent link="l_finger_middle_link_0"/>
    <child link="l_finger_middle_link_proximal_actuating_hinge"/>
    <axis xyz="0 0 1"/>
    <origin rpy="0 0 -2.0906" xyz="0 0 0.01"/>
    <limit effort="100" lower="-3.1416" upper="3.1416" velocity="100"/>
  </joint>
  <gazebo reference="l_finger_middle_joint_proximal_actuating_hinge">
    <implicitSpringDamper>1</implicitSpringDamper>
  </gazebo>
  <!-- Joint paraproximal actuating hinge -->
  <joint name="l_finger_middle_joint_paraproximal_actuating_hinge" type="revolute">
    <parent link="l_finger_middle_link_0"/>
    <child link="l_finger_middle_link_paraproximal_actuating_hinge"/>
    <axis xyz="0 0 1"/>
    <origin rpy="0 0 -2.0906" xyz="0 0 -0.01"/>
    <limit effort="100" lower="-3.1416" upper="3.1416" velocity="100"/>
  </joint>
  <gazebo reference="l_finger_middle_joint_paraproximal_actuating_hinge">
    <implicitSpringDamper>1</implicitSpringDamper>
  </gazebo>
  <!-- Joint proximal actuating bar -->
  <joint name="l_finger_middle_joint_proximal_actuating_bar" type="revolute">
    <parent link="l_finger_middle_link_proximal_actuating_hinge"/>
    <child link="l_finger_middle_link_proximal_actuating_bar"/>
    <axis xyz="0 0 1"/>
    <origin rpy="0 0 1.8616" xyz="0.02858 0 0"/>
    <limit effort="100" lower="-3.1416" upper="3.1416" velocity="100"/>
  </joint>
  <gazebo reference="l_finger_middle_joint_proximal_actuating_bar">
    <implicitSpringDamper>1</implicitSpringDamper>
  </gazebo>
  <!-- Joint paraproximal bar -->
  <joint name="l_finger_middle_joint_paraproximal_bar" type="revolute">
    <parent link="l_finger_middle_link_paraproximal_actuating_hinge"/>
    <child link="l_finger_middle_link_paraproximal_bar"/>
    <axis xyz="0 0 1"/>
    <origin rpy="0 0 1.57" xyz="0.02286 0 0"/>
    <limit effort="100" lower="-3.1416" upper="3.1416" velocity="100"/>
  </joint>
  <gazebo reference="l_finger_middle_joint_paraproximal_bar">
    <implicitSpringDamper>1</implicitSpringDamper>
  </gazebo>
  <!-- Joint median actuating hinge -->
  <joint name="l_finger_middle_joint_median_actuating_hinge" type="revolute">
    <parent link="l_finger_middle_link_1"/>
    <child link="l_finger_middle_link_median_actuating_hinge"/>
    <axis xyz="0 0 1"/>
    <origin rpy="0 0 -0.37" xyz="0 0.05715 0.01"/>
    <limit effort="100" lower="-3.1416" upper="3.1416" velocity="100"/>
  </joint>
  <gazebo reference="l_finger_middle_joint_median_actuating_hinge">
    <implicitSpringDamper>1</implicitSpringDamper>
  </gazebo>
  <!-- Joint paramedian hinge -->
  <joint name="l_finger_middle_joint_paramedian_hinge" type="revolute">
    <parent link="l_finger_middle_link_1"/>
    <child link="l_finger_middle_link_paramedian_hinge"/>
    <axis xyz="0 0 1"/>
    <!-- -0.37 is hand picked, 0.9719 is hand calculated from atan(0.02381/0.01625) -->
    <origin rpy="0 0 0" xyz="0 0.05715 -0.01"/>
    <limit effort="100" lower="-3.1416" upper="3.1416" velocity="100"/>
  </joint>
  <gazebo reference="l_finger_middle_joint_paramedian_hinge">
    <implicitSpringDamper>1</implicitSpringDamper>
  </gazebo>
  <!-- Joint median actuating hinge median bar -->
  <joint name="l_finger_middle_joint_median_actuating_hinge_median_bar" type="revolute">
    <parent link="l_finger_middle_link_median_actuating_hinge"/>
    <child link="l_finger_middle_link_median_bar"/>
    <axis xyz="0 0 1"/>
    <!-- hand calc 90 deg + atan(0.01516/0.01625) -->
    <origin rpy="0 0 2.3215" xyz="0.01625 0.01516 0"/>
    <limit effort="100" lower="-3.1416" upper="3.1416" velocity="100"/>
  </joint>
  <gazebo reference="l_finger_middle_joint_median_actuating_hinge_median_bar">
    <implicitSpringDamper>1</implicitSpringDamper>
  </gazebo>
  <!-- Joint paradistal hinge -->
  <joint name="l_finger_middle_joint_paradistal_hinge" type="revolute">
    <parent link="l_finger_middle_link_2"/>
    <child link="l_finger_middle_link_paradistal_hinge"/>
    <axis xyz="0 0 1"/>
    <origin rpy="0 0 0" xyz="0 0.039 -0.01"/>
    <limit effort="100" lower="-3.1416" upper="3.1416" velocity="100"/>
  </joint>
  <gazebo reference="l_finger_middle_joint_paradistal_hinge">
    <implicitSpringDamper>1</implicitSpringDamper>
  </gazebo>
  <!-- Joint paramedian hinge median bar underactuated -->
  <joint name="l_finger_middle_joint_paramedian_hinge_median_bar_underactuated" type="revolute">
    <parent link="l_finger_middle_link_paramedian_hinge"/>
    <child link="l_finger_middle_link_median_bar_underactuated"/>
    <axis xyz="0 0 1"/>
    <!-- hand calc 90 deg + atan(0.01227/0.00329) -->
    <origin rpy="0 0 1.5708" xyz="0.01227 0.00329 0"/>
    <limit effort="100" lower="-3.1416" upper="3.1416" velocity="100"/>
  </joint>
  <gazebo reference="l_finger_middle_joint_paramedian_hinge_median_bar_underactuated">
    <implicitSpringDamper>1</implicitSpringDamper>
  </gazebo>
  <!-- Joint 1 -->
  <joint name="l_finger_middle_joint_1" type="revolute">
    <origin rpy="0 0 -2.0906" xyz="0 0 0"/>
    <axis xyz="0 0 1"/>
    <parent link="l_finger_middle_link_0"/>
    <child link="l_finger_middle_link_1"/>
    <dynamics damping="1" friction="0"/>
    <!-- Limits: [0deg.,70deg.] -->
    <limit effort="60" lower="0" upper="1.2217" velocity="-1"/>
  </joint>
  <gazebo reference="l_finger_middle_joint_1">
    <implicitSpringDamper>1</implicitSpringDamper>
  </gazebo>
  <!-- Joint 2 -->
  <joint name="l_finger_middle_joint_2" type="revolute">
    <parent link="l_finger_middle_link_1"/>
    <child link="l_finger_middle_link_2"/>
    <dynamics damping="1" friction="0"/>
    <axis xyz="0 0 1"/>
    <origin rpy="0 0 0" xyz="0 0.05715 0"/>
    <!-- Limits: [0deg.,90deg.] -->
    <limit effort="60" lower="0" upper="1.5708" velocity="-1"/>
  </joint>
  <gazebo reference="l_finger_middle_joint_2">
    <implicitSpringDamper>1</implicitSpringDamper>
  </gazebo>
  <!-- Joint 3 -->
  <joint name="l_finger_middle_joint_3" type="revolute">
    <parent link="l_finger_middle_link_2"/>
    <child link="l_finger_middle_link_3"/>
    <dynamics damping="1" friction="0"/>
    <axis xyz="0 0 1"/>
    <origin rpy="0 0 2.0906" xyz="0 0.039 0"/>
    <!-- Limits: [-38deg.,60deg.] -->
    <limit effort="60" lower="-0.6632" upper="1.0471" velocity="-1"/>
  </joint>
  <gazebo reference="l_finger_middle_joint_3">
    <implicitSpringDamper>1</implicitSpringDamper>
  </gazebo>
  <!-- end of joint list -->
  <!-- coupling joints in sdf -->
  <gazebo>
    <joint name="l_finger_middle_link_proximal_actuating_bar_median_actuating_hinge_couple" type="revolute">
      <parent>l_finger_middle_link_median_actuating_hinge</parent>
      <child>l_finger_middle_link_proximal_actuating_bar</child>
      <pose>0.05398 0 0 0 0 0</pose>
      <axis>
        <dynamics>
          <damping>0</damping>
          <friction>0</friction>
        </dynamics>
        <xyz>0 0 1</xyz>
        <!-- <use_parent_model_frame>false</use_parent_model_frame> -->
      </axis>
    </joint>
  </gazebo>
  <gazebo reference="l_finger_middle_link_proximal_actuating_bar_median_actuating_hinge_couple">
    <implicitSpringDamper>1</implicitSpringDamper>
  </gazebo>
  <gazebo>
    <joint name="l_finger_middle_link_median_bar_link_3_couple" type="revolute">
      <parent>l_finger_middle_link_3</parent>
      <child>l_finger_middle_link_median_bar</child>
      <pose>0.0381 0 0 0 0 0</pose>
      <axis>
        <dynamics>
          <damping>0</damping>
          <friction>0</friction>
        </dynamics>
        <xyz>0 0 1</xyz>
        <!-- <use_parent_model_frame>false</use_parent_model_frame> -->
      </axis>
    </joint>
  </gazebo>
  <gazebo reference="l_finger_middle_link_median_bar_link_3_couple">
    <implicitSpringDamper>1</implicitSpringDamper>
  </gazebo>
  <gazebo>
    <joint name="l_finger_middle_link_paramedian_bar_paradistal_hinge_couple" type="revolute">
      <parent>l_finger_middle_link_paradistal_hinge</parent>
      <child>l_finger_middle_link_median_bar_underactuated</child>
      <pose>0.0381 0 0 0 0 0</pose>
      <axis>
        <dynamics>
          <damping>0</damping>
          <friction>0</friction>
        </dynamics>
        <xyz>0 0 1</xyz>
        <!-- <use_parent_model_frame>false</use_parent_model_frame> -->
      </axis>
    </joint>
  </gazebo>
  <gazebo reference="l_finger_middle_link_median_bar_link_3_couple">
    <implicitSpringDamper>1</implicitSpringDamper>
  </gazebo>
  <gazebo>
    <joint name="l_finger_middle_link_paradistal_hinge_link_3_couple" type="revolute">
      <parent>l_finger_middle_link_paradistal_hinge</parent>
      <child>l_finger_middle_link_3</child>
      <pose>0.0381 0 0 0 0 0</pose>
      <axis>
        <dynamics>
          <damping>0</damping>
          <friction>0</friction>
        </dynamics>
        <xyz>0 0 1</xyz>
        <!-- <use_parent_model_frame>false</use_parent_model_frame> -->
      </axis>
    </joint>
  </gazebo>
  <gazebo reference="l_finger_middle_link_paradistal_hinge_link_3_couple">
    <implicitSpringDamper>1</implicitSpringDamper>
  </gazebo>
  <gazebo>
    <joint name="l_finger_middle_link_paraproximal_bar_paramedian_hinge_couple" type="revolute">
      <parent>l_finger_middle_link_paramedian_hinge</parent>
      <child>l_finger_middle_link_paraproximal_bar</child>
      <pose>0.05770 0 0 0 0 0</pose>
      <axis>
        <dynamics>
          <damping>0</damping>
          <friction>0</friction>
        </dynamics>
        <xyz>0 0 1</xyz>
        <!-- <use_parent_model_frame>false</use_parent_model_frame> -->
      </axis>
    </joint>
  </gazebo>
  <gazebo reference="l_finger_middle_link_paraproximal_bar_paramedian_hinge_couple">
    <implicitSpringDamper>1</implicitSpringDamper>
  </gazebo>
  <!-- link list -->
  <!-- Link palm -->
  <link name="l_palm">
    <visual>
      <geometry>
        <mesh filename="package://robotiq_hand_description/meshes/s-model_articulated/visual/palm.STL"/>
      </geometry>
      <material name="black"><color rgba="0 0 0 1" /></material>
    </visual>
    <!-- Simple shape collision -->
    <collision>
      <origin rpy="0 0 0" xyz="0 0 0"/>
      <geometry>
        <box size="0.1 0.1 0.1"/>
      </geometry>
      <material name="yellow">
        <color rgba="0 1 1 1"/>
      </material>
    </collision>
    <inertial>
      <origin rpy="0 0 0" xyz="0 0 0"/>
      <mass value="1.3"/>
      <inertia ixx="0.0035" ixy="0" ixz="-0" iyy="0.0035" iyz="0" izz="0.0035"/>
    </inertial>
  </link>
  <gazebo reference="l_palm">
    <mu1>1.1</mu1>
    <mu2>1.1</mu2>
  </gazebo>
  <!-- End of link list -->
  <!-- Joint list -->
  <!-- Joint palm_finger_1_joint -->
  <joint name="l_palm_finger_1_joint" type="revolute">
    <parent link="l_palm"/>
    <child link="l_finger_1_link_0"/>
    <dynamics damping="1" friction="0"/>
    <axis xyz="0 1 0"/>
    <origin rpy="0 3.1416 -1.57" xyz="-0.0455 0.0214 0.036"/>
    <!-- Limits: [-17deg.,17deg.] -->
    <limit effort="60" lower="-0.2967" upper="0.2967" velocity="-1"/>
  </joint>
  <gazebo reference="l_palm_finger_1_joint">
    <implicitSpringDamper>1</implicitSpringDamper>
  </gazebo>
  <!-- Joint palm_finger_2_joint -->
  <joint name="l_palm_finger_2_joint" type="revolute">
    <parent link="l_palm"/>
    <child link="l_finger_2_link_0"/>
    <dynamics damping="1" friction="0"/>
    <axis xyz="0 1 0"/>
    <origin rpy="0 3.1416 -1.57" xyz="-0.0455 0.0214 -0.036"/>
    <!-- Limits: [-17deg.,17deg.] -->
    <limit effort="60" lower="-0.2967" upper="0.2967" velocity="-1"/>
  </joint>
  <gazebo reference="l_palm_finger_2_joint">
    <implicitSpringDamper>1</implicitSpringDamper>
  </gazebo>
  <!-- Joint palm_finger_middle_joint -->
  <joint name="l_palm_finger_middle_joint" type="revolute">
    <parent link="l_palm"/>
    <child link="l_finger_middle_link_0"/>
    <dynamics damping="1" friction="0"/>
    <axis xyz="0 1 0"/>
    <origin rpy="0 0 1.57" xyz="0.0455 0.0214 0"/>
    <limit effort="60" lower="0" upper="0" velocity="-1"/>
  </joint>
  <gazebo reference="l_palm_finger_middle_joint">
    <implicitSpringDamper>1</implicitSpringDamper>
  </gazebo>
  <!-- end of joint list -->
  <!-- joint attaching parent link to robotiq hand -->
  <joint name="r_robotiq_hand_joint" type="fixed">
    <origin rpy="1.57 0 2.355" xyz="0 0 0.05398"/>
    <parent link="r_robotiq_fts300_fts_toolside"/>
    <child link="r_palm"/>
  </joint>
  <!-- Insert the fingers -->
  <!-- Link list -->
  <!-- Link 0 -->
  <link name="r_finger_1_link_0">
    <visual>
      <origin rpy="0 0 0" xyz="0 0 0"/>
      <geometry>
        <mesh filename="package://robotiq_hand_description/meshes/s-model_articulated/visual/link_0.STL"/>
      </geometry>
      <material name="black"><color rgba="0 0 0 1" /></material>
    </visual>
    <collision>
      <origin rpy="0 0 0" xyz="0 0 0"/>
      <geometry>
        <mesh filename="package://robotiq_hand_description/meshes/s-model_articulated/collision/link_0.STL"/>
      </geometry>
      <material name="yellow">
        <color rgba="0 1 1 1"/>
      </material>
    </collision>
    <inertial>
      <mass value="0.1"/>
      <origin xyz="-0.01 0 0"/>
      <inertia ixx="0.000018" ixy="0" ixz="0" iyy="0.000025" iyz="0" izz="0.000025"/>
    </inertial>
  </link>
  <gazebo reference="r_finger_1_link_0">
    <mu1>1.1</mu1>
    <mu2>1.1</mu2>
  </gazebo>
  <!-- Link 1 -->
  <link name="r_finger_1_link_1">
    <visual>
      <origin rpy="0 0 1.5708" xyz="0 0.05717 0"/>
      <geometry>
        <mesh filename="package://robotiq_hand_description/meshes/s-model_articulated/visual/link_1.STL"/>
      </geometry>
      <material name="Gazebo/LightGrey"><color rgba=".7 .7 .7 1.0" /></material>
    </visual>
    <collision>
      <origin rpy="0 0 1.5708" xyz="0 0.05717 0"/>
      <geometry>
        <mesh filename="package://robotiq_hand_description/meshes/s-model_articulated/collision/link_1.STL"/>
      </geometry>
      <material name="yellow">
        <color rgba="0 1 1 1"/>
      </material>
    </collision>
    <inertial>
      <origin rpy="0 0 1.5708" xyz="0.00053 0.03218 0"/>
      <mass value="0.047"/>
      <inertia ixx="0.00000499332" ixy="0.00000091312" ixz="-0.00000000120" iyy="0.00006434531" iyz="-0.00000000007" izz="0.00006061917"/>
    </inertial>
  </link>
  <gazebo reference="r_finger_1_link_1">
    <mu1>1.1</mu1>
    <mu2>1.1</mu2>
  </gazebo>
  <!-- Link 2 -->
  <link name="r_finger_1_link_2">
    <visual>
      <origin rpy="0 0 1.5708" xyz="0 0.03810 0.0075"/>
      <geometry>
        <mesh filename="package://robotiq_hand_description/meshes/s-model_articulated/visual/link_2.STL"/>
      </geometry>
      <material name="Gazebo/LightGrey"><color rgba=".7 .7 .7 1.0" /></material>
    </visual>
    <collision>
      <origin rpy="0 0 1.5708" xyz="0 0.03810 0.0075"/>
      <geometry>
        <mesh filename="package://robotiq_hand_description/meshes/s-model_articulated/collision/link_2.STL"/>
      </geometry>
      <material name="yellow"><color rgba="1 1 0 1" /></material>
    </collision>
    <inertial>
      <origin rpy="0 0 1.5708" xyz="0.00048 0.02167 0.00018"/>
      <mass value="0.03284"/>
      <inertia ixx="0.00000348008" ixy="0.00000031940" ixz="0.00000013041" iyy="0.00002248123" iyz="0.00000000291" izz="0.00001986346"/>
    </inertial>
  </link>
  <gazebo reference="r_finger_1_link_2">
    <mu1>1.1</mu1>
    <mu2>1.1</mu2>
  </gazebo>
  <!-- Link 3 -->
  <link name="r_finger_1_link_3">
    <visual>
      <origin rpy="0 0 0" xyz="0 0 0"/>
      <geometry>
        <mesh filename="package://robotiq_hand_description/meshes/s-model_articulated/visual/link_3.STL"/>
      </geometry>
      <material name="Gazebo/LightGrey"><color rgba=".7 .7 .7 1.0" /></material>
    </visual>
    <collision>
      <origin rpy="0 0 0" xyz="0 0 0"/>
      <geometry>
        <mesh filename="package://robotiq_hand_description/meshes/s-model_articulated/collision/link_3.STL"/>
      </geometry>
      <material name="yellow"><color rgba="1 1 0 1" /></material>
    </collision>
    <inertial>
      <origin rpy="0 0 0" xyz="0.01626 0.00049 0.0002"/>
      <mass value="0.03354"/>
      <inertia ixx="0.00000305151" ixy="0.00000089792" ixz="0.00000000249" iyy="0.00001427978" iyz="-0.00000001191" izz="0.00001264126"/>
    </inertial>
  </link>
  <gazebo reference="r_finger_1_link_3">
    <mu1>1.1</mu1>
    <mu2>1.1</mu2>
  </gazebo>
  <!-- Link proximal actuating hinge -->
  <link name="r_finger_1_link_proximal_actuating_hinge">
    <visual>
      <origin rpy="0 0 0" xyz="0.01429 0 0"/>
      <geometry>
        <box size="0.02858 .0075 .002"/>
      </geometry>
    </visual>
    <collision>
      <origin rpy="0 0 0" xyz="0.01429 0 0"/>
      <geometry>
        <box size="0.02858 .0075 .002"/>
      </geometry>
    </collision>
    <inertial>
      <origin rpy="0 0 0" xyz="0.0012 -0.00162 -0.00161"/>
      <mass value="0.02647"/>
      <inertia ixx="0.00000156447" ixy="0.000000236226" ixz="-0.00000014862" iyy="0.00000221068" iyz="-0.00000014369" izz="0.00000323175"/>
    </inertial>
  </link>
  <gazebo reference="r_finger_1_link_proximal_actuating_hinge">
    <mu1>1.1</mu1>
    <mu2>1.1</mu2>
  </gazebo>
  <!-- Link paraproximal actuating hinge -->
  <link name="r_finger_1_link_paraproximal_actuating_hinge">
    <visual>
      <origin rpy="0 0 0" xyz="0.01143 0 0"/>
      <geometry>
        <box size="0.02286 .0075 .002"/>
      </geometry>
    </visual>
    <collision>
      <origin rpy="0 0 0" xyz="0.01143 0 0"/>
      <geometry>
        <box size="0.02286 .0075 .002"/>
      </geometry>
    </collision>
    <inertial>
      <origin rpy="0 0 0" xyz="0.0064 0 0"/>
      <!-- copied from proximal_actuating_hinge -->
      <mass value="0.00362"/>
      <inertia ixx="0.00000012043" ixy="0" ixz="0" iyy="0.00000053588" iyz="0" izz="0.00000065322"/>
    </inertial>
  </link>
  <gazebo reference="r_finger_1_link_paraproximal_actuating_hinge">
    <mu1>1.1</mu1>
    <mu2>1.1</mu2>
  </gazebo>
  <!-- Link proximal actuating bar -->
  <link name="r_finger_1_link_proximal_actuating_bar">
    <visual>
      <origin rpy="0 0 0" xyz="0.026789 0 0"/>
      <geometry>
        <box size="0.05398 .0075 .002"/>
      </geometry>
    </visual>
    <collision>
      <origin rpy="0 0 0" xyz="0.026789 0 0"/>
      <geometry>
        <box size="0.05398 .0075 .002"/>
      </geometry>
    </collision>
    <inertial>
      <origin rpy="0 0 0" xyz="0.02699 -0.00122 0"/>
      <mass value="0.00659"/>
      <inertia ixx="0.00000008348" ixy="-0.0000002179" ixz="0.00000000134" iyy="0.00000719076" iyz="0" izz="0.00000718272"/>
    </inertial>
  </link>
  <gazebo reference="r_finger_1_link_proximal_actuating_bar">
    <mu1>1.1</mu1>
    <mu2>1.1</mu2>
  </gazebo>
  <!-- Link paraproximal bar -->
  <link name="r_finger_1_link_paraproximal_bar">
    <visual>
      <origin rpy="0 0 0" xyz="0.02885 0 0"/>
      <geometry>
        <box size="0.05770 .0075 .002"/>
      </geometry>
    </visual>
    <collision>
      <origin rpy="0 0 0" xyz="0.02885 0 0"/>
      <geometry>
        <box size="0.05770 .0075 .002"/>
      </geometry>
    </collision>
    <inertial>
      <origin rpy="0 0 0" xyz="0.02858 -0.00129 0"/>
      <mass value="0.00732"/>
      <inertia ixx="0.00000009065" ixy="-0.00000027047" ixz="0.00000000142" iyy="0.00000878034" iyz="0" izz="0.00000877558"/>
    </inertial>
  </link>
  <gazebo reference="r_finger_1_link_paraproximal_bar">
    <mu1>1.1</mu1>
    <mu2>1.1</mu2>
  </gazebo>
  <!-- Link median actuating hinge -->
  <link name="r_finger_1_link_median_actuating_hinge">
    <visual>
      <origin rpy="0 0 0" xyz="0 0 0"/>
      <geometry>
        <box size=".02 .02 .002"/>
      </geometry>
    </visual>
    <collision>
      <origin rpy="0 0 0" xyz="0 0 0"/>
      <geometry>
        <box size=".02 .02 .002"/>
      </geometry>
    </collision>
    <inertial>
      <origin rpy="0 0 0" xyz="0.0092 0.00514 0"/>
      <mass value="0.00359"/>
      <inertia ixx="0.00000024735" ixy="0.00000023619" ixz="0" iyy="0.00000047681" iyz="0" izz="0.00000071813"/>
    </inertial>
  </link>
  <gazebo reference="r_finger_1_link_median_actuating_hinge">
    <mu1>1.1</mu1>
    <mu2>1.1</mu2>
  </gazebo>
  <!-- Link median bar -->
  <link name="r_finger_1_link_median_bar">
    <visual>
      <origin rpy="0 0 0" xyz="0.01905 0 0"/>
      <geometry>
        <box size="0.0381 .0075 .002"/>
      </geometry>
    </visual>
    <collision>
      <origin rpy="0 0 0" xyz="0.01905 0 0"/>
      <geometry>
        <box size="0.0381 .0075 .002"/>
      </geometry>
    </collision>
    <inertial>
      <origin rpy="0 0 0" xyz="0.01905 -0.00107 0"/>
      <mass value="0.00538"/>
      <inertia ixx="0.00000006639" ixy="-0.00000010996" ixz="0.00000000094" iyy="0.00000305318" iyz="0" izz="0.00000304657"/>
    </inertial>
  </link>
  <gazebo reference="r_finger_1_link_median_bar">
    <mu1>1.1</mu1>
    <mu2>1.1</mu2>
  </gazebo>
  <!-- Link paramedian hinge -->
  <link name="r_finger_1_link_paramedian_hinge">
    <visual>
      <origin rpy="0 0 0" xyz="0 0 0"/>
      <geometry>
        <box size=".02 .02 .002"/>
      </geometry>
    </visual>
    <collision>
      <origin rpy="0 0 0" xyz="0 0 0"/>
      <geometry>
        <box size=".02 .02 .002"/>
      </geometry>
    </collision>
    <inertial>
      <origin rpy="0 0 0" xyz="-0.01025 0.00046 0"/>
      <mass value="0.00276"/>
      <inertia ixx="0.00000004213" ixy="-0.00000001491" ixz="0" iyy="0.00000050258" iyz="0" izz="0.00000054007"/>
    </inertial>
  </link>
  <gazebo reference="r_finger_1_link_paramedian_hinge">
    <mu1>1.1</mu1>
    <mu2>1.1</mu2>
  </gazebo>
  <!-- Link median bar underactuated -->
  <link name="r_finger_1_link_median_bar_underactuated">
    <visual>
      <origin rpy="0 0 0" xyz="0.01905 0 0"/>
      <geometry>
        <box size="0.0381 .0075 .002"/>
      </geometry>
    </visual>
    <collision>
      <origin rpy="0 0 0" xyz="0.01905 0 0"/>
      <geometry>
        <box size="0.0381 .0075 .002"/>
      </geometry>
    </collision>
    <inertial>
      <origin rpy="0 0 0" xyz="0.01905 -0.00107 0"/>
      <mass value="0.00538"/>
      <inertia ixx="0.00000006639" ixy="-0.00000010996" ixz="-0.00000000094" iyy="0.00000305318" iyz="0" izz="0.00000304657"/>
    </inertial>
  </link>
  <gazebo reference="r_finger_1_link_median_bar_underactuated">
    <mu1>1.1</mu1>
    <mu2>1.1</mu2>
  </gazebo>
  <!-- Link paradistal hinge -->
  <link name="r_finger_1_link_paradistal_hinge">
    <visual>
      <origin rpy="0 0 0" xyz="0 0 0"/>
      <geometry>
        <box size=".02 .02 .002"/>
      </geometry>
    </visual>
    <collision>
      <origin rpy="0 0 0" xyz="0 0 0"/>
      <geometry>
        <box size=".02 0.02 .002"/>
      </geometry>
    </collision>
    <inertial>
      <origin rpy="0 0 0" xyz="0.00548 0 0"/>
      <mass value="0.00158"/>
      <inertia ixx="0.00000001907" ixy="0" ixz="0" iyy="0.00000010970" iyz="0" izz="0.00000012610"/>
    </inertial>
  </link>
  <gazebo reference="r_finger_1_link_paradistal_hinge">
    <mu1>1.1</mu1>
    <mu2>1.1</mu2>
  </gazebo>
  <!-- End of link list -->
  <!-- Joint list -->
  <!-- Joint proximal actuating hinge -->
  <joint name="r_finger_1_joint_proximal_actuating_hinge" type="revolute">
    <parent link="r_finger_1_link_0"/>
    <child link="r_finger_1_link_proximal_actuating_hinge"/>
    <axis xyz="0 0 1"/>
    <origin rpy="0 0 -2.0906" xyz="0 0 0.01"/>
    <limit effort="100" lower="-3.1416" upper="3.1416" velocity="100"/>
  </joint>
  <gazebo reference="r_finger_1_joint_proximal_actuating_hinge">
    <implicitSpringDamper>1</implicitSpringDamper>
  </gazebo>
  <!-- Joint paraproximal actuating hinge -->
  <joint name="r_finger_1_joint_paraproximal_actuating_hinge" type="revolute">
    <parent link="r_finger_1_link_0"/>
    <child link="r_finger_1_link_paraproximal_actuating_hinge"/>
    <axis xyz="0 0 1"/>
    <origin rpy="0 0 -2.0906" xyz="0 0 -0.01"/>
    <limit effort="100" lower="-3.1416" upper="3.1416" velocity="100"/>
  </joint>
  <gazebo reference="r_finger_1_joint_paraproximal_actuating_hinge">
    <implicitSpringDamper>1</implicitSpringDamper>
  </gazebo>
  <!-- Joint proximal actuating bar -->
  <joint name="r_finger_1_joint_proximal_actuating_bar" type="revolute">
    <parent link="r_finger_1_link_proximal_actuating_hinge"/>
    <child link="r_finger_1_link_proximal_actuating_bar"/>
    <axis xyz="0 0 1"/>
    <origin rpy="0 0 1.8616" xyz="0.02858 0 0"/>
    <limit effort="100" lower="-3.1416" upper="3.1416" velocity="100"/>
  </joint>
  <gazebo reference="r_finger_1_joint_proximal_actuating_bar">
    <implicitSpringDamper>1</implicitSpringDamper>
  </gazebo>
  <!-- Joint paraproximal bar -->
  <joint name="r_finger_1_joint_paraproximal_bar" type="revolute">
    <parent link="r_finger_1_link_paraproximal_actuating_hinge"/>
    <child link="r_finger_1_link_paraproximal_bar"/>
    <axis xyz="0 0 1"/>
    <origin rpy="0 0 1.57" xyz="0.02286 0 0"/>
    <limit effort="100" lower="-3.1416" upper="3.1416" velocity="100"/>
  </joint>
  <gazebo reference="r_finger_1_joint_paraproximal_bar">
    <implicitSpringDamper>1</implicitSpringDamper>
  </gazebo>
  <!-- Joint median actuating hinge -->
  <joint name="r_finger_1_joint_median_actuating_hinge" type="revolute">
    <parent link="r_finger_1_link_1"/>
    <child link="r_finger_1_link_median_actuating_hinge"/>
    <axis xyz="0 0 1"/>
    <origin rpy="0 0 -0.37" xyz="0 0.05715 0.01"/>
    <limit effort="100" lower="-3.1416" upper="3.1416" velocity="100"/>
  </joint>
  <gazebo reference="r_finger_1_joint_median_actuating_hinge">
    <implicitSpringDamper>1</implicitSpringDamper>
  </gazebo>
  <!-- Joint paramedian hinge -->
  <joint name="r_finger_1_joint_paramedian_hinge" type="revolute">
    <parent link="r_finger_1_link_1"/>
    <child link="r_finger_1_link_paramedian_hinge"/>
    <axis xyz="0 0 1"/>
    <!-- -0.37 is hand picked, 0.9719 is hand calculated from atan(0.02381/0.01625) -->
    <origin rpy="0 0 0" xyz="0 0.05715 -0.01"/>
    <limit effort="100" lower="-3.1416" upper="3.1416" velocity="100"/>
  </joint>
  <gazebo reference="r_finger_1_joint_paramedian_hinge">
    <implicitSpringDamper>1</implicitSpringDamper>
  </gazebo>
  <!-- Joint median actuating hinge median bar -->
  <joint name="r_finger_1_joint_median_actuating_hinge_median_bar" type="revolute">
    <parent link="r_finger_1_link_median_actuating_hinge"/>
    <child link="r_finger_1_link_median_bar"/>
    <axis xyz="0 0 1"/>
    <!-- hand calc 90 deg + atan(0.01516/0.01625) -->
    <origin rpy="0 0 2.3215" xyz="0.01625 0.01516 0"/>
    <limit effort="100" lower="-3.1416" upper="3.1416" velocity="100"/>
  </joint>
  <gazebo reference="r_finger_1_joint_median_actuating_hinge_median_bar">
    <implicitSpringDamper>1</implicitSpringDamper>
  </gazebo>
  <!-- Joint paradistal hinge -->
  <joint name="r_finger_1_joint_paradistal_hinge" type="revolute">
    <parent link="r_finger_1_link_2"/>
    <child link="r_finger_1_link_paradistal_hinge"/>
    <axis xyz="0 0 1"/>
    <origin rpy="0 0 0" xyz="0 0.039 -0.01"/>
    <limit effort="100" lower="-3.1416" upper="3.1416" velocity="100"/>
  </joint>
  <gazebo reference="r_finger_1_joint_paradistal_hinge">
    <implicitSpringDamper>1</implicitSpringDamper>
  </gazebo>
  <!-- Joint paramedian hinge median bar underactuated -->
  <joint name="r_finger_1_joint_paramedian_hinge_median_bar_underactuated" type="revolute">
    <parent link="r_finger_1_link_paramedian_hinge"/>
    <child link="r_finger_1_link_median_bar_underactuated"/>
    <axis xyz="0 0 1"/>
    <!-- hand calc 90 deg + atan(0.01227/0.00329) -->
    <origin rpy="0 0 1.5708" xyz="0.01227 0.00329 0"/>
    <limit effort="100" lower="-3.1416" upper="3.1416" velocity="100"/>
  </joint>
  <gazebo reference="r_finger_1_joint_paramedian_hinge_median_bar_underactuated">
    <implicitSpringDamper>1</implicitSpringDamper>
  </gazebo>
  <!-- Joint 1 -->
  <joint name="r_finger_1_joint_1" type="revolute">
    <origin rpy="0 0 -2.0906" xyz="0 0 0"/>
    <axis xyz="0 0 1"/>
    <parent link="r_finger_1_link_0"/>
    <child link="r_finger_1_link_1"/>
    <dynamics damping="1" friction="0"/>
    <!-- Limits: [0deg.,70deg.] -->
    <limit effort="60" lower="0" upper="1.2217" velocity="-1"/>
  </joint>
  <gazebo reference="r_finger_1_joint_1">
    <implicitSpringDamper>1</implicitSpringDamper>
  </gazebo>
  <!-- Joint 2 -->
  <joint name="r_finger_1_joint_2" type="revolute">
    <parent link="r_finger_1_link_1"/>
    <child link="r_finger_1_link_2"/>
    <dynamics damping="1" friction="0"/>
    <axis xyz="0 0 1"/>
    <origin rpy="0 0 0" xyz="0 0.05715 0"/>
    <!-- Limits: [0deg.,90deg.] -->
    <limit effort="60" lower="0" upper="1.5708" velocity="-1"/>
  </joint>
  <gazebo reference="r_finger_1_joint_2">
    <implicitSpringDamper>1</implicitSpringDamper>
  </gazebo>
  <!-- Joint 3 -->
  <joint name="r_finger_1_joint_3" type="revolute">
    <parent link="r_finger_1_link_2"/>
    <child link="r_finger_1_link_3"/>
    <dynamics damping="1" friction="0"/>
    <axis xyz="0 0 1"/>
    <origin rpy="0 0 2.0906" xyz="0 0.039 0"/>
    <!-- Limits: [-38deg.,60deg.] -->
    <limit effort="60" lower="-0.6632" upper="1.0471" velocity="-1"/>
  </joint>
  <gazebo reference="r_finger_1_joint_3">
    <implicitSpringDamper>1</implicitSpringDamper>
  </gazebo>
  <!-- end of joint list -->
  <!-- coupling joints in sdf -->
  <gazebo>
    <joint name="r_finger_1_link_proximal_actuating_bar_median_actuating_hinge_couple" type="revolute">
      <parent>r_finger_1_link_median_actuating_hinge</parent>
      <child>r_finger_1_link_proximal_actuating_bar</child>
      <pose>0.05398 0 0 0 0 0</pose>
      <axis>
        <dynamics>
          <damping>0</damping>
          <friction>0</friction>
        </dynamics>
        <xyz>0 0 1</xyz>
        <!-- <use_parent_model_frame>false</use_parent_model_frame> -->
      </axis>
    </joint>
  </gazebo>
  <gazebo reference="r_finger_1_link_proximal_actuating_bar_median_actuating_hinge_couple">
    <implicitSpringDamper>1</implicitSpringDamper>
  </gazebo>
  <gazebo>
    <joint name="r_finger_1_link_median_bar_link_3_couple" type="revolute">
      <parent>r_finger_1_link_3</parent>
      <child>r_finger_1_link_median_bar</child>
      <pose>0.0381 0 0 0 0 0</pose>
      <axis>
        <dynamics>
          <damping>0</damping>
          <friction>0</friction>
        </dynamics>
        <xyz>0 0 1</xyz>
        <!-- <use_parent_model_frame>false</use_parent_model_frame> -->
      </axis>
    </joint>
  </gazebo>
  <gazebo reference="r_finger_1_link_median_bar_link_3_couple">
    <implicitSpringDamper>1</implicitSpringDamper>
  </gazebo>
  <gazebo>
    <joint name="r_finger_1_link_paramedian_bar_paradistal_hinge_couple" type="revolute">
      <parent>r_finger_1_link_paradistal_hinge</parent>
      <child>r_finger_1_link_median_bar_underactuated</child>
      <pose>0.0381 0 0 0 0 0</pose>
      <axis>
        <dynamics>
          <damping>0</damping>
          <friction>0</friction>
        </dynamics>
        <xyz>0 0 1</xyz>
        <!-- <use_parent_model_frame>false</use_parent_model_frame> -->
      </axis>
    </joint>
  </gazebo>
  <gazebo reference="r_finger_1_link_median_bar_link_3_couple">
    <implicitSpringDamper>1</implicitSpringDamper>
  </gazebo>
  <gazebo>
    <joint name="r_finger_1_link_paradistal_hinge_link_3_couple" type="revolute">
      <parent>r_finger_1_link_paradistal_hinge</parent>
      <child>r_finger_1_link_3</child>
      <pose>0.0381 0 0 0 0 0</pose>
      <axis>
        <dynamics>
          <damping>0</damping>
          <friction>0</friction>
        </dynamics>
        <xyz>0 0 1</xyz>
        <!-- <use_parent_model_frame>false</use_parent_model_frame> -->
      </axis>
    </joint>
  </gazebo>
  <gazebo reference="r_finger_1_link_paradistal_hinge_link_3_couple">
    <implicitSpringDamper>1</implicitSpringDamper>
  </gazebo>
  <gazebo>
    <joint name="r_finger_1_link_paraproximal_bar_paramedian_hinge_couple" type="revolute">
      <parent>r_finger_1_link_paramedian_hinge</parent>
      <child>r_finger_1_link_paraproximal_bar</child>
      <pose>0.05770 0 0 0 0 0</pose>
      <axis>
        <dynamics>
          <damping>0</damping>
          <friction>0</friction>
        </dynamics>
        <xyz>0 0 1</xyz>
        <!-- <use_parent_model_frame>false</use_parent_model_frame> -->
      </axis>
    </joint>
  </gazebo>
  <gazebo reference="r_finger_1_link_paraproximal_bar_paramedian_hinge_couple">
    <implicitSpringDamper>1</implicitSpringDamper>
  </gazebo>
  <!-- Link list -->
  <!-- Link 0 -->
  <link name="r_finger_2_link_0">
    <visual>
      <origin rpy="0 0 0" xyz="0 0 0"/>
      <geometry>
        <mesh filename="package://robotiq_hand_description/meshes/s-model_articulated/visual/link_0.STL"/>
      </geometry>
      <material name="black"><color rgba="0 0 0 1" /></material>
    </visual>
    <collision>
      <origin rpy="0 0 0" xyz="0 0 0"/>
      <geometry>
        <mesh filename="package://robotiq_hand_description/meshes/s-model_articulated/collision/link_0.STL"/>
      </geometry>
      <material name="yellow">
        <color rgba="0 1 1 1"/>
      </material>
    </collision>
    <inertial>
      <mass value="0.1"/>
      <origin xyz="-0.01 0 0"/>
      <inertia ixx="0.000018" ixy="0" ixz="0" iyy="0.000025" iyz="0" izz="0.000025"/>
    </inertial>
  </link>
  <gazebo reference="r_finger_2_link_0">
    <mu1>1.1</mu1>
    <mu2>1.1</mu2>
  </gazebo>
  <!-- Link 1 -->
  <link name="r_finger_2_link_1">
    <visual>
      <origin rpy="0 0 1.5708" xyz="0 0.05717 0"/>
      <geometry>
        <mesh filename="package://robotiq_hand_description/meshes/s-model_articulated/visual/link_1.STL"/>
      </geometry>
      <material name="Gazebo/LightGrey"><color rgba=".7 .7 .7 1.0" /></material>
    </visual>
    <collision>
      <origin rpy="0 0 1.5708" xyz="0 0.05717 0"/>
      <geometry>
        <mesh filename="package://robotiq_hand_description/meshes/s-model_articulated/collision/link_1.STL"/>
      </geometry>
      <material name="yellow">
        <color rgba="0 1 1 1"/>
      </material>
    </collision>
    <inertial>
      <origin rpy="0 0 1.5708" xyz="0.00053 0.03218 0"/>
      <mass value="0.047"/>
      <inertia ixx="0.00000499332" ixy="0.00000091312" ixz="-0.00000000120" iyy="0.00006434531" iyz="-0.00000000007" izz="0.00006061917"/>
    </inertial>
  </link>
  <gazebo reference="r_finger_2_link_1">
    <mu1>1.1</mu1>
    <mu2>1.1</mu2>
  </gazebo>
  <!-- Link 2 -->
  <link name="r_finger_2_link_2">
    <visual>
      <origin rpy="0 0 1.5708" xyz="0 0.03810 0.0075"/>
      <geometry>
        <mesh filename="package://robotiq_hand_description/meshes/s-model_articulated/visual/link_2.STL"/>
      </geometry>
      <material name="Gazebo/LightGrey"><color rgba=".7 .7 .7 1.0" /></material>
    </visual>
    <collision>
      <origin rpy="0 0 1.5708" xyz="0 0.03810 0.0075"/>
      <geometry>
        <mesh filename="package://robotiq_hand_description/meshes/s-model_articulated/collision/link_2.STL"/>
      </geometry>
      <material name="yellow"><color rgba="1 1 0 1" /></material>
    </collision>
    <inertial>
      <origin rpy="0 0 1.5708" xyz="0.00048 0.02167 0.00018"/>
      <mass value="0.03284"/>
      <inertia ixx="0.00000348008" ixy="0.00000031940" ixz="0.00000013041" iyy="0.00002248123" iyz="0.00000000291" izz="0.00001986346"/>
    </inertial>
  </link>
  <gazebo reference="r_finger_2_link_2">
    <mu1>1.1</mu1>
    <mu2>1.1</mu2>
  </gazebo>
  <!-- Link 3 -->
  <link name="r_finger_2_link_3">
    <visual>
      <origin rpy="0 0 0" xyz="0 0 0"/>
      <geometry>
        <mesh filename="package://robotiq_hand_description/meshes/s-model_articulated/visual/link_3.STL"/>
      </geometry>
      <material name="Gazebo/LightGrey"><color rgba=".7 .7 .7 1.0" /></material>
    </visual>
    <collision>
      <origin rpy="0 0 0" xyz="0 0 0"/>
      <geometry>
        <mesh filename="package://robotiq_hand_description/meshes/s-model_articulated/collision/link_3.STL"/>
      </geometry>
      <material name="yellow"><color rgba="1 1 0 1" /></material>
    </collision>
    <inertial>
      <origin rpy="0 0 0" xyz="0.01626 0.00049 0.0002"/>
      <mass value="0.03354"/>
      <inertia ixx="0.00000305151" ixy="0.00000089792" ixz="0.00000000249" iyy="0.00001427978" iyz="-0.00000001191" izz="0.00001264126"/>
    </inertial>
  </link>
  <gazebo reference="r_finger_2_link_3">
    <mu1>1.1</mu1>
    <mu2>1.1</mu2>
  </gazebo>
  <!-- Link proximal actuating hinge -->
  <link name="r_finger_2_link_proximal_actuating_hinge">
    <visual>
      <origin rpy="0 0 0" xyz="0.01429 0 0"/>
      <geometry>
        <box size="0.02858 .0075 .002"/>
      </geometry>
    </visual>
    <collision>
      <origin rpy="0 0 0" xyz="0.01429 0 0"/>
      <geometry>
        <box size="0.02858 .0075 .002"/>
      </geometry>
    </collision>
    <inertial>
      <origin rpy="0 0 0" xyz="0.0012 -0.00162 -0.00161"/>
      <mass value="0.02647"/>
      <inertia ixx="0.00000156447" ixy="0.000000236226" ixz="-0.00000014862" iyy="0.00000221068" iyz="-0.00000014369" izz="0.00000323175"/>
    </inertial>
  </link>
  <gazebo reference="r_finger_2_link_proximal_actuating_hinge">
    <mu1>1.1</mu1>
    <mu2>1.1</mu2>
  </gazebo>
  <!-- Link paraproximal actuating hinge -->
  <link name="r_finger_2_link_paraproximal_actuating_hinge">
    <visual>
      <origin rpy="0 0 0" xyz="0.01143 0 0"/>
      <geometry>
        <box size="0.02286 .0075 .002"/>
      </geometry>
    </visual>
    <collision>
      <origin rpy="0 0 0" xyz="0.01143 0 0"/>
      <geometry>
        <box size="0.02286 .0075 .002"/>
      </geometry>
    </collision>
    <inertial>
      <origin rpy="0 0 0" xyz="0.0064 0 0"/>
      <!-- copied from proximal_actuating_hinge -->
      <mass value="0.00362"/>
      <inertia ixx="0.00000012043" ixy="0" ixz="0" iyy="0.00000053588" iyz="0" izz="0.00000065322"/>
    </inertial>
  </link>
  <gazebo reference="r_finger_2_link_paraproximal_actuating_hinge">
    <mu1>1.1</mu1>
    <mu2>1.1</mu2>
  </gazebo>
  <!-- Link proximal actuating bar -->
  <link name="r_finger_2_link_proximal_actuating_bar">
    <visual>
      <origin rpy="0 0 0" xyz="0.026789 0 0"/>
      <geometry>
        <box size="0.05398 .0075 .002"/>
      </geometry>
    </visual>
    <collision>
      <origin rpy="0 0 0" xyz="0.026789 0 0"/>
      <geometry>
        <box size="0.05398 .0075 .002"/>
      </geometry>
    </collision>
    <inertial>
      <origin rpy="0 0 0" xyz="0.02699 -0.00122 0"/>
      <mass value="0.00659"/>
      <inertia ixx="0.00000008348" ixy="-0.0000002179" ixz="0.00000000134" iyy="0.00000719076" iyz="0" izz="0.00000718272"/>
    </inertial>
  </link>
  <gazebo reference="r_finger_2_link_proximal_actuating_bar">
    <mu1>1.1</mu1>
    <mu2>1.1</mu2>
  </gazebo>
  <!-- Link paraproximal bar -->
  <link name="r_finger_2_link_paraproximal_bar">
    <visual>
      <origin rpy="0 0 0" xyz="0.02885 0 0"/>
      <geometry>
        <box size="0.05770 .0075 .002"/>
      </geometry>
    </visual>
    <collision>
      <origin rpy="0 0 0" xyz="0.02885 0 0"/>
      <geometry>
        <box size="0.05770 .0075 .002"/>
      </geometry>
    </collision>
    <inertial>
      <origin rpy="0 0 0" xyz="0.02858 -0.00129 0"/>
      <mass value="0.00732"/>
      <inertia ixx="0.00000009065" ixy="-0.00000027047" ixz="0.00000000142" iyy="0.00000878034" iyz="0" izz="0.00000877558"/>
    </inertial>
  </link>
  <gazebo reference="r_finger_2_link_paraproximal_bar">
    <mu1>1.1</mu1>
    <mu2>1.1</mu2>
  </gazebo>
  <!-- Link median actuating hinge -->
  <link name="r_finger_2_link_median_actuating_hinge">
    <visual>
      <origin rpy="0 0 0" xyz="0 0 0"/>
      <geometry>
        <box size=".02 .02 .002"/>
      </geometry>
    </visual>
    <collision>
      <origin rpy="0 0 0" xyz="0 0 0"/>
      <geometry>
        <box size=".02 .02 .002"/>
      </geometry>
    </collision>
    <inertial>
      <origin rpy="0 0 0" xyz="0.0092 0.00514 0"/>
      <mass value="0.00359"/>
      <inertia ixx="0.00000024735" ixy="0.00000023619" ixz="0" iyy="0.00000047681" iyz="0" izz="0.00000071813"/>
    </inertial>
  </link>
  <gazebo reference="r_finger_2_link_median_actuating_hinge">
    <mu1>1.1</mu1>
    <mu2>1.1</mu2>
  </gazebo>
  <!-- Link median bar -->
  <link name="r_finger_2_link_median_bar">
    <visual>
      <origin rpy="0 0 0" xyz="0.01905 0 0"/>
      <geometry>
        <box size="0.0381 .0075 .002"/>
      </geometry>
    </visual>
    <collision>
      <origin rpy="0 0 0" xyz="0.01905 0 0"/>
      <geometry>
        <box size="0.0381 .0075 .002"/>
      </geometry>
    </collision>
    <inertial>
      <origin rpy="0 0 0" xyz="0.01905 -0.00107 0"/>
      <mass value="0.00538"/>
      <inertia ixx="0.00000006639" ixy="-0.00000010996" ixz="0.00000000094" iyy="0.00000305318" iyz="0" izz="0.00000304657"/>
    </inertial>
  </link>
  <gazebo reference="r_finger_2_link_median_bar">
    <mu1>1.1</mu1>
    <mu2>1.1</mu2>
  </gazebo>
  <!-- Link paramedian hinge -->
  <link name="r_finger_2_link_paramedian_hinge">
    <visual>
      <origin rpy="0 0 0" xyz="0 0 0"/>
      <geometry>
        <box size=".02 .02 .002"/>
      </geometry>
    </visual>
    <collision>
      <origin rpy="0 0 0" xyz="0 0 0"/>
      <geometry>
        <box size=".02 .02 .002"/>
      </geometry>
    </collision>
    <inertial>
      <origin rpy="0 0 0" xyz="-0.01025 0.00046 0"/>
      <mass value="0.00276"/>
      <inertia ixx="0.00000004213" ixy="-0.00000001491" ixz="0" iyy="0.00000050258" iyz="0" izz="0.00000054007"/>
    </inertial>
  </link>
  <gazebo reference="r_finger_2_link_paramedian_hinge">
    <mu1>1.1</mu1>
    <mu2>1.1</mu2>
  </gazebo>
  <!-- Link median bar underactuated -->
  <link name="r_finger_2_link_median_bar_underactuated">
    <visual>
      <origin rpy="0 0 0" xyz="0.01905 0 0"/>
      <geometry>
        <box size="0.0381 .0075 .002"/>
      </geometry>
    </visual>
    <collision>
      <origin rpy="0 0 0" xyz="0.01905 0 0"/>
      <geometry>
        <box size="0.0381 .0075 .002"/>
      </geometry>
    </collision>
    <inertial>
      <origin rpy="0 0 0" xyz="0.01905 -0.00107 0"/>
      <mass value="0.00538"/>
      <inertia ixx="0.00000006639" ixy="-0.00000010996" ixz="-0.00000000094" iyy="0.00000305318" iyz="0" izz="0.00000304657"/>
    </inertial>
  </link>
  <gazebo reference="r_finger_2_link_median_bar_underactuated">
    <mu1>1.1</mu1>
    <mu2>1.1</mu2>
  </gazebo>
  <!-- Link paradistal hinge -->
  <link name="r_finger_2_link_paradistal_hinge">
    <visual>
      <origin rpy="0 0 0" xyz="0 0 0"/>
      <geometry>
        <box size=".02 .02 .002"/>
      </geometry>
    </visual>
    <collision>
      <origin rpy="0 0 0" xyz="0 0 0"/>
      <geometry>
        <box size=".02 0.02 .002"/>
      </geometry>
    </collision>
    <inertial>
      <origin rpy="0 0 0" xyz="0.00548 0 0"/>
      <mass value="0.00158"/>
      <inertia ixx="0.00000001907" ixy="0" ixz="0" iyy="0.00000010970" iyz="0" izz="0.00000012610"/>
    </inertial>
  </link>
  <gazebo reference="r_finger_2_link_paradistal_hinge">
    <mu1>1.1</mu1>
    <mu2>1.1</mu2>
  </gazebo>
  <!-- End of link list -->
  <!-- Joint list -->
  <!-- Joint proximal actuating hinge -->
  <joint name="r_finger_2_joint_proximal_actuating_hinge" type="revolute">
    <parent link="r_finger_2_link_0"/>
    <child link="r_finger_2_link_proximal_actuating_hinge"/>
    <axis xyz="0 0 1"/>
    <origin rpy="0 0 -2.0906" xyz="0 0 0.01"/>
    <limit effort="100" lower="-3.1416" upper="3.1416" velocity="100"/>
  </joint>
  <gazebo reference="r_finger_2_joint_proximal_actuating_hinge">
    <implicitSpringDamper>1</implicitSpringDamper>
  </gazebo>
  <!-- Joint paraproximal actuating hinge -->
  <joint name="r_finger_2_joint_paraproximal_actuating_hinge" type="revolute">
    <parent link="r_finger_2_link_0"/>
    <child link="r_finger_2_link_paraproximal_actuating_hinge"/>
    <axis xyz="0 0 1"/>
    <origin rpy="0 0 -2.0906" xyz="0 0 -0.01"/>
    <limit effort="100" lower="-3.1416" upper="3.1416" velocity="100"/>
  </joint>
  <gazebo reference="r_finger_2_joint_paraproximal_actuating_hinge">
    <implicitSpringDamper>1</implicitSpringDamper>
  </gazebo>
  <!-- Joint proximal actuating bar -->
  <joint name="r_finger_2_joint_proximal_actuating_bar" type="revolute">
    <parent link="r_finger_2_link_proximal_actuating_hinge"/>
    <child link="r_finger_2_link_proximal_actuating_bar"/>
    <axis xyz="0 0 1"/>
    <origin rpy="0 0 1.8616" xyz="0.02858 0 0"/>
    <limit effort="100" lower="-3.1416" upper="3.1416" velocity="100"/>
  </joint>
  <gazebo reference="r_finger_2_joint_proximal_actuating_bar">
    <implicitSpringDamper>1</implicitSpringDamper>
  </gazebo>
  <!-- Joint paraproximal bar -->
  <joint name="r_finger_2_joint_paraproximal_bar" type="revolute">
    <parent link="r_finger_2_link_paraproximal_actuating_hinge"/>
    <child link="r_finger_2_link_paraproximal_bar"/>
    <axis xyz="0 0 1"/>
    <origin rpy="0 0 1.57" xyz="0.02286 0 0"/>
    <limit effort="100" lower="-3.1416" upper="3.1416" velocity="100"/>
  </joint>
  <gazebo reference="r_finger_2_joint_paraproximal_bar">
    <implicitSpringDamper>1</implicitSpringDamper>
  </gazebo>
  <!-- Joint median actuating hinge -->
  <joint name="r_finger_2_joint_median_actuating_hinge" type="revolute">
    <parent link="r_finger_2_link_1"/>
    <child link="r_finger_2_link_median_actuating_hinge"/>
    <axis xyz="0 0 1"/>
    <origin rpy="0 0 -0.37" xyz="0 0.05715 0.01"/>
    <limit effort="100" lower="-3.1416" upper="3.1416" velocity="100"/>
  </joint>
  <gazebo reference="r_finger_2_joint_median_actuating_hinge">
    <implicitSpringDamper>1</implicitSpringDamper>
  </gazebo>
  <!-- Joint paramedian hinge -->
  <joint name="r_finger_2_joint_paramedian_hinge" type="revolute">
    <parent link="r_finger_2_link_1"/>
    <child link="r_finger_2_link_paramedian_hinge"/>
    <axis xyz="0 0 1"/>
    <!-- -0.37 is hand picked, 0.9719 is hand calculated from atan(0.02381/0.01625) -->
    <origin rpy="0 0 0" xyz="0 0.05715 -0.01"/>
    <limit effort="100" lower="-3.1416" upper="3.1416" velocity="100"/>
  </joint>
  <gazebo reference="r_finger_2_joint_paramedian_hinge">
    <implicitSpringDamper>1</implicitSpringDamper>
  </gazebo>
  <!-- Joint median actuating hinge median bar -->
  <joint name="r_finger_2_joint_median_actuating_hinge_median_bar" type="revolute">
    <parent link="r_finger_2_link_median_actuating_hinge"/>
    <child link="r_finger_2_link_median_bar"/>
    <axis xyz="0 0 1"/>
    <!-- hand calc 90 deg + atan(0.01516/0.01625) -->
    <origin rpy="0 0 2.3215" xyz="0.01625 0.01516 0"/>
    <limit effort="100" lower="-3.1416" upper="3.1416" velocity="100"/>
  </joint>
  <gazebo reference="r_finger_2_joint_median_actuating_hinge_median_bar">
    <implicitSpringDamper>1</implicitSpringDamper>
  </gazebo>
  <!-- Joint paradistal hinge -->
  <joint name="r_finger_2_joint_paradistal_hinge" type="revolute">
    <parent link="r_finger_2_link_2"/>
    <child link="r_finger_2_link_paradistal_hinge"/>
    <axis xyz="0 0 1"/>
    <origin rpy="0 0 0" xyz="0 0.039 -0.01"/>
    <limit effort="100" lower="-3.1416" upper="3.1416" velocity="100"/>
  </joint>
  <gazebo reference="r_finger_2_joint_paradistal_hinge">
    <implicitSpringDamper>1</implicitSpringDamper>
  </gazebo>
  <!-- Joint paramedian hinge median bar underactuated -->
  <joint name="r_finger_2_joint_paramedian_hinge_median_bar_underactuated" type="revolute">
    <parent link="r_finger_2_link_paramedian_hinge"/>
    <child link="r_finger_2_link_median_bar_underactuated"/>
    <axis xyz="0 0 1"/>
    <!-- hand calc 90 deg + atan(0.01227/0.00329) -->
    <origin rpy="0 0 1.5708" xyz="0.01227 0.00329 0"/>
    <limit effort="100" lower="-3.1416" upper="3.1416" velocity="100"/>
  </joint>
  <gazebo reference="r_finger_2_joint_paramedian_hinge_median_bar_underactuated">
    <implicitSpringDamper>1</implicitSpringDamper>
  </gazebo>
  <!-- Joint 1 -->
  <joint name="r_finger_2_joint_1" type="revolute">
    <origin rpy="0 0 -2.0906" xyz="0 0 0"/>
    <axis xyz="0 0 1"/>
    <parent link="r_finger_2_link_0"/>
    <child link="r_finger_2_link_1"/>
    <dynamics damping="1" friction="0"/>
    <!-- Limits: [0deg.,70deg.] -->
    <limit effort="60" lower="0" upper="1.2217" velocity="-1"/>
  </joint>
  <gazebo reference="r_finger_2_joint_1">
    <implicitSpringDamper>1</implicitSpringDamper>
  </gazebo>
  <!-- Joint 2 -->
  <joint name="r_finger_2_joint_2" type="revolute">
    <parent link="r_finger_2_link_1"/>
    <child link="r_finger_2_link_2"/>
    <dynamics damping="1" friction="0"/>
    <axis xyz="0 0 1"/>
    <origin rpy="0 0 0" xyz="0 0.05715 0"/>
    <!-- Limits: [0deg.,90deg.] -->
    <limit effort="60" lower="0" upper="1.5708" velocity="-1"/>
  </joint>
  <gazebo reference="r_finger_2_joint_2">
    <implicitSpringDamper>1</implicitSpringDamper>
  </gazebo>
  <!-- Joint 3 -->
  <joint name="r_finger_2_joint_3" type="revolute">
    <parent link="r_finger_2_link_2"/>
    <child link="r_finger_2_link_3"/>
    <dynamics damping="1" friction="0"/>
    <axis xyz="0 0 1"/>
    <origin rpy="0 0 2.0906" xyz="0 0.039 0"/>
    <!-- Limits: [-38deg.,60deg.] -->
    <limit effort="60" lower="-0.6632" upper="1.0471" velocity="-1"/>
  </joint>
  <gazebo reference="r_finger_2_joint_3">
    <implicitSpringDamper>1</implicitSpringDamper>
  </gazebo>
  <!-- end of joint list -->
  <!-- coupling joints in sdf -->
  <gazebo>
    <joint name="r_finger_2_link_proximal_actuating_bar_median_actuating_hinge_couple" type="revolute">
      <parent>r_finger_2_link_median_actuating_hinge</parent>
      <child>r_finger_2_link_proximal_actuating_bar</child>
      <pose>0.05398 0 0 0 0 0</pose>
      <axis>
        <dynamics>
          <damping>0</damping>
          <friction>0</friction>
        </dynamics>
        <xyz>0 0 1</xyz>
        <!-- <use_parent_model_frame>false</use_parent_model_frame> -->
      </axis>
    </joint>
  </gazebo>
  <gazebo reference="r_finger_2_link_proximal_actuating_bar_median_actuating_hinge_couple">
    <implicitSpringDamper>1</implicitSpringDamper>
  </gazebo>
  <gazebo>
    <joint name="r_finger_2_link_median_bar_link_3_couple" type="revolute">
      <parent>r_finger_2_link_3</parent>
      <child>r_finger_2_link_median_bar</child>
      <pose>0.0381 0 0 0 0 0</pose>
      <axis>
        <dynamics>
          <damping>0</damping>
          <friction>0</friction>
        </dynamics>
        <xyz>0 0 1</xyz>
        <!-- <use_parent_model_frame>false</use_parent_model_frame> -->
      </axis>
    </joint>
  </gazebo>
  <gazebo reference="r_finger_2_link_median_bar_link_3_couple">
    <implicitSpringDamper>1</implicitSpringDamper>
  </gazebo>
  <gazebo>
    <joint name="r_finger_2_link_paramedian_bar_paradistal_hinge_couple" type="revolute">
      <parent>r_finger_2_link_paradistal_hinge</parent>
      <child>r_finger_2_link_median_bar_underactuated</child>
      <pose>0.0381 0 0 0 0 0</pose>
      <axis>
        <dynamics>
          <damping>0</damping>
          <friction>0</friction>
        </dynamics>
        <xyz>0 0 1</xyz>
        <!-- <use_parent_model_frame>false</use_parent_model_frame> -->
      </axis>
    </joint>
  </gazebo>
  <gazebo reference="r_finger_2_link_median_bar_link_3_couple">
    <implicitSpringDamper>1</implicitSpringDamper>
  </gazebo>
  <gazebo>
    <joint name="r_finger_2_link_paradistal_hinge_link_3_couple" type="revolute">
      <parent>r_finger_2_link_paradistal_hinge</parent>
      <child>r_finger_2_link_3</child>
      <pose>0.0381 0 0 0 0 0</pose>
      <axis>
        <dynamics>
          <damping>0</damping>
          <friction>0</friction>
        </dynamics>
        <xyz>0 0 1</xyz>
        <!-- <use_parent_model_frame>false</use_parent_model_frame> -->
      </axis>
    </joint>
  </gazebo>
  <gazebo reference="r_finger_2_link_paradistal_hinge_link_3_couple">
    <implicitSpringDamper>1</implicitSpringDamper>
  </gazebo>
  <gazebo>
    <joint name="r_finger_2_link_paraproximal_bar_paramedian_hinge_couple" type="revolute">
      <parent>r_finger_2_link_paramedian_hinge</parent>
      <child>r_finger_2_link_paraproximal_bar</child>
      <pose>0.05770 0 0 0 0 0</pose>
      <axis>
        <dynamics>
          <damping>0</damping>
          <friction>0</friction>
        </dynamics>
        <xyz>0 0 1</xyz>
        <!-- <use_parent_model_frame>false</use_parent_model_frame> -->
      </axis>
    </joint>
  </gazebo>
  <gazebo reference="r_finger_2_link_paraproximal_bar_paramedian_hinge_couple">
    <implicitSpringDamper>1</implicitSpringDamper>
  </gazebo>
  <!-- Link list -->
  <!-- Link 0 -->
  <link name="r_finger_middle_link_0">
    <visual>
      <origin rpy="0 0 0" xyz="0 0 0"/>
      <geometry>
        <mesh filename="package://robotiq_hand_description/meshes/s-model_articulated/visual/link_0.STL"/>
      </geometry>
      <material name="black"><color rgba="0 0 0 1" /></material>
    </visual>
    <collision>
      <origin rpy="0 0 0" xyz="0 0 0"/>
      <geometry>
        <mesh filename="package://robotiq_hand_description/meshes/s-model_articulated/collision/link_0.STL"/>
      </geometry>
      <material name="yellow">
        <color rgba="0 1 1 1"/>
      </material>
    </collision>
    <inertial>
      <mass value="0.1"/>
      <origin xyz="-0.01 0 0"/>
      <inertia ixx="0.000018" ixy="0" ixz="0" iyy="0.000025" iyz="0" izz="0.000025"/>
    </inertial>
  </link>
  <gazebo reference="r_finger_middle_link_0">
    <mu1>1.1</mu1>
    <mu2>1.1</mu2>
  </gazebo>
  <!-- Link 1 -->
  <link name="r_finger_middle_link_1">
    <visual>
      <origin rpy="0 0 1.5708" xyz="0 0.05717 0"/>
      <geometry>
        <mesh filename="package://robotiq_hand_description/meshes/s-model_articulated/visual/link_1.STL"/>
      </geometry>
      <material name="Gazebo/LightGrey"><color rgba=".7 .7 .7 1.0" /></material>
    </visual>
    <collision>
      <origin rpy="0 0 1.5708" xyz="0 0.05717 0"/>
      <geometry>
        <mesh filename="package://robotiq_hand_description/meshes/s-model_articulated/collision/link_1.STL"/>
      </geometry>
      <material name="yellow">
        <color rgba="0 1 1 1"/>
      </material>
    </collision>
    <inertial>
      <origin rpy="0 0 1.5708" xyz="0.00053 0.03218 0"/>
      <mass value="0.047"/>
      <inertia ixx="0.00000499332" ixy="0.00000091312" ixz="-0.00000000120" iyy="0.00006434531" iyz="-0.00000000007" izz="0.00006061917"/>
    </inertial>
  </link>
  <gazebo reference="r_finger_middle_link_1">
    <mu1>1.1</mu1>
    <mu2>1.1</mu2>
  </gazebo>
  <!-- Link 2 -->
  <link name="r_finger_middle_link_2">
    <visual>
      <origin rpy="0 0 1.5708" xyz="0 0.03810 0.0075"/>
      <geometry>
        <mesh filename="package://robotiq_hand_description/meshes/s-model_articulated/visual/link_2.STL"/>
      </geometry>
      <material name="Gazebo/LightGrey"><color rgba=".7 .7 .7 1.0" /></material>
    </visual>
    <collision>
      <origin rpy="0 0 1.5708" xyz="0 0.03810 0.0075"/>
      <geometry>
        <mesh filename="package://robotiq_hand_description/meshes/s-model_articulated/collision/link_2.STL"/>
      </geometry>
      <material name="yellow"><color rgba="1 1 0 1" /></material>
    </collision>
    <inertial>
      <origin rpy="0 0 1.5708" xyz="0.00048 0.02167 0.00018"/>
      <mass value="0.03284"/>
      <inertia ixx="0.00000348008" ixy="0.00000031940" ixz="0.00000013041" iyy="0.00002248123" iyz="0.00000000291" izz="0.00001986346"/>
    </inertial>
  </link>
  <gazebo reference="r_finger_middle_link_2">
    <mu1>1.1</mu1>
    <mu2>1.1</mu2>
  </gazebo>
  <!-- Link 3 -->
  <link name="r_finger_middle_link_3">
    <visual>
      <origin rpy="0 0 0" xyz="0 0 0"/>
      <geometry>
        <mesh filename="package://robotiq_hand_description/meshes/s-model_articulated/visual/link_3.STL"/>
      </geometry>
      <material name="Gazebo/LightGrey"><color rgba=".7 .7 .7 1.0" /></material>
    </visual>
    <collision>
      <origin rpy="0 0 0" xyz="0 0 0"/>
      <geometry>
        <mesh filename="package://robotiq_hand_description/meshes/s-model_articulated/collision/link_3.STL"/>
      </geometry>
      <material name="yellow"><color rgba="1 1 0 1" /></material>
    </collision>
    <inertial>
      <origin rpy="0 0 0" xyz="0.01626 0.00049 0.0002"/>
      <mass value="0.03354"/>
      <inertia ixx="0.00000305151" ixy="0.00000089792" ixz="0.00000000249" iyy="0.00001427978" iyz="-0.00000001191" izz="0.00001264126"/>
    </inertial>
  </link>
  <gazebo reference="r_finger_middle_link_3">
    <mu1>1.1</mu1>
    <mu2>1.1</mu2>
  </gazebo>
  <!-- Link proximal actuating hinge -->
  <link name="r_finger_middle_link_proximal_actuating_hinge">
    <visual>
      <origin rpy="0 0 0" xyz="0.01429 0 0"/>
      <geometry>
        <box size="0.02858 .0075 .002"/>
      </geometry>
    </visual>
    <collision>
      <origin rpy="0 0 0" xyz="0.01429 0 0"/>
      <geometry>
        <box size="0.02858 .0075 .002"/>
      </geometry>
    </collision>
    <inertial>
      <origin rpy="0 0 0" xyz="0.0012 -0.00162 -0.00161"/>
      <mass value="0.02647"/>
      <inertia ixx="0.00000156447" ixy="0.000000236226" ixz="-0.00000014862" iyy="0.00000221068" iyz="-0.00000014369" izz="0.00000323175"/>
    </inertial>
  </link>
  <gazebo reference="r_finger_middle_link_proximal_actuating_hinge">
    <mu1>1.1</mu1>
    <mu2>1.1</mu2>
  </gazebo>
  <!-- Link paraproximal actuating hinge -->
  <link name="r_finger_middle_link_paraproximal_actuating_hinge">
    <visual>
      <origin rpy="0 0 0" xyz="0.01143 0 0"/>
      <geometry>
        <box size="0.02286 .0075 .002"/>
      </geometry>
    </visual>
    <collision>
      <origin rpy="0 0 0" xyz="0.01143 0 0"/>
      <geometry>
        <box size="0.02286 .0075 .002"/>
      </geometry>
    </collision>
    <inertial>
      <origin rpy="0 0 0" xyz="0.0064 0 0"/>
      <!-- copied from proximal_actuating_hinge -->
      <mass value="0.00362"/>
      <inertia ixx="0.00000012043" ixy="0" ixz="0" iyy="0.00000053588" iyz="0" izz="0.00000065322"/>
    </inertial>
  </link>
  <gazebo reference="r_finger_middle_link_paraproximal_actuating_hinge">
    <mu1>1.1</mu1>
    <mu2>1.1</mu2>
  </gazebo>
  <!-- Link proximal actuating bar -->
  <link name="r_finger_middle_link_proximal_actuating_bar">
    <visual>
      <origin rpy="0 0 0" xyz="0.026789 0 0"/>
      <geometry>
        <box size="0.05398 .0075 .002"/>
      </geometry>
    </visual>
    <collision>
      <origin rpy="0 0 0" xyz="0.026789 0 0"/>
      <geometry>
        <box size="0.05398 .0075 .002"/>
      </geometry>
    </collision>
    <inertial>
      <origin rpy="0 0 0" xyz="0.02699 -0.00122 0"/>
      <mass value="0.00659"/>
      <inertia ixx="0.00000008348" ixy="-0.0000002179" ixz="0.00000000134" iyy="0.00000719076" iyz="0" izz="0.00000718272"/>
    </inertial>
  </link>
  <gazebo reference="r_finger_middle_link_proximal_actuating_bar">
    <mu1>1.1</mu1>
    <mu2>1.1</mu2>
  </gazebo>
  <!-- Link paraproximal bar -->
  <link name="r_finger_middle_link_paraproximal_bar">
    <visual>
      <origin rpy="0 0 0" xyz="0.02885 0 0"/>
      <geometry>
        <box size="0.05770 .0075 .002"/>
      </geometry>
    </visual>
    <collision>
      <origin rpy="0 0 0" xyz="0.02885 0 0"/>
      <geometry>
        <box size="0.05770 .0075 .002"/>
      </geometry>
    </collision>
    <inertial>
      <origin rpy="0 0 0" xyz="0.02858 -0.00129 0"/>
      <mass value="0.00732"/>
      <inertia ixx="0.00000009065" ixy="-0.00000027047" ixz="0.00000000142" iyy="0.00000878034" iyz="0" izz="0.00000877558"/>
    </inertial>
  </link>
  <gazebo reference="r_finger_middle_link_paraproximal_bar">
    <mu1>1.1</mu1>
    <mu2>1.1</mu2>
  </gazebo>
  <!-- Link median actuating hinge -->
  <link name="r_finger_middle_link_median_actuating_hinge">
    <visual>
      <origin rpy="0 0 0" xyz="0 0 0"/>
      <geometry>
        <box size=".02 .02 .002"/>
      </geometry>
    </visual>
    <collision>
      <origin rpy="0 0 0" xyz="0 0 0"/>
      <geometry>
        <box size=".02 .02 .002"/>
      </geometry>
    </collision>
    <inertial>
      <origin rpy="0 0 0" xyz="0.0092 0.00514 0"/>
      <mass value="0.00359"/>
      <inertia ixx="0.00000024735" ixy="0.00000023619" ixz="0" iyy="0.00000047681" iyz="0" izz="0.00000071813"/>
    </inertial>
  </link>
  <gazebo reference="r_finger_middle_link_median_actuating_hinge">
    <mu1>1.1</mu1>
    <mu2>1.1</mu2>
  </gazebo>
  <!-- Link median bar -->
  <link name="r_finger_middle_link_median_bar">
    <visual>
      <origin rpy="0 0 0" xyz="0.01905 0 0"/>
      <geometry>
        <box size="0.0381 .0075 .002"/>
      </geometry>
    </visual>
    <collision>
      <origin rpy="0 0 0" xyz="0.01905 0 0"/>
      <geometry>
        <box size="0.0381 .0075 .002"/>
      </geometry>
    </collision>
    <inertial>
      <origin rpy="0 0 0" xyz="0.01905 -0.00107 0"/>
      <mass value="0.00538"/>
      <inertia ixx="0.00000006639" ixy="-0.00000010996" ixz="0.00000000094" iyy="0.00000305318" iyz="0" izz="0.00000304657"/>
    </inertial>
  </link>
  <gazebo reference="r_finger_middle_link_median_bar">
    <mu1>1.1</mu1>
    <mu2>1.1</mu2>
  </gazebo>
  <!-- Link paramedian hinge -->
  <link name="r_finger_middle_link_paramedian_hinge">
    <visual>
      <origin rpy="0 0 0" xyz="0 0 0"/>
      <geometry>
        <box size=".02 .02 .002"/>
      </geometry>
    </visual>
    <collision>
      <origin rpy="0 0 0" xyz="0 0 0"/>
      <geometry>
        <box size=".02 .02 .002"/>
      </geometry>
    </collision>
    <inertial>
      <origin rpy="0 0 0" xyz="-0.01025 0.00046 0"/>
      <mass value="0.00276"/>
      <inertia ixx="0.00000004213" ixy="-0.00000001491" ixz="0" iyy="0.00000050258" iyz="0" izz="0.00000054007"/>
    </inertial>
  </link>
  <gazebo reference="r_finger_middle_link_paramedian_hinge">
    <mu1>1.1</mu1>
    <mu2>1.1</mu2>
  </gazebo>
  <!-- Link median bar underactuated -->
  <link name="r_finger_middle_link_median_bar_underactuated">
    <visual>
      <origin rpy="0 0 0" xyz="0.01905 0 0"/>
      <geometry>
        <box size="0.0381 .0075 .002"/>
      </geometry>
    </visual>
    <collision>
      <origin rpy="0 0 0" xyz="0.01905 0 0"/>
      <geometry>
        <box size="0.0381 .0075 .002"/>
      </geometry>
    </collision>
    <inertial>
      <origin rpy="0 0 0" xyz="0.01905 -0.00107 0"/>
      <mass value="0.00538"/>
      <inertia ixx="0.00000006639" ixy="-0.00000010996" ixz="-0.00000000094" iyy="0.00000305318" iyz="0" izz="0.00000304657"/>
    </inertial>
  </link>
  <gazebo reference="r_finger_middle_link_median_bar_underactuated">
    <mu1>1.1</mu1>
    <mu2>1.1</mu2>
  </gazebo>
  <!-- Link paradistal hinge -->
  <link name="r_finger_middle_link_paradistal_hinge">
    <visual>
      <origin rpy="0 0 0" xyz="0 0 0"/>
      <geometry>
        <box size=".02 .02 .002"/>
      </geometry>
    </visual>
    <collision>
      <origin rpy="0 0 0" xyz="0 0 0"/>
      <geometry>
        <box size=".02 0.02 .002"/>
      </geometry>
    </collision>
    <inertial>
      <origin rpy="0 0 0" xyz="0.00548 0 0"/>
      <mass value="0.00158"/>
      <inertia ixx="0.00000001907" ixy="0" ixz="0" iyy="0.00000010970" iyz="0" izz="0.00000012610"/>
    </inertial>
  </link>
  <gazebo reference="r_finger_middle_link_paradistal_hinge">
    <mu1>1.1</mu1>
    <mu2>1.1</mu2>
  </gazebo>
  <!-- End of link list -->
  <!-- Joint list -->
  <!-- Joint proximal actuating hinge -->
  <joint name="r_finger_middle_joint_proximal_actuating_hinge" type="revolute">
    <parent link="r_finger_middle_link_0"/>
    <child link="r_finger_middle_link_proximal_actuating_hinge"/>
    <axis xyz="0 0 1"/>
    <origin rpy="0 0 -2.0906" xyz="0 0 0.01"/>
    <limit effort="100" lower="-3.1416" upper="3.1416" velocity="100"/>
  </joint>
  <gazebo reference="r_finger_middle_joint_proximal_actuating_hinge">
    <implicitSpringDamper>1</implicitSpringDamper>
  </gazebo>
  <!-- Joint paraproximal actuating hinge -->
  <joint name="r_finger_middle_joint_paraproximal_actuating_hinge" type="revolute">
    <parent link="r_finger_middle_link_0"/>
    <child link="r_finger_middle_link_paraproximal_actuating_hinge"/>
    <axis xyz="0 0 1"/>
    <origin rpy="0 0 -2.0906" xyz="0 0 -0.01"/>
    <limit effort="100" lower="-3.1416" upper="3.1416" velocity="100"/>
  </joint>
  <gazebo reference="r_finger_middle_joint_paraproximal_actuating_hinge">
    <implicitSpringDamper>1</implicitSpringDamper>
  </gazebo>
  <!-- Joint proximal actuating bar -->
  <joint name="r_finger_middle_joint_proximal_actuating_bar" type="revolute">
    <parent link="r_finger_middle_link_proximal_actuating_hinge"/>
    <child link="r_finger_middle_link_proximal_actuating_bar"/>
    <axis xyz="0 0 1"/>
    <origin rpy="0 0 1.8616" xyz="0.02858 0 0"/>
    <limit effort="100" lower="-3.1416" upper="3.1416" velocity="100"/>
  </joint>
  <gazebo reference="r_finger_middle_joint_proximal_actuating_bar">
    <implicitSpringDamper>1</implicitSpringDamper>
  </gazebo>
  <!-- Joint paraproximal bar -->
  <joint name="r_finger_middle_joint_paraproximal_bar" type="revolute">
    <parent link="r_finger_middle_link_paraproximal_actuating_hinge"/>
    <child link="r_finger_middle_link_paraproximal_bar"/>
    <axis xyz="0 0 1"/>
    <origin rpy="0 0 1.57" xyz="0.02286 0 0"/>
    <limit effort="100" lower="-3.1416" upper="3.1416" velocity="100"/>
  </joint>
  <gazebo reference="r_finger_middle_joint_paraproximal_bar">
    <implicitSpringDamper>1</implicitSpringDamper>
  </gazebo>
  <!-- Joint median actuating hinge -->
  <joint name="r_finger_middle_joint_median_actuating_hinge" type="revolute">
    <parent link="r_finger_middle_link_1"/>
    <child link="r_finger_middle_link_median_actuating_hinge"/>
    <axis xyz="0 0 1"/>
    <origin rpy="0 0 -0.37" xyz="0 0.05715 0.01"/>
    <limit effort="100" lower="-3.1416" upper="3.1416" velocity="100"/>
  </joint>
  <gazebo reference="r_finger_middle_joint_median_actuating_hinge">
    <implicitSpringDamper>1</implicitSpringDamper>
  </gazebo>
  <!-- Joint paramedian hinge -->
  <joint name="r_finger_middle_joint_paramedian_hinge" type="revolute">
    <parent link="r_finger_middle_link_1"/>
    <child link="r_finger_middle_link_paramedian_hinge"/>
    <axis xyz="0 0 1"/>
    <!-- -0.37 is hand picked, 0.9719 is hand calculated from atan(0.02381/0.01625) -->
    <origin rpy="0 0 0" xyz="0 0.05715 -0.01"/>
    <limit effort="100" lower="-3.1416" upper="3.1416" velocity="100"/>
  </joint>
  <gazebo reference="r_finger_middle_joint_paramedian_hinge">
    <implicitSpringDamper>1</implicitSpringDamper>
  </gazebo>
  <!-- Joint median actuating hinge median bar -->
  <joint name="r_finger_middle_joint_median_actuating_hinge_median_bar" type="revolute">
    <parent link="r_finger_middle_link_median_actuating_hinge"/>
    <child link="r_finger_middle_link_median_bar"/>
    <axis xyz="0 0 1"/>
    <!-- hand calc 90 deg + atan(0.01516/0.01625) -->
    <origin rpy="0 0 2.3215" xyz="0.01625 0.01516 0"/>
    <limit effort="100" lower="-3.1416" upper="3.1416" velocity="100"/>
  </joint>
  <gazebo reference="r_finger_middle_joint_median_actuating_hinge_median_bar">
    <implicitSpringDamper>1</implicitSpringDamper>
  </gazebo>
  <!-- Joint paradistal hinge -->
  <joint name="r_finger_middle_joint_paradistal_hinge" type="revolute">
    <parent link="r_finger_middle_link_2"/>
    <child link="r_finger_middle_link_paradistal_hinge"/>
    <axis xyz="0 0 1"/>
    <origin rpy="0 0 0" xyz="0 0.039 -0.01"/>
    <limit effort="100" lower="-3.1416" upper="3.1416" velocity="100"/>
  </joint>
  <gazebo reference="r_finger_middle_joint_paradistal_hinge">
    <implicitSpringDamper>1</implicitSpringDamper>
  </gazebo>
  <!-- Joint paramedian hinge median bar underactuated -->
  <joint name="r_finger_middle_joint_paramedian_hinge_median_bar_underactuated" type="revolute">
    <parent link="r_finger_middle_link_paramedian_hinge"/>
    <child link="r_finger_middle_link_median_bar_underactuated"/>
    <axis xyz="0 0 1"/>
    <!-- hand calc 90 deg + atan(0.01227/0.00329) -->
    <origin rpy="0 0 1.5708" xyz="0.01227 0.00329 0"/>
    <limit effort="100" lower="-3.1416" upper="3.1416" velocity="100"/>
  </joint>
  <gazebo reference="r_finger_middle_joint_paramedian_hinge_median_bar_underactuated">
    <implicitSpringDamper>1</implicitSpringDamper>
  </gazebo>
  <!-- Joint 1 -->
  <joint name="r_finger_middle_joint_1" type="revolute">
    <origin rpy="0 0 -2.0906" xyz="0 0 0"/>
    <axis xyz="0 0 1"/>
    <parent link="r_finger_middle_link_0"/>
    <child link="r_finger_middle_link_1"/>
    <dynamics damping="1" friction="0"/>
    <!-- Limits: [0deg.,70deg.] -->
    <limit effort="60" lower="0" upper="1.2217" velocity="-1"/>
  </joint>
  <gazebo reference="r_finger_middle_joint_1">
    <implicitSpringDamper>1</implicitSpringDamper>
  </gazebo>
  <!-- Joint 2 -->
  <joint name="r_finger_middle_joint_2" type="revolute">
    <parent link="r_finger_middle_link_1"/>
    <child link="r_finger_middle_link_2"/>
    <dynamics damping="1" friction="0"/>
    <axis xyz="0 0 1"/>
    <origin rpy="0 0 0" xyz="0 0.05715 0"/>
    <!-- Limits: [0deg.,90deg.] -->
    <limit effort="60" lower="0" upper="1.5708" velocity="-1"/>
  </joint>
  <gazebo reference="r_finger_middle_joint_2">
    <implicitSpringDamper>1</implicitSpringDamper>
  </gazebo>
  <!-- Joint 3 -->
  <joint name="r_finger_middle_joint_3" type="revolute">
    <parent link="r_finger_middle_link_2"/>
    <child link="r_finger_middle_link_3"/>
    <dynamics damping="1" friction="0"/>
    <axis xyz="0 0 1"/>
    <origin rpy="0 0 2.0906" xyz="0 0.039 0"/>
    <!-- Limits: [-38deg.,60deg.] -->
    <limit effort="60" lower="-0.6632" upper="1.0471" velocity="-1"/>
  </joint>
  <gazebo reference="r_finger_middle_joint_3">
    <implicitSpringDamper>1</implicitSpringDamper>
  </gazebo>
  <!-- end of joint list -->
  <!-- coupling joints in sdf -->
  <gazebo>
    <joint name="r_finger_middle_link_proximal_actuating_bar_median_actuating_hinge_couple" type="revolute">
      <parent>r_finger_middle_link_median_actuating_hinge</parent>
      <child>r_finger_middle_link_proximal_actuating_bar</child>
      <pose>0.05398 0 0 0 0 0</pose>
      <axis>
        <dynamics>
          <damping>0</damping>
          <friction>0</friction>
        </dynamics>
        <xyz>0 0 1</xyz>
        <!-- <use_parent_model_frame>false</use_parent_model_frame> -->
      </axis>
    </joint>
  </gazebo>
  <gazebo reference="r_finger_middle_link_proximal_actuating_bar_median_actuating_hinge_couple">
    <implicitSpringDamper>1</implicitSpringDamper>
  </gazebo>
  <gazebo>
    <joint name="r_finger_middle_link_median_bar_link_3_couple" type="revolute">
      <parent>r_finger_middle_link_3</parent>
      <child>r_finger_middle_link_median_bar</child>
      <pose>0.0381 0 0 0 0 0</pose>
      <axis>
        <dynamics>
          <damping>0</damping>
          <friction>0</friction>
        </dynamics>
        <xyz>0 0 1</xyz>
        <!-- <use_parent_model_frame>false</use_parent_model_frame> -->
      </axis>
    </joint>
  </gazebo>
  <gazebo reference="r_finger_middle_link_median_bar_link_3_couple">
    <implicitSpringDamper>1</implicitSpringDamper>
  </gazebo>
  <gazebo>
    <joint name="r_finger_middle_link_paramedian_bar_paradistal_hinge_couple" type="revolute">
      <parent>r_finger_middle_link_paradistal_hinge</parent>
      <child>r_finger_middle_link_median_bar_underactuated</child>
      <pose>0.0381 0 0 0 0 0</pose>
      <axis>
        <dynamics>
          <damping>0</damping>
          <friction>0</friction>
        </dynamics>
        <xyz>0 0 1</xyz>
        <!-- <use_parent_model_frame>false</use_parent_model_frame> -->
      </axis>
    </joint>
  </gazebo>
  <gazebo reference="r_finger_middle_link_median_bar_link_3_couple">
    <implicitSpringDamper>1</implicitSpringDamper>
  </gazebo>
  <gazebo>
    <joint name="r_finger_middle_link_paradistal_hinge_link_3_couple" type="revolute">
      <parent>r_finger_middle_link_paradistal_hinge</parent>
      <child>r_finger_middle_link_3</child>
      <pose>0.0381 0 0 0 0 0</pose>
      <axis>
        <dynamics>
          <damping>0</damping>
          <friction>0</friction>
        </dynamics>
        <xyz>0 0 1</xyz>
        <!-- <use_parent_model_frame>false</use_parent_model_frame> -->
      </axis>
    </joint>
  </gazebo>
  <gazebo reference="r_finger_middle_link_paradistal_hinge_link_3_couple">
    <implicitSpringDamper>1</implicitSpringDamper>
  </gazebo>
  <gazebo>
    <joint name="r_finger_middle_link_paraproximal_bar_paramedian_hinge_couple" type="revolute">
      <parent>r_finger_middle_link_paramedian_hinge</parent>
      <child>r_finger_middle_link_paraproximal_bar</child>
      <pose>0.05770 0 0 0 0 0</pose>
      <axis>
        <dynamics>
          <damping>0</damping>
          <friction>0</friction>
        </dynamics>
        <xyz>0 0 1</xyz>
        <!-- <use_parent_model_frame>false</use_parent_model_frame> -->
      </axis>
    </joint>
  </gazebo>
  <gazebo reference="r_finger_middle_link_paraproximal_bar_paramedian_hinge_couple">
    <implicitSpringDamper>1</implicitSpringDamper>
  </gazebo>
  <!-- link list -->
  <!-- Link palm -->
  <link name="r_palm">
    <visual>
      <geometry>
        <mesh filename="package://robotiq_hand_description/meshes/s-model_articulated/visual/palm.STL"/>
      </geometry>
      <material name="black"><color rgba="0 0 0 1" /></material>
    </visual>
    <!-- Simple shape collision -->
    <collision>
      <origin rpy="0 0 0" xyz="0 0 0"/>
      <geometry>
        <box size="0.1 0.1 0.1"/>
      </geometry>
      <material name="yellow">
        <color rgba="0 1 1 1"/>
      </material>
    </collision>
    <inertial>
      <origin rpy="0 0 0" xyz="0 0 0"/>
      <mass value="1.3"/>
      <inertia ixx="0.0035" ixy="0" ixz="-0" iyy="0.0035" iyz="0" izz="0.0035"/>
    </inertial>
  </link>
  <gazebo reference="r_palm">
    <mu1>1.1</mu1>
    <mu2>1.1</mu2>
  </gazebo>
  <!-- End of link list -->
  <!-- Joint list -->
  <!-- Joint palm_finger_1_joint -->
  <joint name="r_palm_finger_1_joint" type="revolute">
    <parent link="r_palm"/>
    <child link="r_finger_1_link_0"/>
    <dynamics damping="1" friction="0"/>
    <axis xyz="0 1 0"/>
    <origin rpy="0 3.1416 -1.57" xyz="-0.0455 0.0214 0.036"/>
    <!-- Limits: [-17deg.,17deg.] -->
    <limit effort="60" lower="-0.2967" upper="0.2967" velocity="-1"/>
  </joint>
  <gazebo reference="r_palm_finger_1_joint">
    <implicitSpringDamper>1</implicitSpringDamper>
  </gazebo>
  <!-- Joint palm_finger_2_joint -->
  <joint name="r_palm_finger_2_joint" type="revolute">
    <parent link="r_palm"/>
    <child link="r_finger_2_link_0"/>
    <dynamics damping="1" friction="0"/>
    <axis xyz="0 1 0"/>
    <origin rpy="0 3.1416 -1.57" xyz="-0.0455 0.0214 -0.036"/>
    <!-- Limits: [-17deg.,17deg.] -->
    <limit effort="60" lower="-0.2967" upper="0.2967" velocity="-1"/>
  </joint>
  <gazebo reference="r_palm_finger_2_joint">
    <implicitSpringDamper>1</implicitSpringDamper>
  </gazebo>
  <!-- Joint palm_finger_middle_joint -->
  <joint name="r_palm_finger_middle_joint" type="revolute">
    <parent link="r_palm"/>
    <child link="r_finger_middle_link_0"/>
    <dynamics damping="1" friction="0"/>
    <axis xyz="0 1 0"/>
    <origin rpy="0 0 1.57" xyz="0.0455 0.0214 0"/>
    <limit effort="60" lower="0" upper="0" velocity="-1"/>
  </joint>
  <gazebo reference="r_palm_finger_middle_joint">
    <implicitSpringDamper>1</implicitSpringDamper>
  </gazebo>
  <!-- end of joint list -->
  <!-- Join left arm to top plate -->
  <joint name="r_ur5_arm_base" type="fixed">
    <parent link="dual_arm_bulkhead_link"/>
    <child link="r_ur5_arm_base_link"/>
    <origin rpy="0 0.785 -1.57" xyz="0.125 -0.15 0.135"/>
  </joint>
  <!-- Joint right arm to top plate -->
  <joint name="l_ur5_arm_base" type="fixed">
    <parent link="dual_arm_bulkhead_link"/>
    <child link="l_ur5_arm_base_link"/>
    <origin rpy="0 -0.785 -1.57" xyz="0.125 0.15 0.135"/>
  </joint>

  <!-- Director Requirement: Add virtual palm link -->
  <link name="left_palm" />
  <joint name="l_palm_to_left_palm_fixed_joint" type="fixed">
    <parent link="l_palm"/>
    <child link="left_palm"/>
    <origin rpy="0 0 0" xyz="0 0 0"/>
  </joint>
  <link name="right_palm" />
  <joint name="r_palm_to_right_palm_fixed_joint" type="fixed">
    <parent link="r_palm"/>
    <child link="right_palm"/>
    <origin rpy="0 0 0" xyz="0 0 0"/>
  </joint>
</robot>
